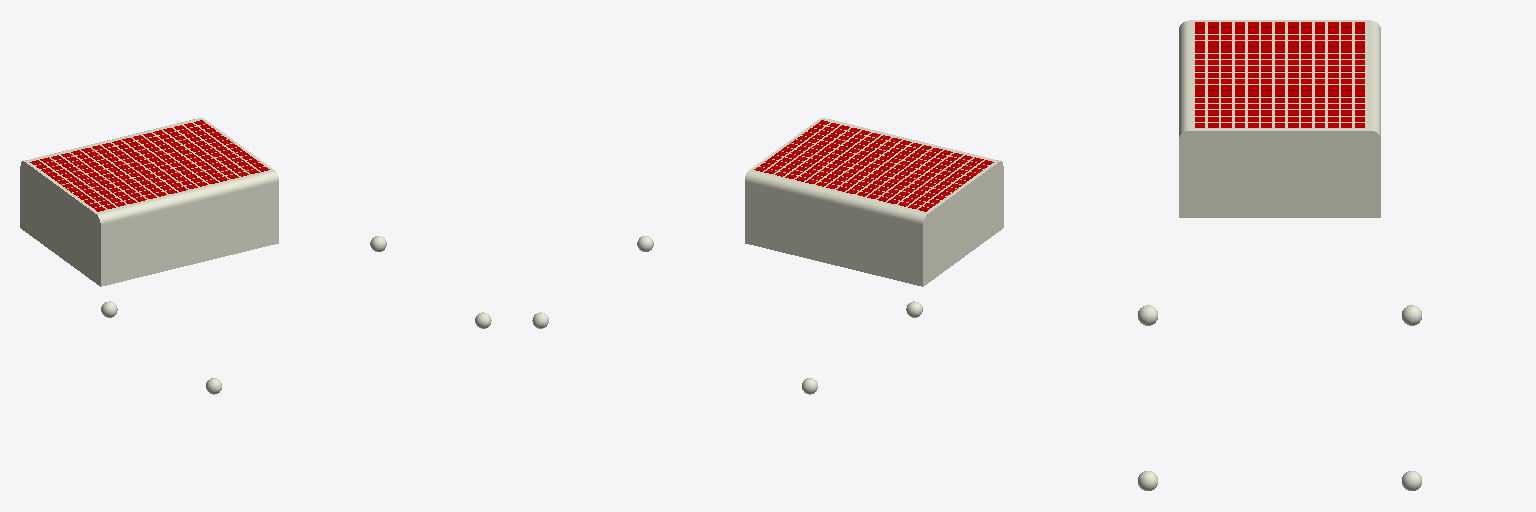
--- Render facts (derived) ---
The picture shows the robot from 3 angles, left to right: view 1: azimuth 30°, elevation 25°; view 2: azimuth 150°, elevation 25°; view 3: azimuth 270°, elevation 25°; orthographic projection.
Model locotouch with 254 links and 253 joints (12 revolute, 241 fixed), rooted at trunk, posed joints at zero except 4 at the middle of their limits (a_FR_calf_joint = -1.85, b_FL_calf_joint = -1.85, c_RR_calf_joint = -1.85, d_RL_calf_joint = -1.85).
Links seen in each view (by area): view 1: back_mid, back, right_cylinder; view 2: back_mid, back, left_cylinder; view 3: back_mid, back, left_cylinder, right_cylinder.
Link boxes in pixels (x1=…): back_mid: x1=20, y1=166, x2=278, y2=286; back: x1=25, y1=118, x2=274, y2=220; right_cylinder: x1=93, y1=171, x2=278, y2=227; back_mid: x1=745, y1=166, x2=1003, y2=286; back: x1=749, y1=118, x2=998, y2=220; left_cylinder: x1=745, y1=171, x2=930, y2=229; back_mid: x1=1179, y1=140, x2=1380, y2=217; back: x1=1189, y1=20, x2=1370, y2=139; left_cylinder: x1=1360, y1=21, x2=1380, y2=148; right_cylinder: x1=1179, y1=21, x2=1199, y2=147.
Bounding box of the posed robot: 0.5276 × 0.2735 × 0.2571 m (x, y, z).
0 mesh visuals loaded from 5 distinct referenced files (none loaded); not drawn: 13 (reference not matched to a file when rendering).

robot.urdf — locotouch:
<?xml version="1.0" ?>
<!-- =================================================================================== -->
<!-- |    This document was autogenerated by xacro from robot.xacro                    | -->
<!-- |    EDITING THIS FILE BY HAND IS NOT RECOMMENDED                                 | -->
<!-- =================================================================================== -->
<robot name="locotouch">
  <material name="black">
    <color rgba="0.0 0.0 0.0 1.0"/>
  </material>
  <material name="blue">
    <color rgba="0.0 0.0 0.8 1.0"/>
  </material>
  <material name="green">
    <color rgba="0.0 0.8 0.0 1.0"/>
  </material>
  <material name="grey">
    <color rgba="0.2 0.2 0.2 1.0"/>
  </material>
  <material name="silver">
    <color rgba="0.9137254901960784 0.9137254901960784 0.8470588235294118 1.0"/>
  </material>
  <material name="orange">
    <color rgba="1.0 0.4235294117647059 0.0392156862745098 1.0"/>
  </material>
  <material name="brown">
    <color rgba="0.8705882352941177 0.8117647058823529 0.7647058823529411 1.0"/>
  </material>
  <material name="red">
    <color rgba="0.8 0.0 0.0 1.0"/>
  </material>
  <material name="white">
    <color rgba="1.0 1.0 1.0 1.0"/>
  </material>

  <link name="trunk">
    <visual>
      <origin rpy="0 0 0" xyz="0 0 0"/>
      <geometry>
        <mesh filename="../meshes/trunk.stl" scale="1 1 1"/>
      </geometry>
      <material name="silver"/>
    </visual>
    <collision>
      <origin rpy="0 0 0" xyz="0 0 0"/>
      <geometry>
        <box size="0.256 0.1 0.114"/>
      </geometry>
    </collision>
    <inertial>
      <origin rpy="0 0 0" xyz="0.0223 0.002 -0.0005"/>
      <mass value="5.204"/>
      <inertia ixx="0.0168128557" ixy="-0.0002296769" ixz="-0.0002945293" iyy="0.063009565" iyz="-4.18731e-05" izz="0.0716547275"/>
    </inertial>
  </link>

  <joint name="a_FR_hip_joint" type="revolute">
    <origin rpy="0 0 0" xyz="0.1881 -0.04675 0"/>
    <parent link="trunk"/>
    <child link="a_FR_hip"/>
    <axis xyz="1 0 0"/>
    <dynamics damping="0.0" friction="0.0"/>
    <limit effort="23.7" lower="-0.863" upper="0.863" velocity="30.1"/>
  </joint>
  <joint name="a_FR_hip_rotor_joint" type="fixed">
    <origin rpy="0 0 0" xyz="0.11215 -0.04675 0"/>
    <parent link="trunk"/>
    <child link="a_FR_hip_rotor"/>
  </joint>
  <link name="a_FR_hip">
    <visual>
      <origin rpy="3.141592653589793 0 0" xyz="0 0 0"/>
      <geometry>
        <mesh filename="../meshes/hip.stl" scale="1 1 1"/>
      </geometry>
      <material name="silver"/>
    </visual>
    <collision>
      <origin rpy="1.5707963267948966 0 0" xyz="0 -0.08 0"/>
      <geometry>
        <cylinder length="0.04" radius="0.046"/>
      </geometry>
    </collision>
    <inertial>
      <origin rpy="0 0 0" xyz="-0.005657 0.008752 -0.000102"/>
      <mass value="0.591"/>
      <inertia ixx="0.000334008405" ixy="1.0826066e-05" ixz="1.290732e-06" iyy="0.000619101213" iyz="-1.643194e-06" izz="0.00040057614"/>
    </inertial>
  </link>
  <link name="a_FR_hip_rotor">
    <collision>
      <origin rpy="0 1.5707963267948966 0" xyz="0 0 0"/>
      <geometry>
        <cylinder length="0.02" radius="0.035"/>
      </geometry>
    </collision>
    <inertial>
      <origin rpy="0 0 0" xyz="0.0 0.0 0.0"/>
      <mass value="0.089"/>
      <inertia ixx="0.000111842" ixy="0.0" ixz="0.0" iyy="5.9647e-05" iyz="0.0" izz="5.9647e-05"/>
    </inertial>
  </link>
  <joint name="a_FR_thigh_joint" type="revolute">
    <origin rpy="0 0 0" xyz="0 -0.08 0"/>
    <parent link="a_FR_hip"/>
    <child link="a_FR_thigh"/>
    <axis xyz="0 1 0"/>
    <dynamics damping="0.0" friction="0.0"/>
    <limit effort="23.7" lower="-0.686" upper="4.501" velocity="30.1"/>
  </joint>
  <joint name="a_FR_thigh_rotor_joint" type="fixed">
    <origin rpy="0 0 0" xyz="0.0 0.00015 0"/>
    <parent link="a_FR_hip"/>
    <child link="a_FR_thigh_rotor"/>
  </joint>
  <link name="a_FR_thigh">
    <visual>
      <origin rpy="0 0 0" xyz="0 0 0"/>
      <geometry>
        <mesh filename="../meshes/thigh_mirror.stl" scale="1 1 1"/>
      </geometry>
      <material name="silver"/>
    </visual>
    <collision>
      <origin rpy="0 1.5707963267948966 0" xyz="0 0 -0.1065"/>
      <geometry>
        <box size="0.213 0.0245 0.034"/>
      </geometry>
    </collision>
    <inertial>
      <origin rpy="0 0 0" xyz="-0.003342 0.018054 -0.033451"/>
      <mass value="0.92"/>
      <inertia ixx="0.004431760472" ixy="-5.7496807e-05" ixz="-0.000218457134" iyy="0.004485671726" iyz="-0.000572001265" izz="0.000740309489"/>
    </inertial>
  </link>
  <link name="a_FR_thigh_rotor">
    <collision>
      <origin rpy="1.5707963267948966 0 0" xyz="0 0 0"/>
      <geometry>
        <cylinder length="0.02" radius="0.035"/>
      </geometry>
    </collision>
    <inertial>
      <origin rpy="0 0 0" xyz="0.0 0.0 0.0"/>
      <mass value="0.089"/>
      <inertia ixx="5.9647e-05" ixy="0.0" ixz="0.0" iyy="0.000111842" iyz="0.0" izz="5.9647e-05"/>
    </inertial>
  </link>
  <joint name="a_FR_calf_joint" type="revolute">
    <origin rpy="0 0 0" xyz="0 0 -0.213"/>
    <parent link="a_FR_thigh"/>
    <child link="a_FR_calf"/>
    <axis xyz="0 1 0"/>
    <dynamics damping="0.0" friction="0.0"/>
    <limit effort="35.55" lower="-2.818" upper="-0.888" velocity="20.06"/>
  </joint>
  <joint name="a_FR_calf_rotor_joint" type="fixed">
    <origin rpy="0 0 0" xyz="0.0 0.03235 0"/>
    <parent link="a_FR_thigh"/>
    <child link="a_FR_calf_rotor"/>
  </joint>
  <link name="a_FR_calf">
    <visual>
      <origin rpy="0 0 0" xyz="0 0 0"/>
      <geometry>
        <mesh filename="../meshes/calf.stl" scale="1 1 1"/>
      </geometry>
      <material name="silver"/>
    </visual>
    <collision>
      <origin rpy="0 1.5707963267948966 0" xyz="0 0 -0.1065"/>
      <geometry>
        <box size="0.213 0.016 0.016"/>
      </geometry>
    </collision>
    <inertial>
      <origin rpy="0 0 0" xyz="0.006197 0.001408 -0.116695"/>
      <mass value="0.135862"/>
      <inertia ixx="0.001088793059" ixy="-2.55679e-07" ixz="7.117814e-06" iyy="0.001100428748" iyz="2.077264e-06" izz="2.4787446e-05"/>
    </inertial>
  </link>
  <link name="a_FR_calf_rotor">
    <collision>
      <origin rpy="1.5707963267948966 0 0" xyz="0 0 0"/>
      <geometry>
        <cylinder length="0.02" radius="0.035"/>
      </geometry>
    </collision>
    <inertial>
      <origin rpy="0 0 0" xyz="0.0 0.0 0.0"/>
      <mass value="0.089"/>
      <inertia ixx="5.9647e-05" ixy="0.0" ixz="0.0" iyy="0.000111842" iyz="0.0" izz="5.9647e-05"/>
    </inertial>
  </link>
  <joint name="a_FR_foot_fixed" type="fixed" dont_collapse="true">
    <origin rpy="0 0 0" xyz="0 0 -0.213"/>
    <parent link="a_FR_calf"/>
    <child link="a_FR_foot"/>
  </joint>
  <link name="a_FR_foot">
    <visual>
      <origin rpy="0 0 0" xyz="0 0 0"/>
      <geometry>
        <sphere radius="0.01"/>
      </geometry>
      <material name="silver"/>
    </visual>
    <collision>
      <origin rpy="0 0 0" xyz="0 0 0"/>
      <geometry>
        <sphere radius="0.02"/>
      </geometry>
    </collision>
    <inertial>
      <mass value="0.06"/>
      <inertia ixx="9.600000000000001e-06" ixy="0.0" ixz="0.0" iyy="9.600000000000001e-06" iyz="0.0" izz="9.600000000000001e-06"/>
    </inertial>
  </link>

  <joint name="b_FL_hip_joint" type="revolute">
    <origin rpy="0 0 0" xyz="0.1881 0.04675 0"/>
    <parent link="trunk"/>
    <child link="b_FL_hip"/>
    <axis xyz="1 0 0"/>
    <dynamics damping="0.0" friction="0.0"/>
    <limit effort="23.7" lower="-0.863" upper="0.863" velocity="30.1"/>
  </joint>
  <joint name="b_FL_hip_rotor_joint" type="fixed">
    <origin rpy="0 0 0" xyz="0.11215 0.04675 0"/>
    <parent link="trunk"/>
    <child link="b_FL_hip_rotor"/>
  </joint>
  <link name="b_FL_hip">
    <visual>
      <origin rpy="0 0 0" xyz="0 0 0"/>
      <geometry>
        <mesh filename="../meshes/hip.stl" scale="1 1 1"/>
      </geometry>
      <material name="silver"/>
    </visual>
    <collision>
      <origin rpy="1.5707963267948966 0 0" xyz="0 0.08 0"/>
      <geometry>
        <cylinder length="0.04" radius="0.046"/>
      </geometry>
    </collision>
    <inertial>
      <origin rpy="0 0 0" xyz="-0.005657 -0.008752 -0.000102"/>
      <mass value="0.591"/>
      <inertia ixx="0.000334008405" ixy="-1.0826066e-05" ixz="1.290732e-06" iyy="0.000619101213" iyz="1.643194e-06" izz="0.00040057614"/>
    </inertial>
  </link>
  <link name="b_FL_hip_rotor">
    <collision>
      <origin rpy="0 1.5707963267948966 0" xyz="0 0 0"/>
      <geometry>
        <cylinder length="0.02" radius="0.035"/>
      </geometry>
    </collision>
    <inertial>
      <origin rpy="0 0 0" xyz="0.0 0.0 0.0"/>
      <mass value="0.089"/>
      <inertia ixx="0.000111842" ixy="0.0" ixz="0.0" iyy="5.9647e-05" iyz="0.0" izz="5.9647e-05"/>
    </inertial>
  </link>
  <joint name="b_FL_thigh_joint" type="revolute">
    <origin rpy="0 0 0" xyz="0 0.08 0"/>
    <parent link="b_FL_hip"/>
    <child link="b_FL_thigh"/>
    <axis xyz="0 1 0"/>
    <dynamics damping="0.0" friction="0.0"/>
    <limit effort="23.7" lower="-0.686" upper="4.501" velocity="30.1"/>
  </joint>
  <joint name="b_FL_thigh_rotor_joint" type="fixed">
    <origin rpy="0 0 0" xyz="0.0 -0.00015 0"/>
    <parent link="b_FL_hip"/>
    <child link="b_FL_thigh_rotor"/>
  </joint>
  <link name="b_FL_thigh">
    <visual>
      <origin rpy="0 0 0" xyz="0 0 0"/>
      <geometry>
        <mesh filename="../meshes/thigh.stl" scale="1 1 1"/>
      </geometry>
      <material name="silver"/>
    </visual>
    <collision>
      <origin rpy="0 1.5707963267948966 0" xyz="0 0 -0.1065"/>
      <geometry>
        <box size="0.213 0.0245 0.034"/>
      </geometry>
    </collision>
    <inertial>
      <origin rpy="0 0 0" xyz="-0.003342 -0.018054 -0.033451"/>
      <mass value="0.92"/>
      <inertia ixx="0.004431760472" ixy="5.7496807e-05" ixz="-0.000218457134" iyy="0.004485671726" iyz="0.000572001265" izz="0.000740309489"/>
    </inertial>
  </link>
  <link name="b_FL_thigh_rotor">
    <collision>
      <origin rpy="1.5707963267948966 0 0" xyz="0 0 0"/>
      <geometry>
        <cylinder length="0.02" radius="0.035"/>
      </geometry>
    </collision>
    <inertial>
      <origin rpy="0 0 0" xyz="0.0 0.0 0.0"/>
      <mass value="0.089"/>
      <inertia ixx="5.9647e-05" ixy="0.0" ixz="0.0" iyy="0.000111842" iyz="0.0" izz="5.9647e-05"/>
    </inertial>
  </link>
  <joint name="b_FL_calf_joint" type="revolute">
    <origin rpy="0 0 0" xyz="0 0 -0.213"/>
    <parent link="b_FL_thigh"/>
    <child link="b_FL_calf"/>
    <axis xyz="0 1 0"/>
    <dynamics damping="0.0" friction="0.0"/>
    <limit effort="35.55" lower="-2.818" upper="-0.888" velocity="20.06"/>
  </joint>
  <joint name="b_FL_calf_rotor_joint" type="fixed">
    <origin rpy="0 0 0" xyz="0.0 -0.03235 0"/>
    <parent link="b_FL_thigh"/>
    <child link="b_FL_calf_rotor"/>
  </joint>
  <link name="b_FL_calf">
    <visual>
      <origin rpy="0 0 0" xyz="0 0 0"/>
      <geometry>
        <mesh filename="../meshes/calf.stl" scale="1 1 1"/>
      </geometry>
      <material name="silver"/>
    </visual>
    <collision>
      <origin rpy="0 1.5707963267948966 0" xyz="0 0 -0.1065"/>
      <geometry>
        <box size="0.213 0.016 0.016"/>
      </geometry>
    </collision>
    <inertial>
      <origin rpy="0 0 0" xyz="0.006197 0.001408 -0.116695"/>
      <mass value="0.135862"/>
      <inertia ixx="0.001088793059" ixy="-2.55679e-07" ixz="7.117814e-06" iyy="0.001100428748" iyz="2.077264e-06" izz="2.4787446e-05"/>
    </inertial>
  </link>
  <link name="b_FL_calf_rotor">
    <collision>
      <origin rpy="1.5707963267948966 0 0" xyz="0 0 0"/>
      <geometry>
        <cylinder length="0.02" radius="0.035"/>
      </geometry>
    </collision>
    <inertial>
      <origin rpy="0 0 0" xyz="0.0 0.0 0.0"/>
      <mass value="0.089"/>
      <inertia ixx="5.9647e-05" ixy="0.0" ixz="0.0" iyy="0.000111842" iyz="0.0" izz="5.9647e-05"/>
    </inertial>
  </link>
  <joint name="b_FL_foot_fixed" type="fixed" dont_collapse="true">
    <origin rpy="0 0 0" xyz="0 0 -0.213"/>
    <parent link="b_FL_calf"/>
    <child link="b_FL_foot"/>
  </joint>
  <link name="b_FL_foot">
    <visual>
      <origin rpy="0 0 0" xyz="0 0 0"/>
      <geometry>
        <sphere radius="0.01"/>
      </geometry>
      <material name="silver"/>
    </visual>
    <collision>
      <origin rpy="0 0 0" xyz="0 0 0"/>
      <geometry>
        <sphere radius="0.02"/>
      </geometry>
    </collision>
    <inertial>
      <mass value="0.06"/>
      <inertia ixx="9.600000000000001e-06" ixy="0.0" ixz="0.0" iyy="9.600000000000001e-06" iyz="0.0" izz="9.600000000000001e-06"/>
    </inertial>
  </link>

  <joint name="c_RR_hip_joint" type="revolute">
    <origin rpy="0 0 0" xyz="-0.1881 -0.04675 0"/>
    <parent link="trunk"/>
    <child link="c_RR_hip"/>
    <axis xyz="1 0 0"/>
    <dynamics damping="0.0" friction="0.0"/>
    <limit effort="23.7" lower="-0.863" upper="0.863" velocity="30.1"/>
  </joint>
  <joint name="c_RR_hip_rotor_joint" type="fixed">
    <origin rpy="0 0 0" xyz="-0.11215 -0.04675 0"/>
    <parent link="trunk"/>
    <child link="c_RR_hip_rotor"/>
  </joint>
  <link name="c_RR_hip">
    <visual>
      <origin rpy="3.141592653589793 3.141592653589793 0" xyz="0 0 0"/>
      <geometry>
        <mesh filename="../meshes/hip.stl" scale="1 1 1"/>
      </geometry>
      <material name="silver"/>
    </visual>
    <collision>
      <origin rpy="1.5707963267948966 0 0" xyz="0 -0.08 0"/>
      <geometry>
        <cylinder length="0.04" radius="0.046"/>
      </geometry>
    </collision>
    <inertial>
      <origin rpy="0 0 0" xyz="0.005657 0.008752 -0.000102"/>
      <mass value="0.591"/>
      <inertia ixx="0.000334008405" ixy="-1.0826066e-05" ixz="-1.290732e-06" iyy="0.000619101213" iyz="-1.643194e-06" izz="0.00040057614"/>
    </inertial>
  </link>
  <link name="c_RR_hip_rotor">
    <collision>
      <origin rpy="0 1.5707963267948966 0" xyz="0 0 0"/>
      <geometry>
        <cylinder length="0.02" radius="0.035"/>
      </geometry>
    </collision>
    <inertial>
      <origin rpy="0 0 0" xyz="0.0 0.0 0.0"/>
      <mass value="0.089"/>
      <inertia ixx="0.000111842" ixy="0.0" ixz="0.0" iyy="5.9647e-05" iyz="0.0" izz="5.9647e-05"/>
    </inertial>
  </link>
  <joint name="c_RR_thigh_joint" type="revolute">
    <origin rpy="0 0 0" xyz="0 -0.08 0"/>
    <parent link="c_RR_hip"/>
    <child link="c_RR_thigh"/>
    <axis xyz="0 1 0"/>
    <dynamics damping="0.0" friction="0.0"/>
    <limit effort="23.7" lower="-0.686" upper="4.501" velocity="30.1"/>
  </joint>
  <joint name="c_RR_thigh_rotor_joint" type="fixed">
    <origin rpy="0 0 0" xyz="0.0 0.00015 0"/>
    <parent link="c_RR_hip"/>
    <child link="c_RR_thigh_rotor"/>
  </joint>
  <link name="c_RR_thigh">
    <visual>
      <origin rpy="0 0 0" xyz="0 0 0"/>
      <geometry>
        <mesh filename="../meshes/thigh_mirror.stl" scale="1 1 1"/>
      </geometry>
      <material name="silver"/>
    </visual>
    <collision>
      <origin rpy="0 1.5707963267948966 0" xyz="0 0 -0.1065"/>
      <geometry>
        <box size="0.213 0.0245 0.034"/>
      </geometry>
    </collision>
    <inertial>
      <origin rpy="0 0 0" xyz="-0.003342 0.018054 -0.033451"/>
      <mass value="0.92"/>
      <inertia ixx="0.004431760472" ixy="-5.7496807e-05" ixz="-0.000218457134" iyy="0.004485671726" iyz="-0.000572001265" izz="0.000740309489"/>
    </inertial>
  </link>
  <link name="c_RR_thigh_rotor">
    <collision>
      <origin rpy="1.5707963267948966 0 0" xyz="0 0 0"/>
      <geometry>
        <cylinder length="0.02" radius="0.035"/>
      </geometry>
    </collision>
    <inertial>
      <origin rpy="0 0 0" xyz="0.0 0.0 0.0"/>
      <mass value="0.089"/>
      <inertia ixx="5.9647e-05" ixy="0.0" ixz="0.0" iyy="0.000111842" iyz="0.0" izz="5.9647e-05"/>
    </inertial>
  </link>
  <joint name="c_RR_calf_joint" type="revolute">
    <origin rpy="0 0 0" xyz="0 0 -0.213"/>
    <parent link="c_RR_thigh"/>
    <child link="c_RR_calf"/>
    <axis xyz="0 1 0"/>
    <dynamics damping="0.0" friction="0.0"/>
    <limit effort="35.55" lower="-2.818" upper="-0.888" velocity="20.06"/>
  </joint>
  <joint name="c_RR_calf_rotor_joint" type="fixed">
    <origin rpy="0 0 0" xyz="0.0 0.03235 0"/>
    <parent link="c_RR_thigh"/>
    <child link="c_RR_calf_rotor"/>
  </joint>
  <link name="c_RR_calf">
    <visual>
      <origin rpy="0 0 0" xyz="0 0 0"/>
      <geometry>
        <mesh filename="../meshes/calf.stl" scale="1 1 1"/>
      </geometry>
      <material name="silver"/>
    </visual>
    <collision>
      <origin rpy="0 1.5707963267948966 0" xyz="0 0 -0.1065"/>
      <geometry>
        <box size="0.213 0.016 0.016"/>
      </geometry>
    </collision>
    <inertial>
      <origin rpy="0 0 0" xyz="0.006197 0.001408 -0.116695"/>
      <mass value="0.135862"/>
      <inertia ixx="0.001088793059" ixy="-2.55679e-07" ixz="7.117814e-06" iyy="0.001100428748" iyz="2.077264e-06" izz="2.4787446e-05"/>
    </inertial>
  </link>
  <link name="c_RR_calf_rotor">
    <collision>
      <origin rpy="1.5707963267948966 0 0" xyz="0 0 0"/>
      <geometry>
        <cylinder length="0.02" radius="0.035"/>
      </geometry>
    </collision>
    <inertial>
      <origin rpy="0 0 0" xyz="0.0 0.0 0.0"/>
      <mass value="0.089"/>
      <inertia ixx="5.9647e-05" ixy="0.0" ixz="0.0" iyy="0.000111842" iyz="0.0" izz="5.9647e-05"/>
    </inertial>
  </link>
  <joint name="c_RR_foot_fixed" type="fixed" dont_collapse="true">
    <origin rpy="0 0 0" xyz="0 0 -0.213"/>
    <parent link="c_RR_calf"/>
    <child link="c_RR_foot"/>
  </joint>
  <link name="c_RR_foot">
    <visual>
      <origin rpy="0 0 0" xyz="0 0 0"/>
      <geometry>
        <sphere radius="0.01"/>
      </geometry>
      <material name="silver"/>
    </visual>
    <collision>
      <origin rpy="0 0 0" xyz="0 0 0"/>
      <geometry>
        <sphere radius="0.02"/>
      </geometry>
    </collision>
    <inertial>
      <mass value="0.06"/>
      <inertia ixx="9.600000000000001e-06" ixy="0.0" ixz="0.0" iyy="9.600000000000001e-06" iyz="0.0" izz="9.600000000000001e-06"/>
    </inertial>
  </link>

  <joint name="d_RL_hip_joint" type="revolute">
    <origin rpy="0 0 0" xyz="-0.1881 0.04675 0"/>
    <parent link="trunk"/>
    <child link="d_RL_hip"/>
    <axis xyz="1 0 0"/>
    <dynamics damping="0.0" friction="0.0"/>
    <limit effort="23.7" lower="-0.863" upper="0.863" velocity="30.1"/>
  </joint>
  <joint name="d_RL_hip_rotor_joint" type="fixed">
    <origin rpy="0 0 0" xyz="-0.11215 0.04675 0"/>
    <parent link="trunk"/>
    <child link="d_RL_hip_rotor"/>
  </joint>
  <link name="d_RL_hip">
    <visual>
      <origin rpy="0 3.141592653589793 0" xyz="0 0 0"/>
      <geometry>
        <mesh filename="../meshes/hip.stl" scale="1 1 1"/>
      </geometry>
      <material name="silver"/>
    </visual>
    <collision>
      <origin rpy="1.5707963267948966 0 0" xyz="0 0.08 0"/>
      <geometry>
        <cylinder length="0.04" radius="0.046"/>
      </geometry>
    </collision>
    <inertial>
      <origin rpy="0 0 0" xyz="0.005657 -0.008752 -0.000102"/>
      <mass value="0.591"/>
      <inertia ixx="0.000334008405" ixy="1.0826066e-05" ixz="-1.290732e-06" iyy="0.000619101213" iyz="1.643194e-06" izz="0.00040057614"/>
    </inertial>
  </link>
  <link name="d_RL_hip_rotor">
    <collision>
      <origin rpy="0 1.5707963267948966 0" xyz="0 0 0"/>
      <geometry>
        <cylinder length="0.02" radius="0.035"/>
      </geometry>
    </collision>
    <inertial>
      <origin rpy="0 0 0" xyz="0.0 0.0 0.0"/>
      <mass value="0.089"/>
      <inertia ixx="0.000111842" ixy="0.0" ixz="0.0" iyy="5.9647e-05" iyz="0.0" izz="5.9647e-05"/>
    </inertial>
  </link>
  <joint name="d_RL_thigh_joint" type="revolute">
    <origin rpy="0 0 0" xyz="0 0.08 0"/>
    <parent link="d_RL_hip"/>
    <child link="d_RL_thigh"/>
    <axis xyz="0 1 0"/>
    <dynamics damping="0.0" friction="0.0"/>
    <limit effort="23.7" lower="-0.686" upper="4.501" velocity="30.1"/>
  </joint>
  <joint name="d_RL_thigh_rotor_joint" type="fixed">
    <origin rpy="0 0 0" xyz="0.0 -0.00015 0"/>
    <parent link="d_RL_hip"/>
    <child link="d_RL_thigh_rotor"/>
  </joint>
  <link name="d_RL_thigh">
    <visual>
      <origin rpy="0 0 0" xyz="0 0 0"/>
      <geometry>
        <mesh filename="../meshes/thigh.stl" scale="1 1 1"/>
      </geometry>
      <material name="silver"/>
    </visual>
    <collision>
      <origin rpy="0 1.5707963267948966 0" xyz="0 0 -0.1065"/>
      <geometry>
        <box size="0.213 0.0245 0.034"/>
      </geometry>
    </collision>
    <inertial>
      <origin rpy="0 0 0" xyz="-0.003342 -0.018054 -0.033451"/>
      <mass value="0.92"/>
      <inertia ixx="0.004431760472" ixy="5.7496807e-05" ixz="-0.000218457134" iyy="0.004485671726" iyz="0.000572001265" izz="0.000740309489"/>
    </inertial>
  </link>
  <link name="d_RL_thigh_rotor">
    <collision>
      <origin rpy="1.5707963267948966 0 0" xyz="0 0 0"/>
      <geometry>
        <cylinder length="0.02" radius="0.035"/>
      </geometry>
    </collision>
    <inertial>
      <origin rpy="0 0 0" xyz="0.0 0.0 0.0"/>
      <mass value="0.089"/>
      <inertia ixx="5.9647e-05" ixy="0.0" ixz="0.0" iyy="0.000111842" iyz="0.0" izz="5.9647e-05"/>
    </inertial>
  </link>
  <joint name="d_RL_calf_joint" type="revolute">
    <origin rpy="0 0 0" xyz="0 0 -0.213"/>
    <parent link="d_RL_thigh"/>
    <child link="d_RL_calf"/>
    <axis xyz="0 1 0"/>
    <dynamics damping="0.0" friction="0.0"/>
    <limit effort="35.55" lower="-2.818" upper="-0.888" velocity="20.06"/>
  </joint>
  <joint name="d_RL_calf_rotor_joint" type="fixed">
    <origin rpy="0 0 0" xyz="0.0 -0.03235 0"/>
    <parent link="d_RL_thigh"/>
    <child link="d_RL_calf_rotor"/>
  </joint>
  <link name="d_RL_calf">
    <visual>
      <origin rpy="0 0 0" xyz="0 0 0"/>
      <geometry>
        <mesh filename="../meshes/calf.stl" scale="1 1 1"/>
      </geometry>
      <material name="silver"/>
    </visual>
    <collision>
      <origin rpy="0 1.5707963267948966 0" xyz="0 0 -0.1065"/>
      <geometry>
        <box size="0.213 0.016 0.016"/>
      </geometry>
    </collision>
    <inertial>
      <origin rpy="0 0 0" xyz="0.006197 0.001408 -0.116695"/>
      <mass value="0.135862"/>
      <inertia ixx="0.001088793059" ixy="-2.55679e-07" ixz="7.117814e-06" iyy="0.001100428748" iyz="2.077264e-06" izz="2.4787446e-05"/>
    </inertial>
  </link>
  <link name="d_RL_calf_rotor">
    <collision>
      <origin rpy="1.5707963267948966 0 0" xyz="0 0 0"/>
      <geometry>
        <cylinder length="0.02" radius="0.035"/>
      </geometry>
    </collision>
    <inertial>
      <origin rpy="0 0 0" xyz="0.0 0.0 0.0"/>
      <mass value="0.089"/>
      <inertia ixx="5.9647e-05" ixy="0.0" ixz="0.0" iyy="0.000111842" iyz="0.0" izz="5.9647e-05"/>
    </inertial>
  </link>
  <joint name="d_RL_foot_fixed" type="fixed" dont_collapse="true">
    <origin rpy="0 0 0" xyz="0 0 -0.213"/>
    <parent link="d_RL_calf"/>
    <child link="d_RL_foot"/>
  </joint>
  <link name="d_RL_foot">
    <visual>
      <origin rpy="0 0 0" xyz="0 0 0"/>
      <geometry>
        <sphere radius="0.01"/>
      </geometry>
      <material name="silver"/>
    </visual>
    <collision>
      <origin rpy="0 0 0" xyz="0 0 0"/>
      <geometry>
        <sphere radius="0.02"/>
      </geometry>
    </collision>
    <inertial>
      <mass value="0.06"/>
      <inertia ixx="9.600000000000001e-06" ixy="0.0" ixz="0.0" iyy="9.600000000000001e-06" iyz="0.0" izz="9.600000000000001e-06"/>
    </inertial>
  </link>


  <link name="back">
    <visual>
      <origin rpy="0 0 0" xyz="0 0 0"/>
      <geometry>
        <box size="0.25 0.174 0.01"/>
      </geometry>
      <material name="silver"/>
    </visual>
    <collision>
      <origin rpy="0 0 0" xyz="0 0 0"/>
      <geometry>
        <box size="0.25 0.174 0.01"/>
      </geometry>
    </collision>
    <inertial>
      <origin rpy="0 0 0" xyz="0.0 0.0 0.0"/>
      <mass value="0.4"/>
      <inertia ixx="0.0001" ixy="0.0001" ixz="0.0001" iyy="0.0e-05" iyz="0.0e-05" izz="0.0e-05"/>
    </inertial>
  </link>
  <joint name="back_joint" type="fixed">
    <origin rpy="0 0 0" xyz="0 0 0.088"/>
    <parent link="trunk"/>
    <child link="back"/>
  </joint>

  <link name="back_mid">
    <visual>
      <origin rpy="0 0 0" xyz="0 0 0"/>
      <geometry>
        <box size="0.25 0.194 0.083"/>
      </geometry>
      <material name="silver"/>
    </visual>
    <collision>
      <origin rpy="0 0 0" xyz="0 0 0"/>
      <geometry>
        <box size="0.25 0.194 0.083"/>
      </geometry>
    </collision>
    <inertial>
      <origin rpy="0 0 0" xyz="0.0 0.0 0.01"/>
      <mass value="0.1"/>
      <inertia ixx="0.0001" ixy="0.0001" ixz="0.0001" iyy="0.0e-05" iyz="0.0e-05" izz="0.0e-05"/>
    </inertial>
  </link>
  <joint name="back_mid_joint" type="fixed">
    <origin rpy="0 0 0" xyz="0 0 0.0415"/>
    <parent link="trunk"/>
    <child link="back_mid"/>
  </joint>

  <link name="left_cylinder">
    <visual>
      <origin rpy="0 0 0" xyz="0 0 0"/>
      <geometry>
        <cylinder length="0.25" radius="0.01"/>
      </geometry>
      <material name="silver"/>
    </visual>
    <collision>
      <origin rpy="0 0 0" xyz="0 0 0"/>
      <geometry>
        <cylinder length="0.25" radius="0.01"/>
      </geometry>
    </collision>
  </link>
  <joint name="left_cylinder_joint" type="fixed">
    <origin rpy="0 1.5707963267948966 0" xyz="0 0.087 0.083"/>
    <parent link="trunk"/>
    <child link="left_cylinder"/>
  </joint>

  <link name="right_cylinder">
    <visual>
      <origin rpy="0 0 0" xyz="0 0 0"/>
      <geometry>
        <cylinder length="0.25" radius="0.01"/>
      </geometry>
      <material name="silver"/>
    </visual>
    <collision>
      <origin rpy="0 0 0" xyz="0 0 0"/>
      <geometry>
        <cylinder length="0.25" radius="0.01"/>
      </geometry>
    </collision>
  </link>
  <joint name="right_cylinder_joint" type="fixed">
    <origin rpy="0 1.5707963267948966 0" xyz="0 -0.087 0.083"/>
    <parent link="trunk"/>
    <child link="right_cylinder"/>
  </joint>

  <link name="sensor_01_01">
    <inertial>
      <origin xyz="0 -1.6653E-16 -5E-05" rpy="0 0 0" />
      <mass value="9.18E-07" />
      <inertia ixx="6.8927E-13" ixy="5.5033E-28" ixz="2.4805E-28" iyy="6.8927E-13" iyz="-3.5387E-24" izz="1.377E-12" />
    </inertial>
    <visual>
      <origin rpy="0 0 0" xyz="0 0 0"/>
      <geometry>
        <box size="0.0113 0.0105 0.001"/>
      </geometry>
      <material name="red"/>
    </visual>
    <collision>
      <origin rpy="0 0 0" xyz="0 0 0"/>
      <geometry>
        <box size="0.0183 0.0175 0.001"/>
      </geometry>
    </collision>
  </link>
  
<joint name="sensor_01_01_fixed" type="fixed" dont_collapse="true">
    <origin xyz="0.1144 0.0768 0.093" rpy="0 0 0" />
    <parent link="trunk" />
    <child link="sensor_01_01" />
    <axis xyz="0 0 0" />
  </joint>


<link name="sensor_01_02">
    <inertial>
      <origin xyz="0 -1.6653E-16 -5E-05" rpy="0 0 0" />
      <mass value="9.18E-07" />
      <inertia ixx="6.8927E-13" ixy="5.5033E-28" ixz="2.4805E-28" iyy="6.8927E-13" iyz="-3.5387E-24" izz="1.377E-12" />
    </inertial>
    <visual>
      <origin rpy="0 0 0" xyz="0 0 0"/>
      <geometry>
        <box size="0.0113 0.0105 0.001"/>
      </geometry>
      <material name="red"/>
    </visual>
    <collision>
      <origin rpy="0 0 0" xyz="0 0 0"/>
      <geometry>
        <box size="0.0183 0.0175 0.001"/>
      </geometry>
    </collision>
  </link>
  
<joint name="sensor_01_02_fixed" type="fixed" dont_collapse="true">
    <origin xyz="0.1144 0.064 0.093" rpy="0 0 0" />
    <parent link="trunk" />
    <child link="sensor_01_02" />
    <axis xyz="0 0 0" />
  </joint>


<link name="sensor_01_03">
    <inertial>
      <origin xyz="0 -1.6653E-16 -5E-05" rpy="0 0 0" />
      <mass value="9.18E-07" />
      <inertia ixx="6.8927E-13" ixy="5.5033E-28" ixz="2.4805E-28" iyy="6.8927E-13" iyz="-3.5387E-24" izz="1.377E-12" />
    </inertial>
    <visual>
      <origin rpy="0 0 0" xyz="0 0 0"/>
      <geometry>
        <box size="0.0113 0.0105 0.001"/>
      </geometry>
      <material name="red"/>
    </visual>
    <collision>
      <origin rpy="0 0 0" xyz="0 0 0"/>
      <geometry>
        <box size="0.0183 0.0175 0.001"/>
      </geometry>
    </collision>
  </link>
  
<joint name="sensor_01_03_fixed" type="fixed" dont_collapse="true">
    <origin xyz="0.1144 0.0512 0.093" rpy="0 0 0" />
    <parent link="trunk" />
    <child link="sensor_01_03" />
    <axis xyz="0 0 0" />
  </joint>


<link name="sensor_01_04">
    <inertial>
      <origin xyz="0 -1.6653E-16 -5E-05" rpy="0 0 0" />
      <mass value="9.18E-07" />
      <inertia ixx="6.8927E-13" ixy="5.5033E-28" ixz="2.4805E-28" iyy="6.8927E-13" iyz="-3.5387E-24" izz="1.377E-12" />
    </inertial>
    <visual>
      <origin rpy="0 0 0" xyz="0 0 0"/>
      <geometry>
        <box size="0.0113 0.0105 0.001"/>
      </geometry>
      <material name="red"/>
    </visual>
    <collision>
      <origin rpy="0 0 0" xyz="0 0 0"/>
      <geometry>
        <box size="0.0183 0.0175 0.001"/>
      </geometry>
    </collision>
  </link>
  
<joint name="sensor_01_04_fixed" type="fixed" dont_collapse="true">
    <origin xyz="0.1144 0.0384 0.093" rpy="0 0 0" />
    <parent link="trunk" />
    <child link="sensor_01_04" />
    <axis xyz="0 0 0" />
  </joint>


<link name="sensor_01_05">
    <inertial>
      <origin xyz="0 -1.6653E-16 -5E-05" rpy="0 0 0" />
      <mass value="9.18E-07" />
      <inertia ixx="6.8927E-13" ixy="5.5033E-28" ixz="2.4805E-28" iyy="6.8927E-13" iyz="-3.5387E-24" izz="1.377E-12" />
    </inertial>
    <visual>
      <origin rpy="0 0 0" xyz="0 0 0"/>
      <geometry>
        <box size="0.0113 0.0105 0.001"/>
      </geometry>
      <material name="red"/>
    </visual>
    <collision>
      <origin rpy="0 0 0" xyz="0 0 0"/>
      <geometry>
        <box size="0.0183 0.0175 0.001"/>
      </geometry>
    </collision>
  </link>
  
<joint name="sensor_01_05_fixed" type="fixed" dont_collapse="true">
    <origin xyz="0.1144 0.0256 0.093" rpy="0 0 0" />
    <parent link="trunk" />
    <child link="sensor_01_05" />
    <axis xyz="0 0 0" />
  </joint>


<link name="sensor_01_06">
    <inertial>
      <origin xyz="0 -1.6653E-16 -5E-05" rpy="0 0 0" />
      <mass value="9.18E-07" />
      <inertia ixx="6.8927E-13" ixy="5.5033E-28" ixz="2.4805E-28" iyy="6.8927E-13" iyz="-3.5387E-24" izz="1.377E-12" />
    </inertial>
    <visual>
      <origin rpy="0 0 0" xyz="0 0 0"/>
      <geometry>
        <box size="0.0113 0.0105 0.001"/>
      </geometry>
      <material name="red"/>
    </visual>
    <collision>
      <origin rpy="0 0 0" xyz="0 0 0"/>
      <geometry>
        <box size="0.0183 0.0175 0.001"/>
      </geometry>
    </collision>
  </link>
  
<joint name="sensor_01_06_fixed" type="fixed" dont_collapse="true">
    <origin xyz="0.1144 0.0128 0.093" rpy="0 0 0" />
    <parent link="trunk" />
    <child link="sensor_01_06" />
    <axis xyz="0 0 0" />
  </joint>


<link name="sensor_01_07">
    <inertial>
      <origin xyz="0 -1.6653E-16 -5E-05" rpy="0 0 0" />
      <mass value="9.18E-07" />
      <inertia ixx="6.8927E-13" ixy="5.5033E-28" ixz="2.4805E-28" iyy="6.8927E-13" iyz="-3.5387E-24" izz="1.377E-12" />
    </inertial>
    <visual>
      <origin rpy="0 0 0" xyz="0 0 0"/>
      <geometry>
        <box size="0.0113 0.0105 0.001"/>
      </geometry>
      <material name="red"/>
    </visual>
    <collision>
      <origin rpy="0 0 0" xyz="0 0 0"/>
      <geometry>
        <box size="0.0183 0.0175 0.001"/>
      </geometry>
    </collision>
  </link>
  
<joint name="sensor_01_07_fixed" type="fixed" dont_collapse="true">
    <origin xyz="0.1144 -0.0 0.093" rpy="0 0 0" />
    <parent link="trunk" />
    <child link="sensor_01_07" />
    <axis xyz="0 0 0" />
  </joint>


<link name="sensor_01_08">
    <inertial>
      <origin xyz="0 -1.6653E-16 -5E-05" rpy="0 0 0" />
      <mass value="9.18E-07" />
      <inertia ixx="6.8927E-13" ixy="5.5033E-28" ixz="2.4805E-28" iyy="6.8927E-13" iyz="-3.5387E-24" izz="1.377E-12" />
    </inertial>
    <visual>
      <origin rpy="0 0 0" xyz="0 0 0"/>
      <geometry>
        <box size="0.0113 0.0105 0.001"/>
      </geometry>
      <material name="red"/>
    </visual>
    <collision>
      <origin rpy="0 0 0" xyz="0 0 0"/>
      <geometry>
        <box size="0.0183 0.0175 0.001"/>
      </geometry>
    </collision>
  </link>
  
<joint name="sensor_01_08_fixed" type="fixed" dont_collapse="true">
    <origin xyz="0.1144 -0.0128 0.093" rpy="0 0 0" />
    <parent link="trunk" />
    <child link="sensor_01_08" />
    <axis xyz="0 0 0" />
  </joint>


<link name="sensor_01_09">
    <inertial>
      <origin xyz="0 -1.6653E-16 -5E-05" rpy="0 0 0" />
      <mass value="9.18E-07" />
      <inertia ixx="6.8927E-13" ixy="5.5033E-28" ixz="2.4805E-28" iyy="6.8927E-13" iyz="-3.5387E-24" izz="1.377E-12" />
    </inertial>
    <visual>
      <origin rpy="0 0 0" xyz="0 0 0"/>
      <geometry>
        <box size="0.0113 0.0105 0.001"/>
      </geometry>
      <material name="red"/>
    </visual>
    <collision>
      <origin rpy="0 0 0" xyz="0 0 0"/>
      <geometry>
        <box size="0.0183 0.0175 0.001"/>
      </geometry>
    </collision>
  </link>
  
<joint name="sensor_01_09_fixed" type="fixed" dont_collapse="true">
    <origin xyz="0.1144 -0.0256 0.093" rpy="0 0 0" />
    <parent link="trunk" />
    <child link="sensor_01_09" />
    <axis xyz="0 0 0" />
  </joint>


<link name="sensor_01_10">
    <inertial>
      <origin xyz="0 -1.6653E-16 -5E-05" rpy="0 0 0" />
      <mass value="9.18E-07" />
      <inertia ixx="6.8927E-13" ixy="5.5033E-28" ixz="2.4805E-28" iyy="6.8927E-13" iyz="-3.5387E-24" izz="1.377E-12" />
    </inertial>
    <visual>
      <origin rpy="0 0 0" xyz="0 0 0"/>
      <geometry>
        <box size="0.0113 0.0105 0.001"/>
      </geometry>
      <material name="red"/>
    </visual>
    <collision>
      <origin rpy="0 0 0" xyz="0 0 0"/>
      <geometry>
        <box size="0.0183 0.0175 0.001"/>
      </geometry>
    </collision>
  </link>
  
<joint name="sensor_01_10_fixed" type="fixed" dont_collapse="true">
    <origin xyz="0.1144 -0.0384 0.093" rpy="0 0 0" />
    <parent link="trunk" />
    <child link="sensor_01_10" />
    <axis xyz="0 0 0" />
  </joint>


<link name="sensor_01_11">
    <inertial>
      <origin xyz="0 -1.6653E-16 -5E-05" rpy="0 0 0" />
      <mass value="9.18E-07" />
      <inertia ixx="6.8927E-13" ixy="5.5033E-28" ixz="2.4805E-28" iyy="6.8927E-13" iyz="-3.5387E-24" izz="1.377E-12" />
    </inertial>
    <visual>
      <origin rpy="0 0 0" xyz="0 0 0"/>
      <geometry>
        <box size="0.0113 0.0105 0.001"/>
      </geometry>
      <material name="red"/>
    </visual>
    <collision>
      <origin rpy="0 0 0" xyz="0 0 0"/>
      <geometry>
        <box size="0.0183 0.0175 0.001"/>
      </geometry>
    </collision>
  </link>
  
<joint name="sensor_01_11_fixed" type="fixed" dont_collapse="true">
    <origin xyz="0.1144 -0.0512 0.093" rpy="0 0 0" />
    <parent link="trunk" />
    <child link="sensor_01_11" />
    <axis xyz="0 0 0" />
  </joint>


<link name="sensor_01_12">
    <inertial>
      <origin xyz="0 -1.6653E-16 -5E-05" rpy="0 0 0" />
      <mass value="9.18E-07" />
      <inertia ixx="6.8927E-13" ixy="5.5033E-28" ixz="2.4805E-28" iyy="6.8927E-13" iyz="-3.5387E-24" izz="1.377E-12" />
    </inertial>
    <visual>
      <origin rpy="0 0 0" xyz="0 0 0"/>
      <geometry>
        <box size="0.0113 0.0105 0.001"/>
      </geometry>
      <material name="red"/>
    </visual>
    <collision>
      <origin rpy="0 0 0" xyz="0 0 0"/>
      <geometry>
        <box size="0.0183 0.0175 0.001"/>
      </geometry>
    </collision>
  </link>
  
<joint name="sensor_01_12_fixed" type="fixed" dont_collapse="true">
    <origin xyz="0.1144 -0.064 0.093" rpy="0 0 0" />
    <parent link="trunk" />
    <child link="sensor_01_12" />
    <axis xyz="0 0 0" />
  </joint>


<link name="sensor_01_13">
    <inertial>
      <origin xyz="0 -1.6653E-16 -5E-05" rpy="0 0 0" />
      <mass value="9.18E-07" />
      <inertia ixx="6.8927E-13" ixy="5.5033E-28" ixz="2.4805E-28" iyy="6.8927E-13" iyz="-3.5387E-24" izz="1.377E-12" />
    </inertial>
    <visual>
      <origin rpy="0 0 0" xyz="0 0 0"/>
      <geometry>
        <box size="0.0113 0.0105 0.001"/>
      </geometry>
      <material name="red"/>
    </visual>
    <collision>
      <origin rpy="0 0 0" xyz="0 0 0"/>
      <geometry>
        <box size="0.0183 0.0175 0.001"/>
      </geometry>
    </collision>
  </link>
  
<joint name="sensor_01_13_fixed" type="fixed" dont_collapse="true">
    <origin xyz="0.1144 -0.0768 0.093" rpy="0 0 0" />
    <parent link="trunk" />
    <child link="sensor_01_13" />
    <axis xyz="0 0 0" />
  </joint>


<link name="sensor_02_01">
    <inertial>
      <origin xyz="0 -1.6653E-16 -5E-05" rpy="0 0 0" />
      <mass value="9.18E-07" />
      <inertia ixx="6.8927E-13" ixy="5.5033E-28" ixz="2.4805E-28" iyy="6.8927E-13" iyz="-3.5387E-24" izz="1.377E-12" />
    </inertial>
    <visual>
      <origin rpy="0 0 0" xyz="0 0 0"/>
      <geometry>
        <box size="0.0113 0.0105 0.001"/>
      </geometry>
      <material name="red"/>
    </visual>
    <collision>
      <origin rpy="0 0 0" xyz="0 0 0"/>
      <geometry>
        <box size="0.0183 0.0175 0.001"/>
      </geometry>
    </collision>
  </link>
  
<joint name="sensor_02_01_fixed" type="fixed" dont_collapse="true">
    <origin xyz="0.1001 0.0768 0.093" rpy="0 0 0" />
    <parent link="trunk" />
    <child link="sensor_02_01" />
    <axis xyz="0 0 0" />
  </joint>


<link name="sensor_02_02">
    <inertial>
      <origin xyz="0 -1.6653E-16 -5E-05" rpy="0 0 0" />
      <mass value="9.18E-07" />
      <inertia ixx="6.8927E-13" ixy="5.5033E-28" ixz="2.4805E-28" iyy="6.8927E-13" iyz="-3.5387E-24" izz="1.377E-12" />
    </inertial>
    <visual>
      <origin rpy="0 0 0" xyz="0 0 0"/>
      <geometry>
        <box size="0.0113 0.0105 0.001"/>
      </geometry>
      <material name="red"/>
    </visual>
    <collision>
      <origin rpy="0 0 0" xyz="0 0 0"/>
      <geometry>
        <box size="0.0183 0.0175 0.001"/>
      </geometry>
    </collision>
  </link>
  
<joint name="sensor_02_02_fixed" type="fixed" dont_collapse="true">
    <origin xyz="0.1001 0.064 0.093" rpy="0 0 0" />
    <parent link="trunk" />
    <child link="sensor_02_02" />
    <axis xyz="0 0 0" />
  </joint>


<link name="sensor_02_03">
    <inertial>
      <origin xyz="0 -1.6653E-16 -5E-05" rpy="0 0 0" />
      <mass value="9.18E-07" />
      <inertia ixx="6.8927E-13" ixy="5.5033E-28" ixz="2.4805E-28" iyy="6.8927E-13" iyz="-3.5387E-24" izz="1.377E-12" />
    </inertial>
    <visual>
      <origin rpy="0 0 0" xyz="0 0 0"/>
      <geometry>
        <box size="0.0113 0.0105 0.001"/>
      </geometry>
      <material name="red"/>
    </visual>
    <collision>
      <origin rpy="0 0 0" xyz="0 0 0"/>
      <geometry>
        <box size="0.0183 0.0175 0.001"/>
      </geometry>
    </collision>
  </link>
  
<joint name="sensor_02_03_fixed" type="fixed" dont_collapse="true">
    <origin xyz="0.1001 0.0512 0.093" rpy="0 0 0" />
    <parent link="trunk" />
    <child link="sensor_02_03" />
    <axis xyz="0 0 0" />
  </joint>


<link name="sensor_02_04">
    <inertial>
      <origin xyz="0 -1.6653E-16 -5E-05" rpy="0 0 0" />
      <mass value="9.18E-07" />
      <inertia ixx="6.8927E-13" ixy="5.5033E-28" ixz="2.4805E-28" iyy="6.8927E-13" iyz="-3.5387E-24" izz="1.377E-12" />
    </inertial>
    <visual>
      <origin rpy="0 0 0" xyz="0 0 0"/>
      <geometry>
        <box size="0.0113 0.0105 0.001"/>
      </geometry>
      <material name="red"/>
    </visual>
    <collision>
      <origin rpy="0 0 0" xyz="0 0 0"/>
      <geometry>
        <box size="0.0183 0.0175 0.001"/>
      </geometry>
    </collision>
  </link>
  
<joint name="sensor_02_04_fixed" type="fixed" dont_collapse="true">
    <origin xyz="0.1001 0.0384 0.093" rpy="0 0 0" />
    <parent link="trunk" />
    <child link="sensor_02_04" />
    <axis xyz="0 0 0" />
  </joint>


<link name="sensor_02_05">
    <inertial>
      <origin xyz="0 -1.6653E-16 -5E-05" rpy="0 0 0" />
      <mass value="9.18E-07" />
      <inertia ixx="6.8927E-13" ixy="5.5033E-28" ixz="2.4805E-28" iyy="6.8927E-13" iyz="-3.5387E-24" izz="1.377E-12" />
    </inertial>
    <visual>
      <origin rpy="0 0 0" xyz="0 0 0"/>
      <geometry>
        <box size="0.0113 0.0105 0.001"/>
      </geometry>
      <material name="red"/>
    </visual>
    <collision>
      <origin rpy="0 0 0" xyz="0 0 0"/>
      <geometry>
        <box size="0.0183 0.0175 0.001"/>
      </geometry>
    </collision>
  </link>
  
<joint name="sensor_02_05_fixed" type="fixed" dont_collapse="true">
    <origin xyz="0.1001 0.0256 0.093" rpy="0 0 0" />
    <parent link="trunk" />
    <child link="sensor_02_05" />
    <axis xyz="0 0 0" />
  </joint>


<link name="sensor_02_06">
    <inertial>
      <origin xyz="0 -1.6653E-16 -5E-05" rpy="0 0 0" />
      <mass value="9.18E-07" />
      <inertia ixx="6.8927E-13" ixy="5.5033E-28" ixz="2.4805E-28" iyy="6.8927E-13" iyz="-3.5387E-24" izz="1.377E-12" />
    </inertial>
    <visual>
      <origin rpy="0 0 0" xyz="0 0 0"/>
      <geometry>
        <box size="0.0113 0.0105 0.001"/>
      </geometry>
      <material name="red"/>
    </visual>
    <collision>
      <origin rpy="0 0 0" xyz="0 0 0"/>
      <geometry>
        <box size="0.0183 0.0175 0.001"/>
      </geometry>
    </collision>
  </link>
  
<joint name="sensor_02_06_fixed" type="fixed" dont_collapse="true">
    <origin xyz="0.1001 0.0128 0.093" rpy="0 0 0" />
    <parent link="trunk" />
    <child link="sensor_02_06" />
    <axis xyz="0 0 0" />
  </joint>


<link name="sensor_02_07">
    <inertial>
      <origin xyz="0 -1.6653E-16 -5E-05" rpy="0 0 0" />
      <mass value="9.18E-07" />
      <inertia ixx="6.8927E-13" ixy="5.5033E-28" ixz="2.4805E-28" iyy="6.8927E-13" iyz="-3.5387E-24" izz="1.377E-12" />
    </inertial>
    <visual>
      <origin rpy="0 0 0" xyz="0 0 0"/>
      <geometry>
        <box size="0.0113 0.0105 0.001"/>
      </geometry>
      <material name="red"/>
    </visual>
    <collision>
      <origin rpy="0 0 0" xyz="0 0 0"/>
      <geometry>
        <box size="0.0183 0.0175 0.001"/>
      </geometry>
    </collision>
  </link>
  
<joint name="sensor_02_07_fixed" type="fixed" dont_collapse="true">
    <origin xyz="0.1001 -0.0 0.093" rpy="0 0 0" />
    <parent link="trunk" />
    <child link="sensor_02_07" />
    <axis xyz="0 0 0" />
  </joint>


<link name="sensor_02_08">
    <inertial>
      <origin xyz="0 -1.6653E-16 -5E-05" rpy="0 0 0" />
      <mass value="9.18E-07" />
      <inertia ixx="6.8927E-13" ixy="5.5033E-28" ixz="2.4805E-28" iyy="6.8927E-13" iyz="-3.5387E-24" izz="1.377E-12" />
    </inertial>
    <visual>
      <origin rpy="0 0 0" xyz="0 0 0"/>
      <geometry>
        <box size="0.0113 0.0105 0.001"/>
      </geometry>
      <material name="red"/>
    </visual>
    <collision>
      <origin rpy="0 0 0" xyz="0 0 0"/>
      <geometry>
        <box size="0.0183 0.0175 0.001"/>
      </geometry>
    </collision>
  </link>
  
<joint name="sensor_02_08_fixed" type="fixed" dont_collapse="true">
    <origin xyz="0.1001 -0.0128 0.093" rpy="0 0 0" />
    <parent link="trunk" />
    <child link="sensor_02_08" />
    <axis xyz="0 0 0" />
  </joint>


<link name="sensor_02_09">
    <inertial>
      <origin xyz="0 -1.6653E-16 -5E-05" rpy="0 0 0" />
      <mass value="9.18E-07" />
      <inertia ixx="6.8927E-13" ixy="5.5033E-28" ixz="2.4805E-28" iyy="6.8927E-13" iyz="-3.5387E-24" izz="1.377E-12" />
    </inertial>
    <visual>
      <origin rpy="0 0 0" xyz="0 0 0"/>
      <geometry>
        <box size="0.0113 0.0105 0.001"/>
      </geometry>
      <material name="red"/>
    </visual>
    <collision>
      <origin rpy="0 0 0" xyz="0 0 0"/>
      <geometry>
        <box size="0.0183 0.0175 0.001"/>
      </geometry>
    </collision>
  </link>
  
<joint name="sensor_02_09_fixed" type="fixed" dont_collapse="true">
    <origin xyz="0.1001 -0.0256 0.093" rpy="0 0 0" />
    <parent link="trunk" />
    <child link="sensor_02_09" />
    <axis xyz="0 0 0" />
  </joint>


<link name="sensor_02_10">
    <inertial>
      <origin xyz="0 -1.6653E-16 -5E-05" rpy="0 0 0" />
      <mass value="9.18E-07" />
      <inertia ixx="6.8927E-13" ixy="5.5033E-28" ixz="2.4805E-28" iyy="6.8927E-13" iyz="-3.5387E-24" izz="1.377E-12" />
    </inertial>
    <visual>
      <origin rpy="0 0 0" xyz="0 0 0"/>
      <geometry>
        <box size="0.0113 0.0105 0.001"/>
      </geometry>
      <material name="red"/>
    </visual>
    <collision>
      <origin rpy="0 0 0" xyz="0 0 0"/>
      <geometry>
        <box size="0.0183 0.0175 0.001"/>
      </geometry>
    </collision>
  </link>
  
<joint name="sensor_02_10_fixed" type="fixed" dont_collapse="true">
    <origin xyz="0.1001 -0.0384 0.093" rpy="0 0 0" />
    <parent link="trunk" />
    <child link="sensor_02_10" />
    <axis xyz="0 0 0" />
  </joint>


<link name="sensor_02_11">
    <inertial>
      <origin xyz="0 -1.6653E-16 -5E-05" rpy="0 0 0" />
      <mass value="9.18E-07" />
      <inertia ixx="6.8927E-13" ixy="5.5033E-28" ixz="2.4805E-28" iyy="6.8927E-13" iyz="-3.5387E-24" izz="1.377E-12" />
    </inertial>
    <visual>
      <origin rpy="0 0 0" xyz="0 0 0"/>
      <geometry>
        <box size="0.0113 0.0105 0.001"/>
      </geometry>
      <material name="red"/>
    </visual>
    <collision>
      <origin rpy="0 0 0" xyz="0 0 0"/>
      <geometry>
        <box size="0.0183 0.0175 0.001"/>
      </geometry>
    </collision>
  </link>
  
<joint name="sensor_02_11_fixed" type="fixed" dont_collapse="true">
    <origin xyz="0.1001 -0.0512 0.093" rpy="0 0 0" />
    <parent link="trunk" />
    <child link="sensor_02_11" />
    <axis xyz="0 0 0" />
  </joint>


<link name="sensor_02_12">
    <inertial>
      <origin xyz="0 -1.6653E-16 -5E-05" rpy="0 0 0" />
      <mass value="9.18E-07" />
      <inertia ixx="6.8927E-13" ixy="5.5033E-28" ixz="2.4805E-28" iyy="6.8927E-13" iyz="-3.5387E-24" izz="1.377E-12" />
    </inertial>
    <visual>
      <origin rpy="0 0 0" xyz="0 0 0"/>
      <geometry>
        <box size="0.0113 0.0105 0.001"/>
      </geometry>
      <material name="red"/>
    </visual>
    <collision>
      <origin rpy="0 0 0" xyz="0 0 0"/>
      <geometry>
        <box size="0.0183 0.0175 0.001"/>
      </geometry>
    </collision>
  </link>
  
<joint name="sensor_02_12_fixed" type="fixed" dont_collapse="true">
    <origin xyz="0.1001 -0.064 0.093" rpy="0 0 0" />
    <parent link="trunk" />
    <child link="sensor_02_12" />
    <axis xyz="0 0 0" />
  </joint>


<link name="sensor_02_13">
    <inertial>
      <origin xyz="0 -1.6653E-16 -5E-05" rpy="0 0 0" />
      <mass value="9.18E-07" />
      <inertia ixx="6.8927E-13" ixy="5.5033E-28" ixz="2.4805E-28" iyy="6.8927E-13" iyz="-3.5387E-24" izz="1.377E-12" />
    </inertial>
    <visual>
      <origin rpy="0 0 0" xyz="0 0 0"/>
      <geometry>
        <box size="0.0113 0.0105 0.001"/>
      </geometry>
      <material name="red"/>
    </visual>
    <collision>
      <origin rpy="0 0 0" xyz="0 0 0"/>
      <geometry>
        <box size="0.0183 0.0175 0.001"/>
      </geometry>
    </collision>
  </link>
  
<joint name="sensor_02_13_fixed" type="fixed" dont_collapse="true">
    <origin xyz="0.1001 -0.0768 0.093" rpy="0 0 0" />
    <parent link="trunk" />
    <child link="sensor_02_13" />
    <axis xyz="0 0 0" />
  </joint>


<link name="sensor_03_01">
    <inertial>
      <origin xyz="0 -1.6653E-16 -5E-05" rpy="0 0 0" />
      <mass value="9.18E-07" />
      <inertia ixx="6.8927E-13" ixy="5.5033E-28" ixz="2.4805E-28" iyy="6.8927E-13" iyz="-3.5387E-24" izz="1.377E-12" />
    </inertial>
    <visual>
      <origin rpy="0 0 0" xyz="0 0 0"/>
      <geometry>
        <box size="0.0113 0.0105 0.001"/>
      </geometry>
      <material name="red"/>
    </visual>
    <collision>
      <origin rpy="0 0 0" xyz="0 0 0"/>
      <geometry>
        <box size="0.0183 0.0175 0.001"/>
      </geometry>
    </collision>
  </link>
  
<joint name="sensor_03_01_fixed" type="fixed" dont_collapse="true">
    <origin xyz="0.0858 0.0768 0.093" rpy="0 0 0" />
    <parent link="trunk" />
    <child link="sensor_03_01" />
    <axis xyz="0 0 0" />
  </joint>


<link name="sensor_03_02">
    <inertial>
      <origin xyz="0 -1.6653E-16 -5E-05" rpy="0 0 0" />
      <mass value="9.18E-07" />
      <inertia ixx="6.8927E-13" ixy="5.5033E-28" ixz="2.4805E-28" iyy="6.8927E-13" iyz="-3.5387E-24" izz="1.377E-12" />
    </inertial>
    <visual>
      <origin rpy="0 0 0" xyz="0 0 0"/>
      <geometry>
        <box size="0.0113 0.0105 0.001"/>
      </geometry>
      <material name="red"/>
    </visual>
    <collision>
      <origin rpy="0 0 0" xyz="0 0 0"/>
      <geometry>
        <box size="0.0183 0.0175 0.001"/>
      </geometry>
    </collision>
  </link>
  
<joint name="sensor_03_02_fixed" type="fixed" dont_collapse="true">
    <origin xyz="0.0858 0.064 0.093" rpy="0 0 0" />
    <parent link="trunk" />
    <child link="sensor_03_02" />
    <axis xyz="0 0 0" />
  </joint>


<link name="sensor_03_03">
    <inertial>
      <origin xyz="0 -1.6653E-16 -5E-05" rpy="0 0 0" />
      <mass value="9.18E-07" />
      <inertia ixx="6.8927E-13" ixy="5.5033E-28" ixz="2.4805E-28" iyy="6.8927E-13" iyz="-3.5387E-24" izz="1.377E-12" />
    </inertial>
    <visual>
      <origin rpy="0 0 0" xyz="0 0 0"/>
      <geometry>
        <box size="0.0113 0.0105 0.001"/>
      </geometry>
      <material name="red"/>
    </visual>
    <collision>
      <origin rpy="0 0 0" xyz="0 0 0"/>
      <geometry>
        <box size="0.0183 0.0175 0.001"/>
      </geometry>
    </collision>
  </link>
  
<joint name="sensor_03_03_fixed" type="fixed" dont_collapse="true">
    <origin xyz="0.0858 0.0512 0.093" rpy="0 0 0" />
    <parent link="trunk" />
    <child link="sensor_03_03" />
    <axis xyz="0 0 0" />
  </joint>


<link name="sensor_03_04">
    <inertial>
      <origin xyz="0 -1.6653E-16 -5E-05" rpy="0 0 0" />
      <mass value="9.18E-07" />
      <inertia ixx="6.8927E-13" ixy="5.5033E-28" ixz="2.4805E-28" iyy="6.8927E-13" iyz="-3.5387E-24" izz="1.377E-12" />
    </inertial>
    <visual>
      <origin rpy="0 0 0" xyz="0 0 0"/>
      <geometry>
        <box size="0.0113 0.0105 0.001"/>
      </geometry>
      <material name="red"/>
    </visual>
    <collision>
      <origin rpy="0 0 0" xyz="0 0 0"/>
      <geometry>
        <box size="0.0183 0.0175 0.001"/>
      </geometry>
    </collision>
  </link>
  
<joint name="sensor_03_04_fixed" type="fixed" dont_collapse="true">
    <origin xyz="0.0858 0.0384 0.093" rpy="0 0 0" />
    <parent link="trunk" />
    <child link="sensor_03_04" />
    <axis xyz="0 0 0" />
  </joint>


<link name="sensor_03_05">
    <inertial>
      <origin xyz="0 -1.6653E-16 -5E-05" rpy="0 0 0" />
      <mass value="9.18E-07" />
      <inertia ixx="6.8927E-13" ixy="5.5033E-28" ixz="2.4805E-28" iyy="6.8927E-13" iyz="-3.5387E-24" izz="1.377E-12" />
    </inertial>
    <visual>
      <origin rpy="0 0 0" xyz="0 0 0"/>
      <geometry>
        <box size="0.0113 0.0105 0.001"/>
      </geometry>
      <material name="red"/>
    </visual>
    <collision>
      <origin rpy="0 0 0" xyz="0 0 0"/>
      <geometry>
        <box size="0.0183 0.0175 0.001"/>
      </geometry>
    </collision>
  </link>
  
<joint name="sensor_03_05_fixed" type="fixed" dont_collapse="true">
    <origin xyz="0.0858 0.0256 0.093" rpy="0 0 0" />
    <parent link="trunk" />
    <child link="sensor_03_05" />
    <axis xyz="0 0 0" />
  </joint>


<link name="sensor_03_06">
    <inertial>
      <origin xyz="0 -1.6653E-16 -5E-05" rpy="0 0 0" />
      <mass value="9.18E-07" />
      <inertia ixx="6.8927E-13" ixy="5.5033E-28" ixz="2.4805E-28" iyy="6.8927E-13" iyz="-3.5387E-24" izz="1.377E-12" />
    </inertial>
    <visual>
      <origin rpy="0 0 0" xyz="0 0 0"/>
      <geometry>
        <box size="0.0113 0.0105 0.001"/>
      </geometry>
      <material name="red"/>
    </visual>
    <collision>
      <origin rpy="0 0 0" xyz="0 0 0"/>
      <geometry>
        <box size="0.0183 0.0175 0.001"/>
      </geometry>
    </collision>
  </link>
  
<joint name="sensor_03_06_fixed" type="fixed" dont_collapse="true">
    <origin xyz="0.0858 0.0128 0.093" rpy="0 0 0" />
    <parent link="trunk" />
    <child link="sensor_03_06" />
    <axis xyz="0 0 0" />
  </joint>


<link name="sensor_03_07">
    <inertial>
      <origin xyz="0 -1.6653E-16 -5E-05" rpy="0 0 0" />
      <mass value="9.18E-07" />
      <inertia ixx="6.8927E-13" ixy="5.5033E-28" ixz="2.4805E-28" iyy="6.8927E-13" iyz="-3.5387E-24" izz="1.377E-12" />
    </inertial>
    <visual>
      <origin rpy="0 0 0" xyz="0 0 0"/>
      <geometry>
        <box size="0.0113 0.0105 0.001"/>
      </geometry>
      <material name="red"/>
    </visual>
    <collision>
      <origin rpy="0 0 0" xyz="0 0 0"/>
      <geometry>
        <box size="0.0183 0.0175 0.001"/>
      </geometry>
    </collision>
  </link>
  
<joint name="sensor_03_07_fixed" type="fixed" dont_collapse="true">
    <origin xyz="0.0858 -0.0 0.093" rpy="0 0 0" />
    <parent link="trunk" />
    <child link="sensor_03_07" />
    <axis xyz="0 0 0" />
  </joint>


<link name="sensor_03_08">
    <inertial>
      <origin xyz="0 -1.6653E-16 -5E-05" rpy="0 0 0" />
      <mass value="9.18E-07" />
      <inertia ixx="6.8927E-13" ixy="5.5033E-28" ixz="2.4805E-28" iyy="6.8927E-13" iyz="-3.5387E-24" izz="1.377E-12" />
    </inertial>
    <visual>
      <origin rpy="0 0 0" xyz="0 0 0"/>
      <geometry>
        <box size="0.0113 0.0105 0.001"/>
      </geometry>
      <material name="red"/>
    </visual>
    <collision>
      <origin rpy="0 0 0" xyz="0 0 0"/>
      <geometry>
        <box size="0.0183 0.0175 0.001"/>
      </geometry>
    </collision>
  </link>
  
<joint name="sensor_03_08_fixed" type="fixed" dont_collapse="true">
    <origin xyz="0.0858 -0.0128 0.093" rpy="0 0 0" />
    <parent link="trunk" />
    <child link="sensor_03_08" />
    <axis xyz="0 0 0" />
  </joint>


<link name="sensor_03_09">
    <inertial>
      <origin xyz="0 -1.6653E-16 -5E-05" rpy="0 0 0" />
      <mass value="9.18E-07" />
      <inertia ixx="6.8927E-13" ixy="5.5033E-28" ixz="2.4805E-28" iyy="6.8927E-13" iyz="-3.5387E-24" izz="1.377E-12" />
    </inertial>
    <visual>
      <origin rpy="0 0 0" xyz="0 0 0"/>
      <geometry>
        <box size="0.0113 0.0105 0.001"/>
      </geometry>
      <material name="red"/>
    </visual>
    <collision>
      <origin rpy="0 0 0" xyz="0 0 0"/>
      <geometry>
        <box size="0.0183 0.0175 0.001"/>
      </geometry>
    </collision>
  </link>
  
<joint name="sensor_03_09_fixed" type="fixed" dont_collapse="true">
    <origin xyz="0.0858 -0.0256 0.093" rpy="0 0 0" />
    <parent link="trunk" />
    <child link="sensor_03_09" />
    <axis xyz="0 0 0" />
  </joint>


<link name="sensor_03_10">
    <inertial>
      <origin xyz="0 -1.6653E-16 -5E-05" rpy="0 0 0" />
      <mass value="9.18E-07" />
      <inertia ixx="6.8927E-13" ixy="5.5033E-28" ixz="2.4805E-28" iyy="6.8927E-13" iyz="-3.5387E-24" izz="1.377E-12" />
    </inertial>
    <visual>
      <origin rpy="0 0 0" xyz="0 0 0"/>
      <geometry>
        <box size="0.0113 0.0105 0.001"/>
      </geometry>
      <material name="red"/>
    </visual>
    <collision>
      <origin rpy="0 0 0" xyz="0 0 0"/>
      <geometry>
        <box size="0.0183 0.0175 0.001"/>
      </geometry>
    </collision>
  </link>
  
<joint name="sensor_03_10_fixed" type="fixed" dont_collapse="true">
    <origin xyz="0.0858 -0.0384 0.093" rpy="0 0 0" />
    <parent link="trunk" />
    <child link="sensor_03_10" />
    <axis xyz="0 0 0" />
  </joint>


<link name="sensor_03_11">
    <inertial>
      <origin xyz="0 -1.6653E-16 -5E-05" rpy="0 0 0" />
      <mass value="9.18E-07" />
      <inertia ixx="6.8927E-13" ixy="5.5033E-28" ixz="2.4805E-28" iyy="6.8927E-13" iyz="-3.5387E-24" izz="1.377E-12" />
    </inertial>
    <visual>
      <origin rpy="0 0 0" xyz="0 0 0"/>
      <geometry>
        <box size="0.0113 0.0105 0.001"/>
      </geometry>
      <material name="red"/>
    </visual>
    <collision>
      <origin rpy="0 0 0" xyz="0 0 0"/>
      <geometry>
        <box size="0.0183 0.0175 0.001"/>
      </geometry>
    </collision>
  </link>
  
<joint name="sensor_03_11_fixed" type="fixed" dont_collapse="true">
    <origin xyz="0.0858 -0.0512 0.093" rpy="0 0 0" />
    <parent link="trunk" />
    <child link="sensor_03_11" />
    <axis xyz="0 0 0" />
  </joint>


<link name="sensor_03_12">
    <inertial>
      <origin xyz="0 -1.6653E-16 -5E-05" rpy="0 0 0" />
      <mass value="9.18E-07" />
      <inertia ixx="6.8927E-13" ixy="5.5033E-28" ixz="2.4805E-28" iyy="6.8927E-13" iyz="-3.5387E-24" izz="1.377E-12" />
    </inertial>
    <visual>
      <origin rpy="0 0 0" xyz="0 0 0"/>
      <geometry>
        <box size="0.0113 0.0105 0.001"/>
      </geometry>
      <material name="red"/>
    </visual>
    <collision>
      <origin rpy="0 0 0" xyz="0 0 0"/>
      <geometry>
        <box size="0.0183 0.0175 0.001"/>
      </geometry>
    </collision>
  </link>
  
<joint name="sensor_03_12_fixed" type="fixed" dont_collapse="true">
    <origin xyz="0.0858 -0.064 0.093" rpy="0 0 0" />
    <parent link="trunk" />
    <child link="sensor_03_12" />
    <axis xyz="0 0 0" />
  </joint>


<link name="sensor_03_13">
    <inertial>
      <origin xyz="0 -1.6653E-16 -5E-05" rpy="0 0 0" />
      <mass value="9.18E-07" />
      <inertia ixx="6.8927E-13" ixy="5.5033E-28" ixz="2.4805E-28" iyy="6.8927E-13" iyz="-3.5387E-24" izz="1.377E-12" />
    </inertial>
    <visual>
      <origin rpy="0 0 0" xyz="0 0 0"/>
      <geometry>
        <box size="0.0113 0.0105 0.001"/>
      </geometry>
      <material name="red"/>
    </visual>
    <collision>
      <origin rpy="0 0 0" xyz="0 0 0"/>
      <geometry>
        <box size="0.0183 0.0175 0.001"/>
      </geometry>
    </collision>
  </link>
  
<joint name="sensor_03_13_fixed" type="fixed" dont_collapse="true">
    <origin xyz="0.0858 -0.0768 0.093" rpy="0 0 0" />
    <parent link="trunk" />
    <child link="sensor_03_13" />
    <axis xyz="0 0 0" />
  </joint>


<link name="sensor_04_01">
    <inertial>
      <origin xyz="0 -1.6653E-16 -5E-05" rpy="0 0 0" />
      <mass value="9.18E-07" />
      <inertia ixx="6.8927E-13" ixy="5.5033E-28" ixz="2.4805E-28" iyy="6.8927E-13" iyz="-3.5387E-24" izz="1.377E-12" />
    </inertial>
    <visual>
      <origin rpy="0 0 0" xyz="0 0 0"/>
      <geometry>
        <box size="0.0113 0.0105 0.001"/>
      </geometry>
      <material name="red"/>
    </visual>
    <collision>
      <origin rpy="0 0 0" xyz="0 0 0"/>
      <geometry>
        <box size="0.0183 0.0175 0.001"/>
      </geometry>
    </collision>
  </link>
  
<joint name="sensor_04_01_fixed" type="fixed" dont_collapse="true">
    <origin xyz="0.0715 0.0768 0.093" rpy="0 0 0" />
    <parent link="trunk" />
    <child link="sensor_04_01" />
    <axis xyz="0 0 0" />
  </joint>


<link name="sensor_04_02">
    <inertial>
      <origin xyz="0 -1.6653E-16 -5E-05" rpy="0 0 0" />
      <mass value="9.18E-07" />
      <inertia ixx="6.8927E-13" ixy="5.5033E-28" ixz="2.4805E-28" iyy="6.8927E-13" iyz="-3.5387E-24" izz="1.377E-12" />
    </inertial>
    <visual>
      <origin rpy="0 0 0" xyz="0 0 0"/>
      <geometry>
        <box size="0.0113 0.0105 0.001"/>
      </geometry>
      <material name="red"/>
    </visual>
    <collision>
      <origin rpy="0 0 0" xyz="0 0 0"/>
      <geometry>
        <box size="0.0183 0.0175 0.001"/>
      </geometry>
    </collision>
  </link>
  
<joint name="sensor_04_02_fixed" type="fixed" dont_collapse="true">
    <origin xyz="0.0715 0.064 0.093" rpy="0 0 0" />
    <parent link="trunk" />
    <child link="sensor_04_02" />
    <axis xyz="0 0 0" />
  </joint>


<link name="sensor_04_03">
    <inertial>
      <origin xyz="0 -1.6653E-16 -5E-05" rpy="0 0 0" />
      <mass value="9.18E-07" />
      <inertia ixx="6.8927E-13" ixy="5.5033E-28" ixz="2.4805E-28" iyy="6.8927E-13" iyz="-3.5387E-24" izz="1.377E-12" />
    </inertial>
    <visual>
      <origin rpy="0 0 0" xyz="0 0 0"/>
      <geometry>
        <box size="0.0113 0.0105 0.001"/>
      </geometry>
      <material name="red"/>
    </visual>
    <collision>
      <origin rpy="0 0 0" xyz="0 0 0"/>
      <geometry>
        <box size="0.0183 0.0175 0.001"/>
      </geometry>
    </collision>
  </link>
  
<joint name="sensor_04_03_fixed" type="fixed" dont_collapse="true">
    <origin xyz="0.0715 0.0512 0.093" rpy="0 0 0" />
    <parent link="trunk" />
    <child link="sensor_04_03" />
    <axis xyz="0 0 0" />
  </joint>


<link name="sensor_04_04">
    <inertial>
      <origin xyz="0 -1.6653E-16 -5E-05" rpy="0 0 0" />
      <mass value="9.18E-07" />
      <inertia ixx="6.8927E-13" ixy="5.5033E-28" ixz="2.4805E-28" iyy="6.8927E-13" iyz="-3.5387E-24" izz="1.377E-12" />
    </inertial>
    <visual>
      <origin rpy="0 0 0" xyz="0 0 0"/>
      <geometry>
        <box size="0.0113 0.0105 0.001"/>
      </geometry>
      <material name="red"/>
    </visual>
    <collision>
      <origin rpy="0 0 0" xyz="0 0 0"/>
      <geometry>
        <box size="0.0183 0.0175 0.001"/>
      </geometry>
    </collision>
  </link>
  
<joint name="sensor_04_04_fixed" type="fixed" dont_collapse="true">
    <origin xyz="0.0715 0.0384 0.093" rpy="0 0 0" />
    <parent link="trunk" />
    <child link="sensor_04_04" />
    <axis xyz="0 0 0" />
  </joint>


<link name="sensor_04_05">
    <inertial>
      <origin xyz="0 -1.6653E-16 -5E-05" rpy="0 0 0" />
      <mass value="9.18E-07" />
      <inertia ixx="6.8927E-13" ixy="5.5033E-28" ixz="2.4805E-28" iyy="6.8927E-13" iyz="-3.5387E-24" izz="1.377E-12" />
    </inertial>
    <visual>
      <origin rpy="0 0 0" xyz="0 0 0"/>
      <geometry>
        <box size="0.0113 0.0105 0.001"/>
      </geometry>
      <material name="red"/>
    </visual>
    <collision>
      <origin rpy="0 0 0" xyz="0 0 0"/>
      <geometry>
        <box size="0.0183 0.0175 0.001"/>
      </geometry>
    </collision>
  </link>
  
<joint name="sensor_04_05_fixed" type="fixed" dont_collapse="true">
    <origin xyz="0.0715 0.0256 0.093" rpy="0 0 0" />
    <parent link="trunk" />
    <child link="sensor_04_05" />
    <axis xyz="0 0 0" />
  </joint>


<link name="sensor_04_06">
    <inertial>
      <origin xyz="0 -1.6653E-16 -5E-05" rpy="0 0 0" />
      <mass value="9.18E-07" />
      <inertia ixx="6.8927E-13" ixy="5.5033E-28" ixz="2.4805E-28" iyy="6.8927E-13" iyz="-3.5387E-24" izz="1.377E-12" />
    </inertial>
    <visual>
      <origin rpy="0 0 0" xyz="0 0 0"/>
      <geometry>
        <box size="0.0113 0.0105 0.001"/>
      </geometry>
      <material name="red"/>
    </visual>
    <collision>
      <origin rpy="0 0 0" xyz="0 0 0"/>
      <geometry>
        <box size="0.0183 0.0175 0.001"/>
      </geometry>
    </collision>
  </link>
  
<joint name="sensor_04_06_fixed" type="fixed" dont_collapse="true">
    <origin xyz="0.0715 0.0128 0.093" rpy="0 0 0" />
    <parent link="trunk" />
    <child link="sensor_04_06" />
    <axis xyz="0 0 0" />
  </joint>


<link name="sensor_04_07">
    <inertial>
      <origin xyz="0 -1.6653E-16 -5E-05" rpy="0 0 0" />
      <mass value="9.18E-07" />
      <inertia ixx="6.8927E-13" ixy="5.5033E-28" ixz="2.4805E-28" iyy="6.8927E-13" iyz="-3.5387E-24" izz="1.377E-12" />
    </inertial>
    <visual>
      <origin rpy="0 0 0" xyz="0 0 0"/>
      <geometry>
        <box size="0.0113 0.0105 0.001"/>
      </geometry>
      <material name="red"/>
    </visual>
    <collision>
      <origin rpy="0 0 0" xyz="0 0 0"/>
      <geometry>
        <box size="0.0183 0.0175 0.001"/>
      </geometry>
    </collision>
  </link>
  
<joint name="sensor_04_07_fixed" type="fixed" dont_collapse="true">
    <origin xyz="0.0715 -0.0 0.093" rpy="0 0 0" />
    <parent link="trunk" />
    <child link="sensor_04_07" />
    <axis xyz="0 0 0" />
  </joint>


<link name="sensor_04_08">
    <inertial>
      <origin xyz="0 -1.6653E-16 -5E-05" rpy="0 0 0" />
      <mass value="9.18E-07" />
      <inertia ixx="6.8927E-13" ixy="5.5033E-28" ixz="2.4805E-28" iyy="6.8927E-13" iyz="-3.5387E-24" izz="1.377E-12" />
    </inertial>
    <visual>
      <origin rpy="0 0 0" xyz="0 0 0"/>
      <geometry>
        <box size="0.0113 0.0105 0.001"/>
      </geometry>
      <material name="red"/>
    </visual>
    <collision>
      <origin rpy="0 0 0" xyz="0 0 0"/>
      <geometry>
        <box size="0.0183 0.0175 0.001"/>
      </geometry>
    </collision>
  </link>
  
<joint name="sensor_04_08_fixed" type="fixed" dont_collapse="true">
    <origin xyz="0.0715 -0.0128 0.093" rpy="0 0 0" />
    <parent link="trunk" />
    <child link="sensor_04_08" />
    <axis xyz="0 0 0" />
  </joint>


<link name="sensor_04_09">
    <inertial>
      <origin xyz="0 -1.6653E-16 -5E-05" rpy="0 0 0" />
      <mass value="9.18E-07" />
      <inertia ixx="6.8927E-13" ixy="5.5033E-28" ixz="2.4805E-28" iyy="6.8927E-13" iyz="-3.5387E-24" izz="1.377E-12" />
    </inertial>
    <visual>
      <origin rpy="0 0 0" xyz="0 0 0"/>
      <geometry>
        <box size="0.0113 0.0105 0.001"/>
      </geometry>
      <material name="red"/>
    </visual>
    <collision>
      <origin rpy="0 0 0" xyz="0 0 0"/>
      <geometry>
        <box size="0.0183 0.0175 0.001"/>
      </geometry>
    </collision>
  </link>
  
<joint name="sensor_04_09_fixed" type="fixed" dont_collapse="true">
    <origin xyz="0.0715 -0.0256 0.093" rpy="0 0 0" />
    <parent link="trunk" />
    <child link="sensor_04_09" />
    <axis xyz="0 0 0" />
  </joint>


<link name="sensor_04_10">
    <inertial>
      <origin xyz="0 -1.6653E-16 -5E-05" rpy="0 0 0" />
      <mass value="9.18E-07" />
      <inertia ixx="6.8927E-13" ixy="5.5033E-28" ixz="2.4805E-28" iyy="6.8927E-13" iyz="-3.5387E-24" izz="1.377E-12" />
    </inertial>
    <visual>
      <origin rpy="0 0 0" xyz="0 0 0"/>
      <geometry>
        <box size="0.0113 0.0105 0.001"/>
      </geometry>
      <material name="red"/>
    </visual>
    <collision>
      <origin rpy="0 0 0" xyz="0 0 0"/>
      <geometry>
        <box size="0.0183 0.0175 0.001"/>
      </geometry>
    </collision>
  </link>
  
<joint name="sensor_04_10_fixed" type="fixed" dont_collapse="true">
    <origin xyz="0.0715 -0.0384 0.093" rpy="0 0 0" />
    <parent link="trunk" />
    <child link="sensor_04_10" />
    <axis xyz="0 0 0" />
  </joint>


<link name="sensor_04_11">
    <inertial>
      <origin xyz="0 -1.6653E-16 -5E-05" rpy="0 0 0" />
      <mass value="9.18E-07" />
      <inertia ixx="6.8927E-13" ixy="5.5033E-28" ixz="2.4805E-28" iyy="6.8927E-13" iyz="-3.5387E-24" izz="1.377E-12" />
    </inertial>
    <visual>
      <origin rpy="0 0 0" xyz="0 0 0"/>
      <geometry>
        <box size="0.0113 0.0105 0.001"/>
      </geometry>
      <material name="red"/>
    </visual>
    <collision>
      <origin rpy="0 0 0" xyz="0 0 0"/>
      <geometry>
        <box size="0.0183 0.0175 0.001"/>
      </geometry>
    </collision>
  </link>
  
<joint name="sensor_04_11_fixed" type="fixed" dont_collapse="true">
    <origin xyz="0.0715 -0.0512 0.093" rpy="0 0 0" />
    <parent link="trunk" />
    <child link="sensor_04_11" />
    <axis xyz="0 0 0" />
  </joint>


<link name="sensor_04_12">
    <inertial>
      <origin xyz="0 -1.6653E-16 -5E-05" rpy="0 0 0" />
      <mass value="9.18E-07" />
      <inertia ixx="6.8927E-13" ixy="5.5033E-28" ixz="2.4805E-28" iyy="6.8927E-13" iyz="-3.5387E-24" izz="1.377E-12" />
    </inertial>
    <visual>
      <origin rpy="0 0 0" xyz="0 0 0"/>
      <geometry>
        <box size="0.0113 0.0105 0.001"/>
      </geometry>
      <material name="red"/>
    </visual>
    <collision>
      <origin rpy="0 0 0" xyz="0 0 0"/>
      <geometry>
        <box size="0.0183 0.0175 0.001"/>
      </geometry>
    </collision>
  </link>
  
<joint name="sensor_04_12_fixed" type="fixed" dont_collapse="true">
    <origin xyz="0.0715 -0.064 0.093" rpy="0 0 0" />
    <parent link="trunk" />
    <child link="sensor_04_12" />
    <axis xyz="0 0 0" />
  </joint>


<link name="sensor_04_13">
    <inertial>
      <origin xyz="0 -1.6653E-16 -5E-05" rpy="0 0 0" />
      <mass value="9.18E-07" />
      <inertia ixx="6.8927E-13" ixy="5.5033E-28" ixz="2.4805E-28" iyy="6.8927E-13" iyz="-3.5387E-24" izz="1.377E-12" />
    </inertial>
    <visual>
      <origin rpy="0 0 0" xyz="0 0 0"/>
      <geometry>
        <box size="0.0113 0.0105 0.001"/>
      </geometry>
      <material name="red"/>
    </visual>
    <collision>
      <origin rpy="0 0 0" xyz="0 0 0"/>
      <geometry>
        <box size="0.0183 0.0175 0.001"/>
      </geometry>
    </collision>
  </link>
  
<joint name="sensor_04_13_fixed" type="fixed" dont_collapse="true">
    <origin xyz="0.0715 -0.0768 0.093" rpy="0 0 0" />
    <parent link="trunk" />
    <child link="sensor_04_13" />
    <axis xyz="0 0 0" />
  </joint>


<link name="sensor_05_01">
    <inertial>
      <origin xyz="0 -1.6653E-16 -5E-05" rpy="0 0 0" />
      <mass value="9.18E-07" />
      <inertia ixx="6.8927E-13" ixy="5.5033E-28" ixz="2.4805E-28" iyy="6.8927E-13" iyz="-3.5387E-24" izz="1.377E-12" />
    </inertial>
    <visual>
      <origin rpy="0 0 0" xyz="0 0 0"/>
      <geometry>
        <box size="0.0113 0.0105 0.001"/>
      </geometry>
      <material name="red"/>
    </visual>
    <collision>
      <origin rpy="0 0 0" xyz="0 0 0"/>
      <geometry>
        <box size="0.0183 0.0175 0.001"/>
      </geometry>
    </collision>
  </link>
  
<joint name="sensor_05_01_fixed" type="fixed" dont_collapse="true">
    <origin xyz="0.0572 0.0768 0.093" rpy="0 0 0" />
    <parent link="trunk" />
    <child link="sensor_05_01" />
    <axis xyz="0 0 0" />
  </joint>


<link name="sensor_05_02">
    <inertial>
      <origin xyz="0 -1.6653E-16 -5E-05" rpy="0 0 0" />
      <mass value="9.18E-07" />
      <inertia ixx="6.8927E-13" ixy="5.5033E-28" ixz="2.4805E-28" iyy="6.8927E-13" iyz="-3.5387E-24" izz="1.377E-12" />
    </inertial>
    <visual>
      <origin rpy="0 0 0" xyz="0 0 0"/>
      <geometry>
        <box size="0.0113 0.0105 0.001"/>
      </geometry>
      <material name="red"/>
    </visual>
    <collision>
      <origin rpy="0 0 0" xyz="0 0 0"/>
      <geometry>
        <box size="0.0183 0.0175 0.001"/>
      </geometry>
    </collision>
  </link>
  
<joint name="sensor_05_02_fixed" type="fixed" dont_collapse="true">
    <origin xyz="0.0572 0.064 0.093" rpy="0 0 0" />
    <parent link="trunk" />
    <child link="sensor_05_02" />
    <axis xyz="0 0 0" />
  </joint>


<link name="sensor_05_03">
    <inertial>
      <origin xyz="0 -1.6653E-16 -5E-05" rpy="0 0 0" />
      <mass value="9.18E-07" />
      <inertia ixx="6.8927E-13" ixy="5.5033E-28" ixz="2.4805E-28" iyy="6.8927E-13" iyz="-3.5387E-24" izz="1.377E-12" />
    </inertial>
    <visual>
      <origin rpy="0 0 0" xyz="0 0 0"/>
      <geometry>
        <box size="0.0113 0.0105 0.001"/>
      </geometry>
      <material name="red"/>
    </visual>
    <collision>
      <origin rpy="0 0 0" xyz="0 0 0"/>
      <geometry>
        <box size="0.0183 0.0175 0.001"/>
      </geometry>
    </collision>
  </link>
  
<joint name="sensor_05_03_fixed" type="fixed" dont_collapse="true">
    <origin xyz="0.0572 0.0512 0.093" rpy="0 0 0" />
    <parent link="trunk" />
    <child link="sensor_05_03" />
    <axis xyz="0 0 0" />
  </joint>


<link name="sensor_05_04">
    <inertial>
      <origin xyz="0 -1.6653E-16 -5E-05" rpy="0 0 0" />
      <mass value="9.18E-07" />
      <inertia ixx="6.8927E-13" ixy="5.5033E-28" ixz="2.4805E-28" iyy="6.8927E-13" iyz="-3.5387E-24" izz="1.377E-12" />
    </inertial>
    <visual>
      <origin rpy="0 0 0" xyz="0 0 0"/>
      <geometry>
        <box size="0.0113 0.0105 0.001"/>
      </geometry>
      <material name="red"/>
    </visual>
    <collision>
      <origin rpy="0 0 0" xyz="0 0 0"/>
      <geometry>
        <box size="0.0183 0.0175 0.001"/>
      </geometry>
    </collision>
  </link>
  
<joint name="sensor_05_04_fixed" type="fixed" dont_collapse="true">
    <origin xyz="0.0572 0.0384 0.093" rpy="0 0 0" />
    <parent link="trunk" />
    <child link="sensor_05_04" />
    <axis xyz="0 0 0" />
  </joint>


<link name="sensor_05_05">
    <inertial>
      <origin xyz="0 -1.6653E-16 -5E-05" rpy="0 0 0" />
      <mass value="9.18E-07" />
      <inertia ixx="6.8927E-13" ixy="5.5033E-28" ixz="2.4805E-28" iyy="6.8927E-13" iyz="-3.5387E-24" izz="1.377E-12" />
    </inertial>
    <visual>
      <origin rpy="0 0 0" xyz="0 0 0"/>
      <geometry>
        <box size="0.0113 0.0105 0.001"/>
      </geometry>
      <material name="red"/>
    </visual>
    <collision>
      <origin rpy="0 0 0" xyz="0 0 0"/>
      <geometry>
        <box size="0.0183 0.0175 0.001"/>
      </geometry>
    </collision>
  </link>
  
<joint name="sensor_05_05_fixed" type="fixed" dont_collapse="true">
    <origin xyz="0.0572 0.0256 0.093" rpy="0 0 0" />
    <parent link="trunk" />
    <child link="sensor_05_05" />
    <axis xyz="0 0 0" />
  </joint>


<link name="sensor_05_06">
    <inertial>
      <origin xyz="0 -1.6653E-16 -5E-05" rpy="0 0 0" />
      <mass value="9.18E-07" />
      <inertia ixx="6.8927E-13" ixy="5.5033E-28" ixz="2.4805E-28" iyy="6.8927E-13" iyz="-3.5387E-24" izz="1.377E-12" />
    </inertial>
    <visual>
      <origin rpy="0 0 0" xyz="0 0 0"/>
      <geometry>
        <box size="0.0113 0.0105 0.001"/>
      </geometry>
      <material name="red"/>
    </visual>
    <collision>
      <origin rpy="0 0 0" xyz="0 0 0"/>
      <geometry>
        <box size="0.0183 0.0175 0.001"/>
      </geometry>
    </collision>
  </link>
  
<joint name="sensor_05_06_fixed" type="fixed" dont_collapse="true">
    <origin xyz="0.0572 0.0128 0.093" rpy="0 0 0" />
    <parent link="trunk" />
    <child link="sensor_05_06" />
    <axis xyz="0 0 0" />
  </joint>


<link name="sensor_05_07">
    <inertial>
      <origin xyz="0 -1.6653E-16 -5E-05" rpy="0 0 0" />
      <mass value="9.18E-07" />
      <inertia ixx="6.8927E-13" ixy="5.5033E-28" ixz="2.4805E-28" iyy="6.8927E-13" iyz="-3.5387E-24" izz="1.377E-12" />
    </inertial>
    <visual>
      <origin rpy="0 0 0" xyz="0 0 0"/>
      <geometry>
        <box size="0.0113 0.0105 0.001"/>
      </geometry>
      <material name="red"/>
    </visual>
    <collision>
      <origin rpy="0 0 0" xyz="0 0 0"/>
      <geometry>
        <box size="0.0183 0.0175 0.001"/>
      </geometry>
    </collision>
  </link>
  
<joint name="sensor_05_07_fixed" type="fixed" dont_collapse="true">
    <origin xyz="0.0572 -0.0 0.093" rpy="0 0 0" />
    <parent link="trunk" />
    <child link="sensor_05_07" />
    <axis xyz="0 0 0" />
  </joint>


<link name="sensor_05_08">
    <inertial>
      <origin xyz="0 -1.6653E-16 -5E-05" rpy="0 0 0" />
      <mass value="9.18E-07" />
      <inertia ixx="6.8927E-13" ixy="5.5033E-28" ixz="2.4805E-28" iyy="6.8927E-13" iyz="-3.5387E-24" izz="1.377E-12" />
    </inertial>
    <visual>
      <origin rpy="0 0 0" xyz="0 0 0"/>
      <geometry>
        <box size="0.0113 0.0105 0.001"/>
      </geometry>
      <material name="red"/>
    </visual>
    <collision>
      <origin rpy="0 0 0" xyz="0 0 0"/>
      <geometry>
        <box size="0.0183 0.0175 0.001"/>
      </geometry>
    </collision>
  </link>
  
<joint name="sensor_05_08_fixed" type="fixed" dont_collapse="true">
    <origin xyz="0.0572 -0.0128 0.093" rpy="0 0 0" />
    <parent link="trunk" />
    <child link="sensor_05_08" />
    <axis xyz="0 0 0" />
  </joint>


<link name="sensor_05_09">
    <inertial>
      <origin xyz="0 -1.6653E-16 -5E-05" rpy="0 0 0" />
      <mass value="9.18E-07" />
      <inertia ixx="6.8927E-13" ixy="5.5033E-28" ixz="2.4805E-28" iyy="6.8927E-13" iyz="-3.5387E-24" izz="1.377E-12" />
    </inertial>
    <visual>
      <origin rpy="0 0 0" xyz="0 0 0"/>
      <geometry>
        <box size="0.0113 0.0105 0.001"/>
      </geometry>
      <material name="red"/>
    </visual>
    <collision>
      <origin rpy="0 0 0" xyz="0 0 0"/>
      <geometry>
        <box size="0.0183 0.0175 0.001"/>
      </geometry>
    </collision>
  </link>
  
<joint name="sensor_05_09_fixed" type="fixed" dont_collapse="true">
    <origin xyz="0.0572 -0.0256 0.093" rpy="0 0 0" />
    <parent link="trunk" />
    <child link="sensor_05_09" />
    <axis xyz="0 0 0" />
  </joint>


<link name="sensor_05_10">
    <inertial>
      <origin xyz="0 -1.6653E-16 -5E-05" rpy="0 0 0" />
      <mass value="9.18E-07" />
      <inertia ixx="6.8927E-13" ixy="5.5033E-28" ixz="2.4805E-28" iyy="6.8927E-13" iyz="-3.5387E-24" izz="1.377E-12" />
    </inertial>
    <visual>
      <origin rpy="0 0 0" xyz="0 0 0"/>
      <geometry>
        <box size="0.0113 0.0105 0.001"/>
      </geometry>
      <material name="red"/>
    </visual>
    <collision>
      <origin rpy="0 0 0" xyz="0 0 0"/>
      <geometry>
        <box size="0.0183 0.0175 0.001"/>
      </geometry>
    </collision>
  </link>
  
<joint name="sensor_05_10_fixed" type="fixed" dont_collapse="true">
    <origin xyz="0.0572 -0.0384 0.093" rpy="0 0 0" />
    <parent link="trunk" />
    <child link="sensor_05_10" />
    <axis xyz="0 0 0" />
  </joint>


<link name="sensor_05_11">
    <inertial>
      <origin xyz="0 -1.6653E-16 -5E-05" rpy="0 0 0" />
      <mass value="9.18E-07" />
      <inertia ixx="6.8927E-13" ixy="5.5033E-28" ixz="2.4805E-28" iyy="6.8927E-13" iyz="-3.5387E-24" izz="1.377E-12" />
    </inertial>
    <visual>
      <origin rpy="0 0 0" xyz="0 0 0"/>
      <geometry>
        <box size="0.0113 0.0105 0.001"/>
      </geometry>
      <material name="red"/>
    </visual>
    <collision>
      <origin rpy="0 0 0" xyz="0 0 0"/>
      <geometry>
        <box size="0.0183 0.0175 0.001"/>
      </geometry>
    </collision>
  </link>
  
<joint name="sensor_05_11_fixed" type="fixed" dont_collapse="true">
    <origin xyz="0.0572 -0.0512 0.093" rpy="0 0 0" />
    <parent link="trunk" />
    <child link="sensor_05_11" />
    <axis xyz="0 0 0" />
  </joint>


<link name="sensor_05_12">
    <inertial>
      <origin xyz="0 -1.6653E-16 -5E-05" rpy="0 0 0" />
      <mass value="9.18E-07" />
      <inertia ixx="6.8927E-13" ixy="5.5033E-28" ixz="2.4805E-28" iyy="6.8927E-13" iyz="-3.5387E-24" izz="1.377E-12" />
    </inertial>
    <visual>
      <origin rpy="0 0 0" xyz="0 0 0"/>
      <geometry>
        <box size="0.0113 0.0105 0.001"/>
      </geometry>
      <material name="red"/>
    </visual>
    <collision>
      <origin rpy="0 0 0" xyz="0 0 0"/>
      <geometry>
        <box size="0.0183 0.0175 0.001"/>
      </geometry>
    </collision>
  </link>
  
<joint name="sensor_05_12_fixed" type="fixed" dont_collapse="true">
    <origin xyz="0.0572 -0.064 0.093" rpy="0 0 0" />
    <parent link="trunk" />
    <child link="sensor_05_12" />
    <axis xyz="0 0 0" />
  </joint>


<link name="sensor_05_13">
    <inertial>
      <origin xyz="0 -1.6653E-16 -5E-05" rpy="0 0 0" />
      <mass value="9.18E-07" />
      <inertia ixx="6.8927E-13" ixy="5.5033E-28" ixz="2.4805E-28" iyy="6.8927E-13" iyz="-3.5387E-24" izz="1.377E-12" />
    </inertial>
    <visual>
      <origin rpy="0 0 0" xyz="0 0 0"/>
      <geometry>
        <box size="0.0113 0.0105 0.001"/>
      </geometry>
      <material name="red"/>
    </visual>
    <collision>
      <origin rpy="0 0 0" xyz="0 0 0"/>
      <geometry>
        <box size="0.0183 0.0175 0.001"/>
      </geometry>
    </collision>
  </link>
  
<joint name="sensor_05_13_fixed" type="fixed" dont_collapse="true">
    <origin xyz="0.0572 -0.0768 0.093" rpy="0 0 0" />
    <parent link="trunk" />
    <child link="sensor_05_13" />
    <axis xyz="0 0 0" />
  </joint>


<link name="sensor_06_01">
    <inertial>
      <origin xyz="0 -1.6653E-16 -5E-05" rpy="0 0 0" />
      <mass value="9.18E-07" />
      <inertia ixx="6.8927E-13" ixy="5.5033E-28" ixz="2.4805E-28" iyy="6.8927E-13" iyz="-3.5387E-24" izz="1.377E-12" />
    </inertial>
    <visual>
      <origin rpy="0 0 0" xyz="0 0 0"/>
      <geometry>
        <box size="0.0113 0.0105 0.001"/>
      </geometry>
      <material name="red"/>
    </visual>
    <collision>
      <origin rpy="0 0 0" xyz="0 0 0"/>
      <geometry>
        <box size="0.0183 0.0175 0.001"/>
      </geometry>
    </collision>
  </link>
  
<joint name="sensor_06_01_fixed" type="fixed" dont_collapse="true">
    <origin xyz="0.0429 0.0768 0.093" rpy="0 0 0" />
    <parent link="trunk" />
    <child link="sensor_06_01" />
    <axis xyz="0 0 0" />
  </joint>


<link name="sensor_06_02">
    <inertial>
      <origin xyz="0 -1.6653E-16 -5E-05" rpy="0 0 0" />
      <mass value="9.18E-07" />
      <inertia ixx="6.8927E-13" ixy="5.5033E-28" ixz="2.4805E-28" iyy="6.8927E-13" iyz="-3.5387E-24" izz="1.377E-12" />
    </inertial>
    <visual>
      <origin rpy="0 0 0" xyz="0 0 0"/>
      <geometry>
        <box size="0.0113 0.0105 0.001"/>
      </geometry>
      <material name="red"/>
    </visual>
    <collision>
      <origin rpy="0 0 0" xyz="0 0 0"/>
      <geometry>
        <box size="0.0183 0.0175 0.001"/>
      </geometry>
    </collision>
  </link>
  
<joint name="sensor_06_02_fixed" type="fixed" dont_collapse="true">
    <origin xyz="0.0429 0.064 0.093" rpy="0 0 0" />
    <parent link="trunk" />
    <child link="sensor_06_02" />
    <axis xyz="0 0 0" />
  </joint>


<link name="sensor_06_03">
    <inertial>
      <origin xyz="0 -1.6653E-16 -5E-05" rpy="0 0 0" />
      <mass value="9.18E-07" />
      <inertia ixx="6.8927E-13" ixy="5.5033E-28" ixz="2.4805E-28" iyy="6.8927E-13" iyz="-3.5387E-24" izz="1.377E-12" />
    </inertial>
    <visual>
      <origin rpy="0 0 0" xyz="0 0 0"/>
      <geometry>
        <box size="0.0113 0.0105 0.001"/>
      </geometry>
      <material name="red"/>
    </visual>
    <collision>
      <origin rpy="0 0 0" xyz="0 0 0"/>
      <geometry>
        <box size="0.0183 0.0175 0.001"/>
      </geometry>
    </collision>
  </link>
  
<joint name="sensor_06_03_fixed" type="fixed" dont_collapse="true">
    <origin xyz="0.0429 0.0512 0.093" rpy="0 0 0" />
    <parent link="trunk" />
    <child link="sensor_06_03" />
    <axis xyz="0 0 0" />
  </joint>


<link name="sensor_06_04">
    <inertial>
      <origin xyz="0 -1.6653E-16 -5E-05" rpy="0 0 0" />
      <mass value="9.18E-07" />
      <inertia ixx="6.8927E-13" ixy="5.5033E-28" ixz="2.4805E-28" iyy="6.8927E-13" iyz="-3.5387E-24" izz="1.377E-12" />
    </inertial>
    <visual>
      <origin rpy="0 0 0" xyz="0 0 0"/>
      <geometry>
        <box size="0.0113 0.0105 0.001"/>
      </geometry>
      <material name="red"/>
    </visual>
    <collision>
      <origin rpy="0 0 0" xyz="0 0 0"/>
      <geometry>
        <box size="0.0183 0.0175 0.001"/>
      </geometry>
    </collision>
  </link>
  
<joint name="sensor_06_04_fixed" type="fixed" dont_collapse="true">
    <origin xyz="0.0429 0.0384 0.093" rpy="0 0 0" />
    <parent link="trunk" />
    <child link="sensor_06_04" />
    <axis xyz="0 0 0" />
  </joint>


<link name="sensor_06_05">
    <inertial>
      <origin xyz="0 -1.6653E-16 -5E-05" rpy="0 0 0" />
      <mass value="9.18E-07" />
      <inertia ixx="6.8927E-13" ixy="5.5033E-28" ixz="2.4805E-28" iyy="6.8927E-13" iyz="-3.5387E-24" izz="1.377E-12" />
    </inertial>
    <visual>
      <origin rpy="0 0 0" xyz="0 0 0"/>
      <geometry>
        <box size="0.0113 0.0105 0.001"/>
      </geometry>
      <material name="red"/>
    </visual>
    <collision>
      <origin rpy="0 0 0" xyz="0 0 0"/>
      <geometry>
        <box size="0.0183 0.0175 0.001"/>
      </geometry>
    </collision>
  </link>
  
<joint name="sensor_06_05_fixed" type="fixed" dont_collapse="true">
    <origin xyz="0.0429 0.0256 0.093" rpy="0 0 0" />
    <parent link="trunk" />
    <child link="sensor_06_05" />
    <axis xyz="0 0 0" />
  </joint>


<link name="sensor_06_06">
    <inertial>
      <origin xyz="0 -1.6653E-16 -5E-05" rpy="0 0 0" />
      <mass value="9.18E-07" />
      <inertia ixx="6.8927E-13" ixy="5.5033E-28" ixz="2.4805E-28" iyy="6.8927E-13" iyz="-3.5387E-24" izz="1.377E-12" />
    </inertial>
    <visual>
      <origin rpy="0 0 0" xyz="0 0 0"/>
      <geometry>
        <box size="0.0113 0.0105 0.001"/>
      </geometry>
      <material name="red"/>
    </visual>
    <collision>
      <origin rpy="0 0 0" xyz="0 0 0"/>
      <geometry>
        <box size="0.0183 0.0175 0.001"/>
      </geometry>
    </collision>
  </link>
  
<joint name="sensor_06_06_fixed" type="fixed" dont_collapse="true">
    <origin xyz="0.0429 0.0128 0.093" rpy="0 0 0" />
    <parent link="trunk" />
    <child link="sensor_06_06" />
    <axis xyz="0 0 0" />
  </joint>


<link name="sensor_06_07">
    <inertial>
      <origin xyz="0 -1.6653E-16 -5E-05" rpy="0 0 0" />
      <mass value="9.18E-07" />
      <inertia ixx="6.8927E-13" ixy="5.5033E-28" ixz="2.4805E-28" iyy="6.8927E-13" iyz="-3.5387E-24" izz="1.377E-12" />
    </inertial>
    <visual>
      <origin rpy="0 0 0" xyz="0 0 0"/>
      <geometry>
        <box size="0.0113 0.0105 0.001"/>
      </geometry>
      <material name="red"/>
    </visual>
    <collision>
      <origin rpy="0 0 0" xyz="0 0 0"/>
      <geometry>
        <box size="0.0183 0.0175 0.001"/>
      </geometry>
    </collision>
  </link>
  
<joint name="sensor_06_07_fixed" type="fixed" dont_collapse="true">
    <origin xyz="0.0429 -0.0 0.093" rpy="0 0 0" />
    <parent link="trunk" />
    <child link="sensor_06_07" />
    <axis xyz="0 0 0" />
  </joint>


<link name="sensor_06_08">
    <inertial>
      <origin xyz="0 -1.6653E-16 -5E-05" rpy="0 0 0" />
      <mass value="9.18E-07" />
      <inertia ixx="6.8927E-13" ixy="5.5033E-28" ixz="2.4805E-28" iyy="6.8927E-13" iyz="-3.5387E-24" izz="1.377E-12" />
    </inertial>
    <visual>
      <origin rpy="0 0 0" xyz="0 0 0"/>
      <geometry>
        <box size="0.0113 0.0105 0.001"/>
      </geometry>
      <material name="red"/>
    </visual>
    <collision>
      <origin rpy="0 0 0" xyz="0 0 0"/>
      <geometry>
        <box size="0.0183 0.0175 0.001"/>
      </geometry>
    </collision>
  </link>
  
<joint name="sensor_06_08_fixed" type="fixed" dont_collapse="true">
    <origin xyz="0.0429 -0.0128 0.093" rpy="0 0 0" />
    <parent link="trunk" />
    <child link="sensor_06_08" />
    <axis xyz="0 0 0" />
  </joint>


<link name="sensor_06_09">
    <inertial>
      <origin xyz="0 -1.6653E-16 -5E-05" rpy="0 0 0" />
      <mass value="9.18E-07" />
      <inertia ixx="6.8927E-13" ixy="5.5033E-28" ixz="2.4805E-28" iyy="6.8927E-13" iyz="-3.5387E-24" izz="1.377E-12" />
    </inertial>
    <visual>
      <origin rpy="0 0 0" xyz="0 0 0"/>
      <geometry>
        <box size="0.0113 0.0105 0.001"/>
      </geometry>
      <material name="red"/>
    </visual>
    <collision>
      <origin rpy="0 0 0" xyz="0 0 0"/>
      <geometry>
        <box size="0.0183 0.0175 0.001"/>
      </geometry>
    </collision>
  </link>
  
<joint name="sensor_06_09_fixed" type="fixed" dont_collapse="true">
    <origin xyz="0.0429 -0.0256 0.093" rpy="0 0 0" />
    <parent link="trunk" />
    <child link="sensor_06_09" />
    <axis xyz="0 0 0" />
  </joint>


<link name="sensor_06_10">
    <inertial>
      <origin xyz="0 -1.6653E-16 -5E-05" rpy="0 0 0" />
      <mass value="9.18E-07" />
      <inertia ixx="6.8927E-13" ixy="5.5033E-28" ixz="2.4805E-28" iyy="6.8927E-13" iyz="-3.5387E-24" izz="1.377E-12" />
    </inertial>
    <visual>
      <origin rpy="0 0 0" xyz="0 0 0"/>
      <geometry>
        <box size="0.0113 0.0105 0.001"/>
      </geometry>
      <material name="red"/>
    </visual>
    <collision>
      <origin rpy="0 0 0" xyz="0 0 0"/>
      <geometry>
        <box size="0.0183 0.0175 0.001"/>
      </geometry>
    </collision>
  </link>
  
<joint name="sensor_06_10_fixed" type="fixed" dont_collapse="true">
    <origin xyz="0.0429 -0.0384 0.093" rpy="0 0 0" />
    <parent link="trunk" />
    <child link="sensor_06_10" />
    <axis xyz="0 0 0" />
  </joint>


<link name="sensor_06_11">
    <inertial>
      <origin xyz="0 -1.6653E-16 -5E-05" rpy="0 0 0" />
      <mass value="9.18E-07" />
      <inertia ixx="6.8927E-13" ixy="5.5033E-28" ixz="2.4805E-28" iyy="6.8927E-13" iyz="-3.5387E-24" izz="1.377E-12" />
    </inertial>
    <visual>
      <origin rpy="0 0 0" xyz="0 0 0"/>
      <geometry>
        <box size="0.0113 0.0105 0.001"/>
      </geometry>
      <material name="red"/>
    </visual>
    <collision>
      <origin rpy="0 0 0" xyz="0 0 0"/>
      <geometry>
        <box size="0.0183 0.0175 0.001"/>
      </geometry>
    </collision>
  </link>
  
<joint name="sensor_06_11_fixed" type="fixed" dont_collapse="true">
    <origin xyz="0.0429 -0.0512 0.093" rpy="0 0 0" />
    <parent link="trunk" />
    <child link="sensor_06_11" />
    <axis xyz="0 0 0" />
  </joint>


<link name="sensor_06_12">
    <inertial>
      <origin xyz="0 -1.6653E-16 -5E-05" rpy="0 0 0" />
      <mass value="9.18E-07" />
      <inertia ixx="6.8927E-13" ixy="5.5033E-28" ixz="2.4805E-28" iyy="6.8927E-13" iyz="-3.5387E-24" izz="1.377E-12" />
    </inertial>
    <visual>
      <origin rpy="0 0 0" xyz="0 0 0"/>
      <geometry>
        <box size="0.0113 0.0105 0.001"/>
      </geometry>
      <material name="red"/>
    </visual>
    <collision>
      <origin rpy="0 0 0" xyz="0 0 0"/>
      <geometry>
        <box size="0.0183 0.0175 0.001"/>
      </geometry>
    </collision>
  </link>
  
<joint name="sensor_06_12_fixed" type="fixed" dont_collapse="true">
    <origin xyz="0.0429 -0.064 0.093" rpy="0 0 0" />
    <parent link="trunk" />
    <child link="sensor_06_12" />
    <axis xyz="0 0 0" />
  </joint>


<link name="sensor_06_13">
    <inertial>
      <origin xyz="0 -1.6653E-16 -5E-05" rpy="0 0 0" />
      <mass value="9.18E-07" />
      <inertia ixx="6.8927E-13" ixy="5.5033E-28" ixz="2.4805E-28" iyy="6.8927E-13" iyz="-3.5387E-24" izz="1.377E-12" />
    </inertial>
    <visual>
      <origin rpy="0 0 0" xyz="0 0 0"/>
      <geometry>
        <box size="0.0113 0.0105 0.001"/>
      </geometry>
      <material name="red"/>
    </visual>
    <collision>
      <origin rpy="0 0 0" xyz="0 0 0"/>
      <geometry>
        <box size="0.0183 0.0175 0.001"/>
      </geometry>
    </collision>
  </link>
  
<joint name="sensor_06_13_fixed" type="fixed" dont_collapse="true">
    <origin xyz="0.0429 -0.0768 0.093" rpy="0 0 0" />
    <parent link="trunk" />
    <child link="sensor_06_13" />
    <axis xyz="0 0 0" />
  </joint>


<link name="sensor_07_01">
    <inertial>
      <origin xyz="0 -1.6653E-16 -5E-05" rpy="0 0 0" />
      <mass value="9.18E-07" />
      <inertia ixx="6.8927E-13" ixy="5.5033E-28" ixz="2.4805E-28" iyy="6.8927E-13" iyz="-3.5387E-24" izz="1.377E-12" />
    </inertial>
    <visual>
      <origin rpy="0 0 0" xyz="0 0 0"/>
      <geometry>
        <box size="0.0113 0.0105 0.001"/>
      </geometry>
      <material name="red"/>
    </visual>
    <collision>
      <origin rpy="0 0 0" xyz="0 0 0"/>
      <geometry>
        <box size="0.0183 0.0175 0.001"/>
      </geometry>
    </collision>
  </link>
  
<joint name="sensor_07_01_fixed" type="fixed" dont_collapse="true">
    <origin xyz="0.0286 0.0768 0.093" rpy="0 0 0" />
    <parent link="trunk" />
    <child link="sensor_07_01" />
    <axis xyz="0 0 0" />
  </joint>


<link name="sensor_07_02">
    <inertial>
      <origin xyz="0 -1.6653E-16 -5E-05" rpy="0 0 0" />
      <mass value="9.18E-07" />
      <inertia ixx="6.8927E-13" ixy="5.5033E-28" ixz="2.4805E-28" iyy="6.8927E-13" iyz="-3.5387E-24" izz="1.377E-12" />
    </inertial>
    <visual>
      <origin rpy="0 0 0" xyz="0 0 0"/>
      <geometry>
        <box size="0.0113 0.0105 0.001"/>
      </geometry>
      <material name="red"/>
    </visual>
    <collision>
      <origin rpy="0 0 0" xyz="0 0 0"/>
      <geometry>
        <box size="0.0183 0.0175 0.001"/>
      </geometry>
    </collision>
  </link>
  
<joint name="sensor_07_02_fixed" type="fixed" dont_collapse="true">
    <origin xyz="0.0286 0.064 0.093" rpy="0 0 0" />
    <parent link="trunk" />
    <child link="sensor_07_02" />
    <axis xyz="0 0 0" />
  </joint>


<link name="sensor_07_03">
    <inertial>
      <origin xyz="0 -1.6653E-16 -5E-05" rpy="0 0 0" />
      <mass value="9.18E-07" />
      <inertia ixx="6.8927E-13" ixy="5.5033E-28" ixz="2.4805E-28" iyy="6.8927E-13" iyz="-3.5387E-24" izz="1.377E-12" />
    </inertial>
    <visual>
      <origin rpy="0 0 0" xyz="0 0 0"/>
      <geometry>
        <box size="0.0113 0.0105 0.001"/>
      </geometry>
      <material name="red"/>
    </visual>
    <collision>
      <origin rpy="0 0 0" xyz="0 0 0"/>
      <geometry>
        <box size="0.0183 0.0175 0.001"/>
      </geometry>
    </collision>
  </link>
  
<joint name="sensor_07_03_fixed" type="fixed" dont_collapse="true">
    <origin xyz="0.0286 0.0512 0.093" rpy="0 0 0" />
    <parent link="trunk" />
    <child link="sensor_07_03" />
    <axis xyz="0 0 0" />
  </joint>


<link name="sensor_07_04">
    <inertial>
      <origin xyz="0 -1.6653E-16 -5E-05" rpy="0 0 0" />
      <mass value="9.18E-07" />
      <inertia ixx="6.8927E-13" ixy="5.5033E-28" ixz="2.4805E-28" iyy="6.8927E-13" iyz="-3.5387E-24" izz="1.377E-12" />
    </inertial>
    <visual>
      <origin rpy="0 0 0" xyz="0 0 0"/>
      <geometry>
        <box size="0.0113 0.0105 0.001"/>
      </geometry>
      <material name="red"/>
    </visual>
    <collision>
      <origin rpy="0 0 0" xyz="0 0 0"/>
      <geometry>
        <box size="0.0183 0.0175 0.001"/>
      </geometry>
    </collision>
  </link>
  
<joint name="sensor_07_04_fixed" type="fixed" dont_collapse="true">
    <origin xyz="0.0286 0.0384 0.093" rpy="0 0 0" />
    <parent link="trunk" />
    <child link="sensor_07_04" />
    <axis xyz="0 0 0" />
  </joint>


<link name="sensor_07_05">
    <inertial>
      <origin xyz="0 -1.6653E-16 -5E-05" rpy="0 0 0" />
      <mass value="9.18E-07" />
      <inertia ixx="6.8927E-13" ixy="5.5033E-28" ixz="2.4805E-28" iyy="6.8927E-13" iyz="-3.5387E-24" izz="1.377E-12" />
    </inertial>
    <visual>
      <origin rpy="0 0 0" xyz="0 0 0"/>
      <geometry>
        <box size="0.0113 0.0105 0.001"/>
      </geometry>
      <material name="red"/>
    </visual>
    <collision>
      <origin rpy="0 0 0" xyz="0 0 0"/>
      <geometry>
        <box size="0.0183 0.0175 0.001"/>
      </geometry>
    </collision>
  </link>
  
<joint name="sensor_07_05_fixed" type="fixed" dont_collapse="true">
    <origin xyz="0.0286 0.0256 0.093" rpy="0 0 0" />
    <parent link="trunk" />
    <child link="sensor_07_05" />
    <axis xyz="0 0 0" />
  </joint>


<link name="sensor_07_06">
    <inertial>
      <origin xyz="0 -1.6653E-16 -5E-05" rpy="0 0 0" />
      <mass value="9.18E-07" />
      <inertia ixx="6.8927E-13" ixy="5.5033E-28" ixz="2.4805E-28" iyy="6.8927E-13" iyz="-3.5387E-24" izz="1.377E-12" />
    </inertial>
    <visual>
      <origin rpy="0 0 0" xyz="0 0 0"/>
      <geometry>
        <box size="0.0113 0.0105 0.001"/>
      </geometry>
      <material name="red"/>
    </visual>
    <collision>
      <origin rpy="0 0 0" xyz="0 0 0"/>
      <geometry>
        <box size="0.0183 0.0175 0.001"/>
      </geometry>
    </collision>
  </link>
  
<joint name="sensor_07_06_fixed" type="fixed" dont_collapse="true">
    <origin xyz="0.0286 0.0128 0.093" rpy="0 0 0" />
    <parent link="trunk" />
    <child link="sensor_07_06" />
    <axis xyz="0 0 0" />
  </joint>


<link name="sensor_07_07">
    <inertial>
      <origin xyz="0 -1.6653E-16 -5E-05" rpy="0 0 0" />
      <mass value="9.18E-07" />
      <inertia ixx="6.8927E-13" ixy="5.5033E-28" ixz="2.4805E-28" iyy="6.8927E-13" iyz="-3.5387E-24" izz="1.377E-12" />
    </inertial>
    <visual>
      <origin rpy="0 0 0" xyz="0 0 0"/>
      <geometry>
        <box size="0.0113 0.0105 0.001"/>
      </geometry>
      <material name="red"/>
    </visual>
    <collision>
      <origin rpy="0 0 0" xyz="0 0 0"/>
      <geometry>
        <box size="0.0183 0.0175 0.001"/>
      </geometry>
    </collision>
  </link>
  
<joint name="sensor_07_07_fixed" type="fixed" dont_collapse="true">
    <origin xyz="0.0286 -0.0 0.093" rpy="0 0 0" />
    <parent link="trunk" />
    <child link="sensor_07_07" />
    <axis xyz="0 0 0" />
  </joint>


<link name="sensor_07_08">
    <inertial>
      <origin xyz="0 -1.6653E-16 -5E-05" rpy="0 0 0" />
      <mass value="9.18E-07" />
      <inertia ixx="6.8927E-13" ixy="5.5033E-28" ixz="2.4805E-28" iyy="6.8927E-13" iyz="-3.5387E-24" izz="1.377E-12" />
    </inertial>
    <visual>
      <origin rpy="0 0 0" xyz="0 0 0"/>
      <geometry>
        <box size="0.0113 0.0105 0.001"/>
      </geometry>
      <material name="red"/>
    </visual>
    <collision>
      <origin rpy="0 0 0" xyz="0 0 0"/>
      <geometry>
        <box size="0.0183 0.0175 0.001"/>
      </geometry>
    </collision>
  </link>
  
<joint name="sensor_07_08_fixed" type="fixed" dont_collapse="true">
    <origin xyz="0.0286 -0.0128 0.093" rpy="0 0 0" />
    <parent link="trunk" />
    <child link="sensor_07_08" />
    <axis xyz="0 0 0" />
  </joint>


<link name="sensor_07_09">
    <inertial>
      <origin xyz="0 -1.6653E-16 -5E-05" rpy="0 0 0" />
      <mass value="9.18E-07" />
      <inertia ixx="6.8927E-13" ixy="5.5033E-28" ixz="2.4805E-28" iyy="6.8927E-13" iyz="-3.5387E-24" izz="1.377E-12" />
    </inertial>
    <visual>
      <origin rpy="0 0 0" xyz="0 0 0"/>
      <geometry>
        <box size="0.0113 0.0105 0.001"/>
      </geometry>
      <material name="red"/>
    </visual>
    <collision>
      <origin rpy="0 0 0" xyz="0 0 0"/>
      <geometry>
        <box size="0.0183 0.0175 0.001"/>
      </geometry>
    </collision>
  </link>
  
<joint name="sensor_07_09_fixed" type="fixed" dont_collapse="true">
    <origin xyz="0.0286 -0.0256 0.093" rpy="0 0 0" />
    <parent link="trunk" />
    <child link="sensor_07_09" />
    <axis xyz="0 0 0" />
  </joint>


<link name="sensor_07_10">
    <inertial>
      <origin xyz="0 -1.6653E-16 -5E-05" rpy="0 0 0" />
      <mass value="9.18E-07" />
      <inertia ixx="6.8927E-13" ixy="5.5033E-28" ixz="2.4805E-28" iyy="6.8927E-13" iyz="-3.5387E-24" izz="1.377E-12" />
    </inertial>
    <visual>
      <origin rpy="0 0 0" xyz="0 0 0"/>
      <geometry>
        <box size="0.0113 0.0105 0.001"/>
      </geometry>
      <material name="red"/>
    </visual>
    <collision>
      <origin rpy="0 0 0" xyz="0 0 0"/>
      <geometry>
        <box size="0.0183 0.0175 0.001"/>
      </geometry>
    </collision>
  </link>
  
<joint name="sensor_07_10_fixed" type="fixed" dont_collapse="true">
    <origin xyz="0.0286 -0.0384 0.093" rpy="0 0 0" />
    <parent link="trunk" />
    <child link="sensor_07_10" />
    <axis xyz="0 0 0" />
  </joint>


<link name="sensor_07_11">
    <inertial>
      <origin xyz="0 -1.6653E-16 -5E-05" rpy="0 0 0" />
      <mass value="9.18E-07" />
      <inertia ixx="6.8927E-13" ixy="5.5033E-28" ixz="2.4805E-28" iyy="6.8927E-13" iyz="-3.5387E-24" izz="1.377E-12" />
    </inertial>
    <visual>
      <origin rpy="0 0 0" xyz="0 0 0"/>
      <geometry>
        <box size="0.0113 0.0105 0.001"/>
      </geometry>
      <material name="red"/>
    </visual>
    <collision>
      <origin rpy="0 0 0" xyz="0 0 0"/>
      <geometry>
        <box size="0.0183 0.0175 0.001"/>
      </geometry>
    </collision>
  </link>
  
<joint name="sensor_07_11_fixed" type="fixed" dont_collapse="true">
    <origin xyz="0.0286 -0.0512 0.093" rpy="0 0 0" />
    <parent link="trunk" />
    <child link="sensor_07_11" />
    <axis xyz="0 0 0" />
  </joint>


<link name="sensor_07_12">
    <inertial>
      <origin xyz="0 -1.6653E-16 -5E-05" rpy="0 0 0" />
      <mass value="9.18E-07" />
      <inertia ixx="6.8927E-13" ixy="5.5033E-28" ixz="2.4805E-28" iyy="6.8927E-13" iyz="-3.5387E-24" izz="1.377E-12" />
    </inertial>
    <visual>
      <origin rpy="0 0 0" xyz="0 0 0"/>
      <geometry>
        <box size="0.0113 0.0105 0.001"/>
      </geometry>
      <material name="red"/>
    </visual>
    <collision>
      <origin rpy="0 0 0" xyz="0 0 0"/>
      <geometry>
        <box size="0.0183 0.0175 0.001"/>
      </geometry>
    </collision>
  </link>
  
<joint name="sensor_07_12_fixed" type="fixed" dont_collapse="true">
    <origin xyz="0.0286 -0.064 0.093" rpy="0 0 0" />
    <parent link="trunk" />
    <child link="sensor_07_12" />
    <axis xyz="0 0 0" />
  </joint>


<link name="sensor_07_13">
    <inertial>
      <origin xyz="0 -1.6653E-16 -5E-05" rpy="0 0 0" />
      <mass value="9.18E-07" />
      <inertia ixx="6.8927E-13" ixy="5.5033E-28" ixz="2.4805E-28" iyy="6.8927E-13" iyz="-3.5387E-24" izz="1.377E-12" />
    </inertial>
    <visual>
      <origin rpy="0 0 0" xyz="0 0 0"/>
      <geometry>
        <box size="0.0113 0.0105 0.001"/>
      </geometry>
      <material name="red"/>
    </visual>
    <collision>
      <origin rpy="0 0 0" xyz="0 0 0"/>
      <geometry>
        <box size="0.0183 0.0175 0.001"/>
      </geometry>
    </collision>
  </link>
  
<joint name="sensor_07_13_fixed" type="fixed" dont_collapse="true">
    <origin xyz="0.0286 -0.0768 0.093" rpy="0 0 0" />
    <parent link="trunk" />
    <child link="sensor_07_13" />
    <axis xyz="0 0 0" />
  </joint>


<link name="sensor_08_01">
    <inertial>
      <origin xyz="0 -1.6653E-16 -5E-05" rpy="0 0 0" />
      <mass value="9.18E-07" />
      <inertia ixx="6.8927E-13" ixy="5.5033E-28" ixz="2.4805E-28" iyy="6.8927E-13" iyz="-3.5387E-24" izz="1.377E-12" />
    </inertial>
    <visual>
      <origin rpy="0 0 0" xyz="0 0 0"/>
      <geometry>
        <box size="0.0113 0.0105 0.001"/>
      </geometry>
      <material name="red"/>
    </visual>
    <collision>
      <origin rpy="0 0 0" xyz="0 0 0"/>
      <geometry>
        <box size="0.0183 0.0175 0.001"/>
      </geometry>
    </collision>
  </link>
  
<joint name="sensor_08_01_fixed" type="fixed" dont_collapse="true">
    <origin xyz="0.0143 0.0768 0.093" rpy="0 0 0" />
    <parent link="trunk" />
    <child link="sensor_08_01" />
    <axis xyz="0 0 0" />
  </joint>


<link name="sensor_08_02">
    <inertial>
      <origin xyz="0 -1.6653E-16 -5E-05" rpy="0 0 0" />
      <mass value="9.18E-07" />
      <inertia ixx="6.8927E-13" ixy="5.5033E-28" ixz="2.4805E-28" iyy="6.8927E-13" iyz="-3.5387E-24" izz="1.377E-12" />
    </inertial>
    <visual>
      <origin rpy="0 0 0" xyz="0 0 0"/>
      <geometry>
        <box size="0.0113 0.0105 0.001"/>
      </geometry>
      <material name="red"/>
    </visual>
    <collision>
      <origin rpy="0 0 0" xyz="0 0 0"/>
      <geometry>
        <box size="0.0183 0.0175 0.001"/>
      </geometry>
    </collision>
  </link>
  
<joint name="sensor_08_02_fixed" type="fixed" dont_collapse="true">
    <origin xyz="0.0143 0.064 0.093" rpy="0 0 0" />
    <parent link="trunk" />
    <child link="sensor_08_02" />
    <axis xyz="0 0 0" />
  </joint>


<link name="sensor_08_03">
    <inertial>
      <origin xyz="0 -1.6653E-16 -5E-05" rpy="0 0 0" />
      <mass value="9.18E-07" />
      <inertia ixx="6.8927E-13" ixy="5.5033E-28" ixz="2.4805E-28" iyy="6.8927E-13" iyz="-3.5387E-24" izz="1.377E-12" />
    </inertial>
    <visual>
      <origin rpy="0 0 0" xyz="0 0 0"/>
      <geometry>
        <box size="0.0113 0.0105 0.001"/>
      </geometry>
      <material name="red"/>
    </visual>
    <collision>
      <origin rpy="0 0 0" xyz="0 0 0"/>
      <geometry>
        <box size="0.0183 0.0175 0.001"/>
      </geometry>
    </collision>
  </link>
  
<joint name="sensor_08_03_fixed" type="fixed" dont_collapse="true">
    <origin xyz="0.0143 0.0512 0.093" rpy="0 0 0" />
    <parent link="trunk" />
    <child link="sensor_08_03" />
    <axis xyz="0 0 0" />
  </joint>


<link name="sensor_08_04">
    <inertial>
      <origin xyz="0 -1.6653E-16 -5E-05" rpy="0 0 0" />
      <mass value="9.18E-07" />
      <inertia ixx="6.8927E-13" ixy="5.5033E-28" ixz="2.4805E-28" iyy="6.8927E-13" iyz="-3.5387E-24" izz="1.377E-12" />
    </inertial>
    <visual>
      <origin rpy="0 0 0" xyz="0 0 0"/>
      <geometry>
        <box size="0.0113 0.0105 0.001"/>
      </geometry>
      <material name="red"/>
    </visual>
    <collision>
      <origin rpy="0 0 0" xyz="0 0 0"/>
      <geometry>
        <box size="0.0183 0.0175 0.001"/>
      </geometry>
    </collision>
  </link>
  
<joint name="sensor_08_04_fixed" type="fixed" dont_collapse="true">
    <origin xyz="0.0143 0.0384 0.093" rpy="0 0 0" />
    <parent link="trunk" />
    <child link="sensor_08_04" />
    <axis xyz="0 0 0" />
  </joint>


<link name="sensor_08_05">
    <inertial>
      <origin xyz="0 -1.6653E-16 -5E-05" rpy="0 0 0" />
      <mass value="9.18E-07" />
      <inertia ixx="6.8927E-13" ixy="5.5033E-28" ixz="2.4805E-28" iyy="6.8927E-13" iyz="-3.5387E-24" izz="1.377E-12" />
    </inertial>
    <visual>
      <origin rpy="0 0 0" xyz="0 0 0"/>
      <geometry>
        <box size="0.0113 0.0105 0.001"/>
      </geometry>
      <material name="red"/>
    </visual>
    <collision>
      <origin rpy="0 0 0" xyz="0 0 0"/>
      <geometry>
        <box size="0.0183 0.0175 0.001"/>
      </geometry>
    </collision>
  </link>
  
<joint name="sensor_08_05_fixed" type="fixed" dont_collapse="true">
    <origin xyz="0.0143 0.0256 0.093" rpy="0 0 0" />
    <parent link="trunk" />
    <child link="sensor_08_05" />
    <axis xyz="0 0 0" />
  </joint>


<link name="sensor_08_06">
    <inertial>
      <origin xyz="0 -1.6653E-16 -5E-05" rpy="0 0 0" />
      <mass value="9.18E-07" />
      <inertia ixx="6.8927E-13" ixy="5.5033E-28" ixz="2.4805E-28" iyy="6.8927E-13" iyz="-3.5387E-24" izz="1.377E-12" />
    </inertial>
    <visual>
      <origin rpy="0 0 0" xyz="0 0 0"/>
      <geometry>
        <box size="0.0113 0.0105 0.001"/>
      </geometry>
      <material name="red"/>
    </visual>
    <collision>
      <origin rpy="0 0 0" xyz="0 0 0"/>
      <geometry>
        <box size="0.0183 0.0175 0.001"/>
      </geometry>
    </collision>
  </link>
  
<joint name="sensor_08_06_fixed" type="fixed" dont_collapse="true">
    <origin xyz="0.0143 0.0128 0.093" rpy="0 0 0" />
    <parent link="trunk" />
    <child link="sensor_08_06" />
    <axis xyz="0 0 0" />
  </joint>


<link name="sensor_08_07">
    <inertial>
      <origin xyz="0 -1.6653E-16 -5E-05" rpy="0 0 0" />
      <mass value="9.18E-07" />
      <inertia ixx="6.8927E-13" ixy="5.5033E-28" ixz="2.4805E-28" iyy="6.8927E-13" iyz="-3.5387E-24" izz="1.377E-12" />
    </inertial>
    <visual>
      <origin rpy="0 0 0" xyz="0 0 0"/>
      <geometry>
        <box size="0.0113 0.0105 0.001"/>
      </geometry>
      <material name="red"/>
    </visual>
    <collision>
      <origin rpy="0 0 0" xyz="0 0 0"/>
      <geometry>
        <box size="0.0183 0.0175 0.001"/>
      </geometry>
    </collision>
  </link>
  
<joint name="sensor_08_07_fixed" type="fixed" dont_collapse="true">
    <origin xyz="0.0143 -0.0 0.093" rpy="0 0 0" />
    <parent link="trunk" />
    <child link="sensor_08_07" />
    <axis xyz="0 0 0" />
  </joint>


<link name="sensor_08_08">
    <inertial>
      <origin xyz="0 -1.6653E-16 -5E-05" rpy="0 0 0" />
      <mass value="9.18E-07" />
      <inertia ixx="6.8927E-13" ixy="5.5033E-28" ixz="2.4805E-28" iyy="6.8927E-13" iyz="-3.5387E-24" izz="1.377E-12" />
    </inertial>
    <visual>
      <origin rpy="0 0 0" xyz="0 0 0"/>
      <geometry>
        <box size="0.0113 0.0105 0.001"/>
      </geometry>
      <material name="red"/>
    </visual>
    <collision>
      <origin rpy="0 0 0" xyz="0 0 0"/>
      <geometry>
        <box size="0.0183 0.0175 0.001"/>
      </geometry>
    </collision>
  </link>
  
<joint name="sensor_08_08_fixed" type="fixed" dont_collapse="true">
    <origin xyz="0.0143 -0.0128 0.093" rpy="0 0 0" />
    <parent link="trunk" />
    <child link="sensor_08_08" />
    <axis xyz="0 0 0" />
  </joint>


<link name="sensor_08_09">
    <inertial>
      <origin xyz="0 -1.6653E-16 -5E-05" rpy="0 0 0" />
      <mass value="9.18E-07" />
      <inertia ixx="6.8927E-13" ixy="5.5033E-28" ixz="2.4805E-28" iyy="6.8927E-13" iyz="-3.5387E-24" izz="1.377E-12" />
    </inertial>
    <visual>
      <origin rpy="0 0 0" xyz="0 0 0"/>
      <geometry>
        <box size="0.0113 0.0105 0.001"/>
      </geometry>
      <material name="red"/>
    </visual>
    <collision>
      <origin rpy="0 0 0" xyz="0 0 0"/>
      <geometry>
        <box size="0.0183 0.0175 0.001"/>
      </geometry>
    </collision>
  </link>
  
<joint name="sensor_08_09_fixed" type="fixed" dont_collapse="true">
    <origin xyz="0.0143 -0.0256 0.093" rpy="0 0 0" />
    <parent link="trunk" />
    <child link="sensor_08_09" />
    <axis xyz="0 0 0" />
  </joint>


<link name="sensor_08_10">
    <inertial>
      <origin xyz="0 -1.6653E-16 -5E-05" rpy="0 0 0" />
      <mass value="9.18E-07" />
      <inertia ixx="6.8927E-13" ixy="5.5033E-28" ixz="2.4805E-28" iyy="6.8927E-13" iyz="-3.5387E-24" izz="1.377E-12" />
    </inertial>
    <visual>
      <origin rpy="0 0 0" xyz="0 0 0"/>
      <geometry>
        <box size="0.0113 0.0105 0.001"/>
      </geometry>
      <material name="red"/>
    </visual>
    <collision>
      <origin rpy="0 0 0" xyz="0 0 0"/>
      <geometry>
        <box size="0.0183 0.0175 0.001"/>
      </geometry>
    </collision>
  </link>
  
<joint name="sensor_08_10_fixed" type="fixed" dont_collapse="true">
    <origin xyz="0.0143 -0.0384 0.093" rpy="0 0 0" />
    <parent link="trunk" />
    <child link="sensor_08_10" />
    <axis xyz="0 0 0" />
  </joint>


<link name="sensor_08_11">
    <inertial>
      <origin xyz="0 -1.6653E-16 -5E-05" rpy="0 0 0" />
      <mass value="9.18E-07" />
      <inertia ixx="6.8927E-13" ixy="5.5033E-28" ixz="2.4805E-28" iyy="6.8927E-13" iyz="-3.5387E-24" izz="1.377E-12" />
    </inertial>
    <visual>
      <origin rpy="0 0 0" xyz="0 0 0"/>
      <geometry>
        <box size="0.0113 0.0105 0.001"/>
      </geometry>
      <material name="red"/>
    </visual>
    <collision>
      <origin rpy="0 0 0" xyz="0 0 0"/>
      <geometry>
        <box size="0.0183 0.0175 0.001"/>
      </geometry>
    </collision>
  </link>
  
<joint name="sensor_08_11_fixed" type="fixed" dont_collapse="true">
    <origin xyz="0.0143 -0.0512 0.093" rpy="0 0 0" />
    <parent link="trunk" />
    <child link="sensor_08_11" />
    <axis xyz="0 0 0" />
  </joint>


<link name="sensor_08_12">
    <inertial>
      <origin xyz="0 -1.6653E-16 -5E-05" rpy="0 0 0" />
      <mass value="9.18E-07" />
      <inertia ixx="6.8927E-13" ixy="5.5033E-28" ixz="2.4805E-28" iyy="6.8927E-13" iyz="-3.5387E-24" izz="1.377E-12" />
    </inertial>
    <visual>
      <origin rpy="0 0 0" xyz="0 0 0"/>
      <geometry>
        <box size="0.0113 0.0105 0.001"/>
      </geometry>
      <material name="red"/>
    </visual>
    <collision>
      <origin rpy="0 0 0" xyz="0 0 0"/>
      <geometry>
        <box size="0.0183 0.0175 0.001"/>
      </geometry>
    </collision>
  </link>
  
<joint name="sensor_08_12_fixed" type="fixed" dont_collapse="true">
    <origin xyz="0.0143 -0.064 0.093" rpy="0 0 0" />
    <parent link="trunk" />
    <child link="sensor_08_12" />
    <axis xyz="0 0 0" />
  </joint>


<link name="sensor_08_13">
    <inertial>
      <origin xyz="0 -1.6653E-16 -5E-05" rpy="0 0 0" />
      <mass value="9.18E-07" />
      <inertia ixx="6.8927E-13" ixy="5.5033E-28" ixz="2.4805E-28" iyy="6.8927E-13" iyz="-3.5387E-24" izz="1.377E-12" />
    </inertial>
    <visual>
      <origin rpy="0 0 0" xyz="0 0 0"/>
      <geometry>
        <box size="0.0113 0.0105 0.001"/>
      </geometry>
      <material name="red"/>
    </visual>
    <collision>
      <origin rpy="0 0 0" xyz="0 0 0"/>
      <geometry>
        <box size="0.0183 0.0175 0.001"/>
      </geometry>
    </collision>
  </link>
  
<joint name="sensor_08_13_fixed" type="fixed" dont_collapse="true">
    <origin xyz="0.0143 -0.0768 0.093" rpy="0 0 0" />
    <parent link="trunk" />
    <child link="sensor_08_13" />
    <axis xyz="0 0 0" />
  </joint>


<link name="sensor_09_01">
    <inertial>
      <origin xyz="0 -1.6653E-16 -5E-05" rpy="0 0 0" />
      <mass value="9.18E-07" />
      <inertia ixx="6.8927E-13" ixy="5.5033E-28" ixz="2.4805E-28" iyy="6.8927E-13" iyz="-3.5387E-24" izz="1.377E-12" />
    </inertial>
    <visual>
      <origin rpy="0 0 0" xyz="0 0 0"/>
      <geometry>
        <box size="0.0113 0.0105 0.001"/>
      </geometry>
      <material name="red"/>
    </visual>
    <collision>
      <origin rpy="0 0 0" xyz="0 0 0"/>
      <geometry>
        <box size="0.0183 0.0175 0.001"/>
      </geometry>
    </collision>
  </link>
  
<joint name="sensor_09_01_fixed" type="fixed" dont_collapse="true">
    <origin xyz="0.0 0.0768 0.093" rpy="0 0 0" />
    <parent link="trunk" />
    <child link="sensor_09_01" />
    <axis xyz="0 0 0" />
  </joint>


<link name="sensor_09_02">
    <inertial>
      <origin xyz="0 -1.6653E-16 -5E-05" rpy="0 0 0" />
      <mass value="9.18E-07" />
      <inertia ixx="6.8927E-13" ixy="5.5033E-28" ixz="2.4805E-28" iyy="6.8927E-13" iyz="-3.5387E-24" izz="1.377E-12" />
    </inertial>
    <visual>
      <origin rpy="0 0 0" xyz="0 0 0"/>
      <geometry>
        <box size="0.0113 0.0105 0.001"/>
      </geometry>
      <material name="red"/>
    </visual>
    <collision>
      <origin rpy="0 0 0" xyz="0 0 0"/>
      <geometry>
        <box size="0.0183 0.0175 0.001"/>
      </geometry>
    </collision>
  </link>
  
<joint name="sensor_09_02_fixed" type="fixed" dont_collapse="true">
    <origin xyz="0.0 0.064 0.093" rpy="0 0 0" />
    <parent link="trunk" />
    <child link="sensor_09_02" />
    <axis xyz="0 0 0" />
  </joint>


<link name="sensor_09_03">
    <inertial>
      <origin xyz="0 -1.6653E-16 -5E-05" rpy="0 0 0" />
      <mass value="9.18E-07" />
      <inertia ixx="6.8927E-13" ixy="5.5033E-28" ixz="2.4805E-28" iyy="6.8927E-13" iyz="-3.5387E-24" izz="1.377E-12" />
    </inertial>
    <visual>
      <origin rpy="0 0 0" xyz="0 0 0"/>
      <geometry>
        <box size="0.0113 0.0105 0.001"/>
      </geometry>
      <material name="red"/>
    </visual>
    <collision>
      <origin rpy="0 0 0" xyz="0 0 0"/>
      <geometry>
        <box size="0.0183 0.0175 0.001"/>
      </geometry>
    </collision>
  </link>
  
<joint name="sensor_09_03_fixed" type="fixed" dont_collapse="true">
    <origin xyz="0.0 0.0512 0.093" rpy="0 0 0" />
    <parent link="trunk" />
    <child link="sensor_09_03" />
    <axis xyz="0 0 0" />
  </joint>


<link name="sensor_09_04">
    <inertial>
      <origin xyz="0 -1.6653E-16 -5E-05" rpy="0 0 0" />
      <mass value="9.18E-07" />
      <inertia ixx="6.8927E-13" ixy="5.5033E-28" ixz="2.4805E-28" iyy="6.8927E-13" iyz="-3.5387E-24" izz="1.377E-12" />
    </inertial>
    <visual>
      <origin rpy="0 0 0" xyz="0 0 0"/>
      <geometry>
        <box size="0.0113 0.0105 0.001"/>
      </geometry>
      <material name="red"/>
    </visual>
    <collision>
      <origin rpy="0 0 0" xyz="0 0 0"/>
      <geometry>
        <box size="0.0183 0.0175 0.001"/>
      </geometry>
    </collision>
  </link>
  
<joint name="sensor_09_04_fixed" type="fixed" dont_collapse="true">
    <origin xyz="0.0 0.0384 0.093" rpy="0 0 0" />
    <parent link="trunk" />
    <child link="sensor_09_04" />
    <axis xyz="0 0 0" />
  </joint>


<link name="sensor_09_05">
    <inertial>
      <origin xyz="0 -1.6653E-16 -5E-05" rpy="0 0 0" />
      <mass value="9.18E-07" />
      <inertia ixx="6.8927E-13" ixy="5.5033E-28" ixz="2.4805E-28" iyy="6.8927E-13" iyz="-3.5387E-24" izz="1.377E-12" />
    </inertial>
    <visual>
      <origin rpy="0 0 0" xyz="0 0 0"/>
      <geometry>
        <box size="0.0113 0.0105 0.001"/>
      </geometry>
      <material name="red"/>
    </visual>
    <collision>
      <origin rpy="0 0 0" xyz="0 0 0"/>
      <geometry>
        <box size="0.0183 0.0175 0.001"/>
      </geometry>
    </collision>
  </link>
  
<joint name="sensor_09_05_fixed" type="fixed" dont_collapse="true">
    <origin xyz="0.0 0.0256 0.093" rpy="0 0 0" />
    <parent link="trunk" />
    <child link="sensor_09_05" />
    <axis xyz="0 0 0" />
  </joint>


<link name="sensor_09_06">
    <inertial>
      <origin xyz="0 -1.6653E-16 -5E-05" rpy="0 0 0" />
      <mass value="9.18E-07" />
      <inertia ixx="6.8927E-13" ixy="5.5033E-28" ixz="2.4805E-28" iyy="6.8927E-13" iyz="-3.5387E-24" izz="1.377E-12" />
    </inertial>
    <visual>
      <origin rpy="0 0 0" xyz="0 0 0"/>
      <geometry>
        <box size="0.0113 0.0105 0.001"/>
      </geometry>
      <material name="red"/>
    </visual>
    <collision>
      <origin rpy="0 0 0" xyz="0 0 0"/>
      <geometry>
        <box size="0.0183 0.0175 0.001"/>
      </geometry>
    </collision>
  </link>
  
<joint name="sensor_09_06_fixed" type="fixed" dont_collapse="true">
    <origin xyz="0.0 0.0128 0.093" rpy="0 0 0" />
    <parent link="trunk" />
    <child link="sensor_09_06" />
    <axis xyz="0 0 0" />
  </joint>


<link name="sensor_09_07">
    <inertial>
      <origin xyz="0 -1.6653E-16 -5E-05" rpy="0 0 0" />
      <mass value="9.18E-07" />
      <inertia ixx="6.8927E-13" ixy="5.5033E-28" ixz="2.4805E-28" iyy="6.8927E-13" iyz="-3.5387E-24" izz="1.377E-12" />
    </inertial>
    <visual>
      <origin rpy="0 0 0" xyz="0 0 0"/>
      <geometry>
        <box size="0.0113 0.0105 0.001"/>
      </geometry>
      <material name="red"/>
    </visual>
    <collision>
      <origin rpy="0 0 0" xyz="0 0 0"/>
      <geometry>
        <box size="0.0183 0.0175 0.001"/>
      </geometry>
    </collision>
  </link>
  
<joint name="sensor_09_07_fixed" type="fixed" dont_collapse="true">
    <origin xyz="0.0 -0.0 0.093" rpy="0 0 0" />
    <parent link="trunk" />
    <child link="sensor_09_07" />
    <axis xyz="0 0 0" />
  </joint>


<link name="sensor_09_08">
    <inertial>
      <origin xyz="0 -1.6653E-16 -5E-05" rpy="0 0 0" />
      <mass value="9.18E-07" />
      <inertia ixx="6.8927E-13" ixy="5.5033E-28" ixz="2.4805E-28" iyy="6.8927E-13" iyz="-3.5387E-24" izz="1.377E-12" />
    </inertial>
    <visual>
      <origin rpy="0 0 0" xyz="0 0 0"/>
      <geometry>
        <box size="0.0113 0.0105 0.001"/>
      </geometry>
      <material name="red"/>
    </visual>
    <collision>
      <origin rpy="0 0 0" xyz="0 0 0"/>
      <geometry>
        <box size="0.0183 0.0175 0.001"/>
      </geometry>
    </collision>
  </link>
  
<joint name="sensor_09_08_fixed" type="fixed" dont_collapse="true">
    <origin xyz="0.0 -0.0128 0.093" rpy="0 0 0" />
    <parent link="trunk" />
    <child link="sensor_09_08" />
    <axis xyz="0 0 0" />
  </joint>


<link name="sensor_09_09">
    <inertial>
      <origin xyz="0 -1.6653E-16 -5E-05" rpy="0 0 0" />
      <mass value="9.18E-07" />
      <inertia ixx="6.8927E-13" ixy="5.5033E-28" ixz="2.4805E-28" iyy="6.8927E-13" iyz="-3.5387E-24" izz="1.377E-12" />
    </inertial>
    <visual>
      <origin rpy="0 0 0" xyz="0 0 0"/>
      <geometry>
        <box size="0.0113 0.0105 0.001"/>
      </geometry>
      <material name="red"/>
    </visual>
    <collision>
      <origin rpy="0 0 0" xyz="0 0 0"/>
      <geometry>
        <box size="0.0183 0.0175 0.001"/>
      </geometry>
    </collision>
  </link>
  
<joint name="sensor_09_09_fixed" type="fixed" dont_collapse="true">
    <origin xyz="0.0 -0.0256 0.093" rpy="0 0 0" />
    <parent link="trunk" />
    <child link="sensor_09_09" />
    <axis xyz="0 0 0" />
  </joint>


<link name="sensor_09_10">
    <inertial>
      <origin xyz="0 -1.6653E-16 -5E-05" rpy="0 0 0" />
      <mass value="9.18E-07" />
      <inertia ixx="6.8927E-13" ixy="5.5033E-28" ixz="2.4805E-28" iyy="6.8927E-13" iyz="-3.5387E-24" izz="1.377E-12" />
    </inertial>
    <visual>
      <origin rpy="0 0 0" xyz="0 0 0"/>
      <geometry>
        <box size="0.0113 0.0105 0.001"/>
      </geometry>
      <material name="red"/>
    </visual>
    <collision>
      <origin rpy="0 0 0" xyz="0 0 0"/>
      <geometry>
        <box size="0.0183 0.0175 0.001"/>
      </geometry>
    </collision>
  </link>
  
<joint name="sensor_09_10_fixed" type="fixed" dont_collapse="true">
    <origin xyz="0.0 -0.0384 0.093" rpy="0 0 0" />
    <parent link="trunk" />
    <child link="sensor_09_10" />
    <axis xyz="0 0 0" />
  </joint>


<link name="sensor_09_11">
    <inertial>
      <origin xyz="0 -1.6653E-16 -5E-05" rpy="0 0 0" />
      <mass value="9.18E-07" />
      <inertia ixx="6.8927E-13" ixy="5.5033E-28" ixz="2.4805E-28" iyy="6.8927E-13" iyz="-3.5387E-24" izz="1.377E-12" />
    </inertial>
    <visual>
      <origin rpy="0 0 0" xyz="0 0 0"/>
      <geometry>
        <box size="0.0113 0.0105 0.001"/>
      </geometry>
      <material name="red"/>
    </visual>
    <collision>
      <origin rpy="0 0 0" xyz="0 0 0"/>
      <geometry>
        <box size="0.0183 0.0175 0.001"/>
      </geometry>
    </collision>
  </link>
  
<joint name="sensor_09_11_fixed" type="fixed" dont_collapse="true">
    <origin xyz="0.0 -0.0512 0.093" rpy="0 0 0" />
    <parent link="trunk" />
    <child link="sensor_09_11" />
    <axis xyz="0 0 0" />
  </joint>


<link name="sensor_09_12">
    <inertial>
      <origin xyz="0 -1.6653E-16 -5E-05" rpy="0 0 0" />
      <mass value="9.18E-07" />
      <inertia ixx="6.8927E-13" ixy="5.5033E-28" ixz="2.4805E-28" iyy="6.8927E-13" iyz="-3.5387E-24" izz="1.377E-12" />
    </inertial>
    <visual>
      <origin rpy="0 0 0" xyz="0 0 0"/>
      <geometry>
        <box size="0.0113 0.0105 0.001"/>
      </geometry>
      <material name="red"/>
    </visual>
    <collision>
      <origin rpy="0 0 0" xyz="0 0 0"/>
      <geometry>
        <box size="0.0183 0.0175 0.001"/>
      </geometry>
    </collision>
  </link>
  
<joint name="sensor_09_12_fixed" type="fixed" dont_collapse="true">
    <origin xyz="0.0 -0.064 0.093" rpy="0 0 0" />
    <parent link="trunk" />
    <child link="sensor_09_12" />
    <axis xyz="0 0 0" />
  </joint>


<link name="sensor_09_13">
    <inertial>
      <origin xyz="0 -1.6653E-16 -5E-05" rpy="0 0 0" />
      <mass value="9.18E-07" />
      <inertia ixx="6.8927E-13" ixy="5.5033E-28" ixz="2.4805E-28" iyy="6.8927E-13" iyz="-3.5387E-24" izz="1.377E-12" />
    </inertial>
    <visual>
      <origin rpy="0 0 0" xyz="0 0 0"/>
      <geometry>
        <box size="0.0113 0.0105 0.001"/>
      </geometry>
      <material name="red"/>
    </visual>
    <collision>
      <origin rpy="0 0 0" xyz="0 0 0"/>
      <geometry>
        <box size="0.0183 0.0175 0.001"/>
      </geometry>
    </collision>
  </link>
  
<joint name="sensor_09_13_fixed" type="fixed" dont_collapse="true">
    <origin xyz="0.0 -0.0768 0.093" rpy="0 0 0" />
    <parent link="trunk" />
    <child link="sensor_09_13" />
    <axis xyz="0 0 0" />
  </joint>


<link name="sensor_10_01">
    <inertial>
      <origin xyz="0 -1.6653E-16 -5E-05" rpy="0 0 0" />
      <mass value="9.18E-07" />
      <inertia ixx="6.8927E-13" ixy="5.5033E-28" ixz="2.4805E-28" iyy="6.8927E-13" iyz="-3.5387E-24" izz="1.377E-12" />
    </inertial>
    <visual>
      <origin rpy="0 0 0" xyz="0 0 0"/>
      <geometry>
        <box size="0.0113 0.0105 0.001"/>
      </geometry>
      <material name="red"/>
    </visual>
    <collision>
      <origin rpy="0 0 0" xyz="0 0 0"/>
      <geometry>
        <box size="0.0183 0.0175 0.001"/>
      </geometry>
    </collision>
  </link>
  
<joint name="sensor_10_01_fixed" type="fixed" dont_collapse="true">
    <origin xyz="-0.0143 0.0768 0.093" rpy="0 0 0" />
    <parent link="trunk" />
    <child link="sensor_10_01" />
    <axis xyz="0 0 0" />
  </joint>


<link name="sensor_10_02">
    <inertial>
      <origin xyz="0 -1.6653E-16 -5E-05" rpy="0 0 0" />
      <mass value="9.18E-07" />
      <inertia ixx="6.8927E-13" ixy="5.5033E-28" ixz="2.4805E-28" iyy="6.8927E-13" iyz="-3.5387E-24" izz="1.377E-12" />
    </inertial>
    <visual>
      <origin rpy="0 0 0" xyz="0 0 0"/>
      <geometry>
        <box size="0.0113 0.0105 0.001"/>
      </geometry>
      <material name="red"/>
    </visual>
    <collision>
      <origin rpy="0 0 0" xyz="0 0 0"/>
      <geometry>
        <box size="0.0183 0.0175 0.001"/>
      </geometry>
    </collision>
  </link>
  
<joint name="sensor_10_02_fixed" type="fixed" dont_collapse="true">
    <origin xyz="-0.0143 0.064 0.093" rpy="0 0 0" />
    <parent link="trunk" />
    <child link="sensor_10_02" />
    <axis xyz="0 0 0" />
  </joint>


<link name="sensor_10_03">
    <inertial>
      <origin xyz="0 -1.6653E-16 -5E-05" rpy="0 0 0" />
      <mass value="9.18E-07" />
      <inertia ixx="6.8927E-13" ixy="5.5033E-28" ixz="2.4805E-28" iyy="6.8927E-13" iyz="-3.5387E-24" izz="1.377E-12" />
    </inertial>
    <visual>
      <origin rpy="0 0 0" xyz="0 0 0"/>
      <geometry>
        <box size="0.0113 0.0105 0.001"/>
      </geometry>
      <material name="red"/>
    </visual>
    <collision>
      <origin rpy="0 0 0" xyz="0 0 0"/>
      <geometry>
        <box size="0.0183 0.0175 0.001"/>
      </geometry>
    </collision>
  </link>
  
<joint name="sensor_10_03_fixed" type="fixed" dont_collapse="true">
    <origin xyz="-0.0143 0.0512 0.093" rpy="0 0 0" />
    <parent link="trunk" />
    <child link="sensor_10_03" />
    <axis xyz="0 0 0" />
  </joint>


<link name="sensor_10_04">
    <inertial>
      <origin xyz="0 -1.6653E-16 -5E-05" rpy="0 0 0" />
      <mass value="9.18E-07" />
      <inertia ixx="6.8927E-13" ixy="5.5033E-28" ixz="2.4805E-28" iyy="6.8927E-13" iyz="-3.5387E-24" izz="1.377E-12" />
    </inertial>
    <visual>
      <origin rpy="0 0 0" xyz="0 0 0"/>
      <geometry>
        <box size="0.0113 0.0105 0.001"/>
      </geometry>
      <material name="red"/>
    </visual>
    <collision>
      <origin rpy="0 0 0" xyz="0 0 0"/>
      <geometry>
        <box size="0.0183 0.0175 0.001"/>
      </geometry>
    </collision>
  </link>
  
<joint name="sensor_10_04_fixed" type="fixed" dont_collapse="true">
    <origin xyz="-0.0143 0.0384 0.093" rpy="0 0 0" />
    <parent link="trunk" />
    <child link="sensor_10_04" />
    <axis xyz="0 0 0" />
  </joint>


<link name="sensor_10_05">
    <inertial>
      <origin xyz="0 -1.6653E-16 -5E-05" rpy="0 0 0" />
      <mass value="9.18E-07" />
      <inertia ixx="6.8927E-13" ixy="5.5033E-28" ixz="2.4805E-28" iyy="6.8927E-13" iyz="-3.5387E-24" izz="1.377E-12" />
    </inertial>
    <visual>
      <origin rpy="0 0 0" xyz="0 0 0"/>
      <geometry>
        <box size="0.0113 0.0105 0.001"/>
      </geometry>
      <material name="red"/>
    </visual>
    <collision>
      <origin rpy="0 0 0" xyz="0 0 0"/>
      <geometry>
        <box size="0.0183 0.0175 0.001"/>
      </geometry>
    </collision>
  </link>
  
<joint name="sensor_10_05_fixed" type="fixed" dont_collapse="true">
    <origin xyz="-0.0143 0.0256 0.093" rpy="0 0 0" />
    <parent link="trunk" />
    <child link="sensor_10_05" />
    <axis xyz="0 0 0" />
  </joint>


<link name="sensor_10_06">
    <inertial>
      <origin xyz="0 -1.6653E-16 -5E-05" rpy="0 0 0" />
      <mass value="9.18E-07" />
      <inertia ixx="6.8927E-13" ixy="5.5033E-28" ixz="2.4805E-28" iyy="6.8927E-13" iyz="-3.5387E-24" izz="1.377E-12" />
    </inertial>
    <visual>
      <origin rpy="0 0 0" xyz="0 0 0"/>
      <geometry>
        <box size="0.0113 0.0105 0.001"/>
      </geometry>
      <material name="red"/>
    </visual>
    <collision>
      <origin rpy="0 0 0" xyz="0 0 0"/>
      <geometry>
        <box size="0.0183 0.0175 0.001"/>
      </geometry>
    </collision>
  </link>
  
<joint name="sensor_10_06_fixed" type="fixed" dont_collapse="true">
    <origin xyz="-0.0143 0.0128 0.093" rpy="0 0 0" />
    <parent link="trunk" />
    <child link="sensor_10_06" />
    <axis xyz="0 0 0" />
  </joint>


<link name="sensor_10_07">
    <inertial>
      <origin xyz="0 -1.6653E-16 -5E-05" rpy="0 0 0" />
      <mass value="9.18E-07" />
      <inertia ixx="6.8927E-13" ixy="5.5033E-28" ixz="2.4805E-28" iyy="6.8927E-13" iyz="-3.5387E-24" izz="1.377E-12" />
    </inertial>
    <visual>
      <origin rpy="0 0 0" xyz="0 0 0"/>
      <geometry>
        <box size="0.0113 0.0105 0.001"/>
      </geometry>
      <material name="red"/>
    </visual>
    <collision>
      <origin rpy="0 0 0" xyz="0 0 0"/>
      <geometry>
        <box size="0.0183 0.0175 0.001"/>
      </geometry>
    </collision>
  </link>
  
<joint name="sensor_10_07_fixed" type="fixed" dont_collapse="true">
    <origin xyz="-0.0143 -0.0 0.093" rpy="0 0 0" />
    <parent link="trunk" />
    <child link="sensor_10_07" />
    <axis xyz="0 0 0" />
  </joint>


<link name="sensor_10_08">
    <inertial>
      <origin xyz="0 -1.6653E-16 -5E-05" rpy="0 0 0" />
      <mass value="9.18E-07" />
      <inertia ixx="6.8927E-13" ixy="5.5033E-28" ixz="2.4805E-28" iyy="6.8927E-13" iyz="-3.5387E-24" izz="1.377E-12" />
    </inertial>
    <visual>
      <origin rpy="0 0 0" xyz="0 0 0"/>
      <geometry>
        <box size="0.0113 0.0105 0.001"/>
      </geometry>
      <material name="red"/>
    </visual>
    <collision>
      <origin rpy="0 0 0" xyz="0 0 0"/>
      <geometry>
        <box size="0.0183 0.0175 0.001"/>
      </geometry>
    </collision>
  </link>
  
<joint name="sensor_10_08_fixed" type="fixed" dont_collapse="true">
    <origin xyz="-0.0143 -0.0128 0.093" rpy="0 0 0" />
    <parent link="trunk" />
    <child link="sensor_10_08" />
    <axis xyz="0 0 0" />
  </joint>


<link name="sensor_10_09">
    <inertial>
      <origin xyz="0 -1.6653E-16 -5E-05" rpy="0 0 0" />
      <mass value="9.18E-07" />
      <inertia ixx="6.8927E-13" ixy="5.5033E-28" ixz="2.4805E-28" iyy="6.8927E-13" iyz="-3.5387E-24" izz="1.377E-12" />
    </inertial>
    <visual>
      <origin rpy="0 0 0" xyz="0 0 0"/>
      <geometry>
        <box size="0.0113 0.0105 0.001"/>
      </geometry>
      <material name="red"/>
    </visual>
    <collision>
      <origin rpy="0 0 0" xyz="0 0 0"/>
      <geometry>
        <box size="0.0183 0.0175 0.001"/>
      </geometry>
    </collision>
  </link>
  
<joint name="sensor_10_09_fixed" type="fixed" dont_collapse="true">
    <origin xyz="-0.0143 -0.0256 0.093" rpy="0 0 0" />
    <parent link="trunk" />
    <child link="sensor_10_09" />
    <axis xyz="0 0 0" />
  </joint>


<link name="sensor_10_10">
    <inertial>
      <origin xyz="0 -1.6653E-16 -5E-05" rpy="0 0 0" />
      <mass value="9.18E-07" />
      <inertia ixx="6.8927E-13" ixy="5.5033E-28" ixz="2.4805E-28" iyy="6.8927E-13" iyz="-3.5387E-24" izz="1.377E-12" />
    </inertial>
    <visual>
      <origin rpy="0 0 0" xyz="0 0 0"/>
      <geometry>
        <box size="0.0113 0.0105 0.001"/>
      </geometry>
      <material name="red"/>
    </visual>
    <collision>
      <origin rpy="0 0 0" xyz="0 0 0"/>
      <geometry>
        <box size="0.0183 0.0175 0.001"/>
      </geometry>
    </collision>
  </link>
  
<joint name="sensor_10_10_fixed" type="fixed" dont_collapse="true">
    <origin xyz="-0.0143 -0.0384 0.093" rpy="0 0 0" />
    <parent link="trunk" />
    <child link="sensor_10_10" />
    <axis xyz="0 0 0" />
  </joint>


<link name="sensor_10_11">
    <inertial>
      <origin xyz="0 -1.6653E-16 -5E-05" rpy="0 0 0" />
      <mass value="9.18E-07" />
      <inertia ixx="6.8927E-13" ixy="5.5033E-28" ixz="2.4805E-28" iyy="6.8927E-13" iyz="-3.5387E-24" izz="1.377E-12" />
    </inertial>
    <visual>
      <origin rpy="0 0 0" xyz="0 0 0"/>
      <geometry>
        <box size="0.0113 0.0105 0.001"/>
      </geometry>
      <material name="red"/>
    </visual>
    <collision>
      <origin rpy="0 0 0" xyz="0 0 0"/>
      <geometry>
        <box size="0.0183 0.0175 0.001"/>
      </geometry>
    </collision>
  </link>
  
<joint name="sensor_10_11_fixed" type="fixed" dont_collapse="true">
    <origin xyz="-0.0143 -0.0512 0.093" rpy="0 0 0" />
    <parent link="trunk" />
    <child link="sensor_10_11" />
    <axis xyz="0 0 0" />
  </joint>


<link name="sensor_10_12">
    <inertial>
      <origin xyz="0 -1.6653E-16 -5E-05" rpy="0 0 0" />
      <mass value="9.18E-07" />
      <inertia ixx="6.8927E-13" ixy="5.5033E-28" ixz="2.4805E-28" iyy="6.8927E-13" iyz="-3.5387E-24" izz="1.377E-12" />
    </inertial>
    <visual>
      <origin rpy="0 0 0" xyz="0 0 0"/>
      <geometry>
        <box size="0.0113 0.0105 0.001"/>
      </geometry>
      <material name="red"/>
    </visual>
    <collision>
      <origin rpy="0 0 0" xyz="0 0 0"/>
      <geometry>
        <box size="0.0183 0.0175 0.001"/>
      </geometry>
    </collision>
  </link>
  
<joint name="sensor_10_12_fixed" type="fixed" dont_collapse="true">
    <origin xyz="-0.0143 -0.064 0.093" rpy="0 0 0" />
    <parent link="trunk" />
    <child link="sensor_10_12" />
    <axis xyz="0 0 0" />
  </joint>


<link name="sensor_10_13">
    <inertial>
      <origin xyz="0 -1.6653E-16 -5E-05" rpy="0 0 0" />
      <mass value="9.18E-07" />
      <inertia ixx="6.8927E-13" ixy="5.5033E-28" ixz="2.4805E-28" iyy="6.8927E-13" iyz="-3.5387E-24" izz="1.377E-12" />
    </inertial>
    <visual>
      <origin rpy="0 0 0" xyz="0 0 0"/>
      <geometry>
        <box size="0.0113 0.0105 0.001"/>
      </geometry>
      <material name="red"/>
    </visual>
    <collision>
      <origin rpy="0 0 0" xyz="0 0 0"/>
      <geometry>
        <box size="0.0183 0.0175 0.001"/>
      </geometry>
    </collision>
  </link>
  
<joint name="sensor_10_13_fixed" type="fixed" dont_collapse="true">
    <origin xyz="-0.0143 -0.0768 0.093" rpy="0 0 0" />
    <parent link="trunk" />
    <child link="sensor_10_13" />
    <axis xyz="0 0 0" />
  </joint>


<link name="sensor_11_01">
    <inertial>
      <origin xyz="0 -1.6653E-16 -5E-05" rpy="0 0 0" />
      <mass value="9.18E-07" />
      <inertia ixx="6.8927E-13" ixy="5.5033E-28" ixz="2.4805E-28" iyy="6.8927E-13" iyz="-3.5387E-24" izz="1.377E-12" />
    </inertial>
    <visual>
      <origin rpy="0 0 0" xyz="0 0 0"/>
      <geometry>
        <box size="0.0113 0.0105 0.001"/>
      </geometry>
      <material name="red"/>
    </visual>
    <collision>
      <origin rpy="0 0 0" xyz="0 0 0"/>
      <geometry>
        <box size="0.0183 0.0175 0.001"/>
      </geometry>
    </collision>
  </link>
  
<joint name="sensor_11_01_fixed" type="fixed" dont_collapse="true">
    <origin xyz="-0.0286 0.0768 0.093" rpy="0 0 0" />
    <parent link="trunk" />
    <child link="sensor_11_01" />
    <axis xyz="0 0 0" />
  </joint>


<link name="sensor_11_02">
    <inertial>
      <origin xyz="0 -1.6653E-16 -5E-05" rpy="0 0 0" />
      <mass value="9.18E-07" />
      <inertia ixx="6.8927E-13" ixy="5.5033E-28" ixz="2.4805E-28" iyy="6.8927E-13" iyz="-3.5387E-24" izz="1.377E-12" />
    </inertial>
    <visual>
      <origin rpy="0 0 0" xyz="0 0 0"/>
      <geometry>
        <box size="0.0113 0.0105 0.001"/>
      </geometry>
      <material name="red"/>
    </visual>
    <collision>
      <origin rpy="0 0 0" xyz="0 0 0"/>
      <geometry>
        <box size="0.0183 0.0175 0.001"/>
      </geometry>
    </collision>
  </link>
  
<joint name="sensor_11_02_fixed" type="fixed" dont_collapse="true">
    <origin xyz="-0.0286 0.064 0.093" rpy="0 0 0" />
    <parent link="trunk" />
    <child link="sensor_11_02" />
    <axis xyz="0 0 0" />
  </joint>


<link name="sensor_11_03">
    <inertial>
      <origin xyz="0 -1.6653E-16 -5E-05" rpy="0 0 0" />
      <mass value="9.18E-07" />
      <inertia ixx="6.8927E-13" ixy="5.5033E-28" ixz="2.4805E-28" iyy="6.8927E-13" iyz="-3.5387E-24" izz="1.377E-12" />
    </inertial>
    <visual>
      <origin rpy="0 0 0" xyz="0 0 0"/>
      <geometry>
        <box size="0.0113 0.0105 0.001"/>
      </geometry>
      <material name="red"/>
    </visual>
    <collision>
      <origin rpy="0 0 0" xyz="0 0 0"/>
      <geometry>
        <box size="0.0183 0.0175 0.001"/>
      </geometry>
    </collision>
  </link>
  
<joint name="sensor_11_03_fixed" type="fixed" dont_collapse="true">
    <origin xyz="-0.0286 0.0512 0.093" rpy="0 0 0" />
    <parent link="trunk" />
    <child link="sensor_11_03" />
    <axis xyz="0 0 0" />
  </joint>


<link name="sensor_11_04">
    <inertial>
      <origin xyz="0 -1.6653E-16 -5E-05" rpy="0 0 0" />
      <mass value="9.18E-07" />
      <inertia ixx="6.8927E-13" ixy="5.5033E-28" ixz="2.4805E-28" iyy="6.8927E-13" iyz="-3.5387E-24" izz="1.377E-12" />
    </inertial>
    <visual>
      <origin rpy="0 0 0" xyz="0 0 0"/>
      <geometry>
        <box size="0.0113 0.0105 0.001"/>
      </geometry>
      <material name="red"/>
    </visual>
    <collision>
      <origin rpy="0 0 0" xyz="0 0 0"/>
      <geometry>
        <box size="0.0183 0.0175 0.001"/>
      </geometry>
    </collision>
  </link>
  
<joint name="sensor_11_04_fixed" type="fixed" dont_collapse="true">
    <origin xyz="-0.0286 0.0384 0.093" rpy="0 0 0" />
    <parent link="trunk" />
    <child link="sensor_11_04" />
    <axis xyz="0 0 0" />
  </joint>


<link name="sensor_11_05">
    <inertial>
      <origin xyz="0 -1.6653E-16 -5E-05" rpy="0 0 0" />
      <mass value="9.18E-07" />
      <inertia ixx="6.8927E-13" ixy="5.5033E-28" ixz="2.4805E-28" iyy="6.8927E-13" iyz="-3.5387E-24" izz="1.377E-12" />
    </inertial>
    <visual>
      <origin rpy="0 0 0" xyz="0 0 0"/>
      <geometry>
        <box size="0.0113 0.0105 0.001"/>
      </geometry>
      <material name="red"/>
    </visual>
    <collision>
      <origin rpy="0 0 0" xyz="0 0 0"/>
      <geometry>
        <box size="0.0183 0.0175 0.001"/>
      </geometry>
    </collision>
  </link>
  
<joint name="sensor_11_05_fixed" type="fixed" dont_collapse="true">
    <origin xyz="-0.0286 0.0256 0.093" rpy="0 0 0" />
    <parent link="trunk" />
    <child link="sensor_11_05" />
    <axis xyz="0 0 0" />
  </joint>


<link name="sensor_11_06">
    <inertial>
      <origin xyz="0 -1.6653E-16 -5E-05" rpy="0 0 0" />
      <mass value="9.18E-07" />
      <inertia ixx="6.8927E-13" ixy="5.5033E-28" ixz="2.4805E-28" iyy="6.8927E-13" iyz="-3.5387E-24" izz="1.377E-12" />
    </inertial>
    <visual>
      <origin rpy="0 0 0" xyz="0 0 0"/>
      <geometry>
        <box size="0.0113 0.0105 0.001"/>
      </geometry>
      <material name="red"/>
    </visual>
    <collision>
      <origin rpy="0 0 0" xyz="0 0 0"/>
      <geometry>
        <box size="0.0183 0.0175 0.001"/>
      </geometry>
    </collision>
  </link>
  
<joint name="sensor_11_06_fixed" type="fixed" dont_collapse="true">
    <origin xyz="-0.0286 0.0128 0.093" rpy="0 0 0" />
    <parent link="trunk" />
    <child link="sensor_11_06" />
    <axis xyz="0 0 0" />
  </joint>


<link name="sensor_11_07">
    <inertial>
      <origin xyz="0 -1.6653E-16 -5E-05" rpy="0 0 0" />
      <mass value="9.18E-07" />
      <inertia ixx="6.8927E-13" ixy="5.5033E-28" ixz="2.4805E-28" iyy="6.8927E-13" iyz="-3.5387E-24" izz="1.377E-12" />
    </inertial>
    <visual>
      <origin rpy="0 0 0" xyz="0 0 0"/>
      <geometry>
        <box size="0.0113 0.0105 0.001"/>
      </geometry>
      <material name="red"/>
    </visual>
    <collision>
      <origin rpy="0 0 0" xyz="0 0 0"/>
      <geometry>
        <box size="0.0183 0.0175 0.001"/>
      </geometry>
    </collision>
  </link>
  
<joint name="sensor_11_07_fixed" type="fixed" dont_collapse="true">
    <origin xyz="-0.0286 -0.0 0.093" rpy="0 0 0" />
    <parent link="trunk" />
    <child link="sensor_11_07" />
    <axis xyz="0 0 0" />
  </joint>


<link name="sensor_11_08">
    <inertial>
      <origin xyz="0 -1.6653E-16 -5E-05" rpy="0 0 0" />
      <mass value="9.18E-07" />
      <inertia ixx="6.8927E-13" ixy="5.5033E-28" ixz="2.4805E-28" iyy="6.8927E-13" iyz="-3.5387E-24" izz="1.377E-12" />
    </inertial>
    <visual>
      <origin rpy="0 0 0" xyz="0 0 0"/>
      <geometry>
        <box size="0.0113 0.0105 0.001"/>
      </geometry>
      <material name="red"/>
    </visual>
    <collision>
      <origin rpy="0 0 0" xyz="0 0 0"/>
      <geometry>
        <box size="0.0183 0.0175 0.001"/>
      </geometry>
    </collision>
  </link>
  
<joint name="sensor_11_08_fixed" type="fixed" dont_collapse="true">
    <origin xyz="-0.0286 -0.0128 0.093" rpy="0 0 0" />
    <parent link="trunk" />
    <child link="sensor_11_08" />
    <axis xyz="0 0 0" />
  </joint>


<link name="sensor_11_09">
    <inertial>
      <origin xyz="0 -1.6653E-16 -5E-05" rpy="0 0 0" />
      <mass value="9.18E-07" />
      <inertia ixx="6.8927E-13" ixy="5.5033E-28" ixz="2.4805E-28" iyy="6.8927E-13" iyz="-3.5387E-24" izz="1.377E-12" />
    </inertial>
    <visual>
      <origin rpy="0 0 0" xyz="0 0 0"/>
      <geometry>
        <box size="0.0113 0.0105 0.001"/>
      </geometry>
      <material name="red"/>
    </visual>
    <collision>
      <origin rpy="0 0 0" xyz="0 0 0"/>
      <geometry>
        <box size="0.0183 0.0175 0.001"/>
      </geometry>
    </collision>
  </link>
  
<joint name="sensor_11_09_fixed" type="fixed" dont_collapse="true">
    <origin xyz="-0.0286 -0.0256 0.093" rpy="0 0 0" />
    <parent link="trunk" />
    <child link="sensor_11_09" />
    <axis xyz="0 0 0" />
  </joint>


<link name="sensor_11_10">
    <inertial>
      <origin xyz="0 -1.6653E-16 -5E-05" rpy="0 0 0" />
      <mass value="9.18E-07" />
      <inertia ixx="6.8927E-13" ixy="5.5033E-28" ixz="2.4805E-28" iyy="6.8927E-13" iyz="-3.5387E-24" izz="1.377E-12" />
    </inertial>
    <visual>
      <origin rpy="0 0 0" xyz="0 0 0"/>
      <geometry>
        <box size="0.0113 0.0105 0.001"/>
      </geometry>
      <material name="red"/>
    </visual>
    <collision>
      <origin rpy="0 0 0" xyz="0 0 0"/>
      <geometry>
        <box size="0.0183 0.0175 0.001"/>
      </geometry>
    </collision>
  </link>
  
<joint name="sensor_11_10_fixed" type="fixed" dont_collapse="true">
    <origin xyz="-0.0286 -0.0384 0.093" rpy="0 0 0" />
    <parent link="trunk" />
    <child link="sensor_11_10" />
    <axis xyz="0 0 0" />
  </joint>


<link name="sensor_11_11">
    <inertial>
      <origin xyz="0 -1.6653E-16 -5E-05" rpy="0 0 0" />
      <mass value="9.18E-07" />
      <inertia ixx="6.8927E-13" ixy="5.5033E-28" ixz="2.4805E-28" iyy="6.8927E-13" iyz="-3.5387E-24" izz="1.377E-12" />
    </inertial>
    <visual>
      <origin rpy="0 0 0" xyz="0 0 0"/>
      <geometry>
        <box size="0.0113 0.0105 0.001"/>
      </geometry>
      <material name="red"/>
    </visual>
    <collision>
      <origin rpy="0 0 0" xyz="0 0 0"/>
      <geometry>
        <box size="0.0183 0.0175 0.001"/>
      </geometry>
    </collision>
  </link>
  
<joint name="sensor_11_11_fixed" type="fixed" dont_collapse="true">
    <origin xyz="-0.0286 -0.0512 0.093" rpy="0 0 0" />
    <parent link="trunk" />
    <child link="sensor_11_11" />
    <axis xyz="0 0 0" />
  </joint>


<link name="sensor_11_12">
    <inertial>
      <origin xyz="0 -1.6653E-16 -5E-05" rpy="0 0 0" />
      <mass value="9.18E-07" />
      <inertia ixx="6.8927E-13" ixy="5.5033E-28" ixz="2.4805E-28" iyy="6.8927E-13" iyz="-3.5387E-24" izz="1.377E-12" />
    </inertial>
    <visual>
      <origin rpy="0 0 0" xyz="0 0 0"/>
      <geometry>
        <box size="0.0113 0.0105 0.001"/>
      </geometry>
      <material name="red"/>
    </visual>
    <collision>
      <origin rpy="0 0 0" xyz="0 0 0"/>
      <geometry>
        <box size="0.0183 0.0175 0.001"/>
      </geometry>
    </collision>
  </link>
  
<joint name="sensor_11_12_fixed" type="fixed" dont_collapse="true">
    <origin xyz="-0.0286 -0.064 0.093" rpy="0 0 0" />
    <parent link="trunk" />
    <child link="sensor_11_12" />
    <axis xyz="0 0 0" />
  </joint>


<link name="sensor_11_13">
    <inertial>
      <origin xyz="0 -1.6653E-16 -5E-05" rpy="0 0 0" />
      <mass value="9.18E-07" />
      <inertia ixx="6.8927E-13" ixy="5.5033E-28" ixz="2.4805E-28" iyy="6.8927E-13" iyz="-3.5387E-24" izz="1.377E-12" />
    </inertial>
    <visual>
      <origin rpy="0 0 0" xyz="0 0 0"/>
      <geometry>
        <box size="0.0113 0.0105 0.001"/>
      </geometry>
      <material name="red"/>
    </visual>
    <collision>
      <origin rpy="0 0 0" xyz="0 0 0"/>
      <geometry>
        <box size="0.0183 0.0175 0.001"/>
      </geometry>
    </collision>
  </link>
  
<joint name="sensor_11_13_fixed" type="fixed" dont_collapse="true">
    <origin xyz="-0.0286 -0.0768 0.093" rpy="0 0 0" />
    <parent link="trunk" />
    <child link="sensor_11_13" />
    <axis xyz="0 0 0" />
  </joint>


<link name="sensor_12_01">
    <inertial>
      <origin xyz="0 -1.6653E-16 -5E-05" rpy="0 0 0" />
      <mass value="9.18E-07" />
      <inertia ixx="6.8927E-13" ixy="5.5033E-28" ixz="2.4805E-28" iyy="6.8927E-13" iyz="-3.5387E-24" izz="1.377E-12" />
    </inertial>
    <visual>
      <origin rpy="0 0 0" xyz="0 0 0"/>
      <geometry>
        <box size="0.0113 0.0105 0.001"/>
      </geometry>
      <material name="red"/>
    </visual>
    <collision>
      <origin rpy="0 0 0" xyz="0 0 0"/>
      <geometry>
        <box size="0.0183 0.0175 0.001"/>
      </geometry>
    </collision>
  </link>
  
<joint name="sensor_12_01_fixed" type="fixed" dont_collapse="true">
    <origin xyz="-0.0429 0.0768 0.093" rpy="0 0 0" />
    <parent link="trunk" />
    <child link="sensor_12_01" />
    <axis xyz="0 0 0" />
  </joint>


<link name="sensor_12_02">
    <inertial>
      <origin xyz="0 -1.6653E-16 -5E-05" rpy="0 0 0" />
      <mass value="9.18E-07" />
      <inertia ixx="6.8927E-13" ixy="5.5033E-28" ixz="2.4805E-28" iyy="6.8927E-13" iyz="-3.5387E-24" izz="1.377E-12" />
    </inertial>
    <visual>
      <origin rpy="0 0 0" xyz="0 0 0"/>
      <geometry>
        <box size="0.0113 0.0105 0.001"/>
      </geometry>
      <material name="red"/>
    </visual>
    <collision>
      <origin rpy="0 0 0" xyz="0 0 0"/>
      <geometry>
        <box size="0.0183 0.0175 0.001"/>
      </geometry>
    </collision>
  </link>
  
<joint name="sensor_12_02_fixed" type="fixed" dont_collapse="true">
    <origin xyz="-0.0429 0.064 0.093" rpy="0 0 0" />
    <parent link="trunk" />
    <child link="sensor_12_02" />
    <axis xyz="0 0 0" />
  </joint>


<link name="sensor_12_03">
    <inertial>
      <origin xyz="0 -1.6653E-16 -5E-05" rpy="0 0 0" />
      <mass value="9.18E-07" />
      <inertia ixx="6.8927E-13" ixy="5.5033E-28" ixz="2.4805E-28" iyy="6.8927E-13" iyz="-3.5387E-24" izz="1.377E-12" />
    </inertial>
    <visual>
      <origin rpy="0 0 0" xyz="0 0 0"/>
      <geometry>
        <box size="0.0113 0.0105 0.001"/>
      </geometry>
      <material name="red"/>
    </visual>
    <collision>
      <origin rpy="0 0 0" xyz="0 0 0"/>
      <geometry>
        <box size="0.0183 0.0175 0.001"/>
      </geometry>
    </collision>
  </link>
  
<joint name="sensor_12_03_fixed" type="fixed" dont_collapse="true">
    <origin xyz="-0.0429 0.0512 0.093" rpy="0 0 0" />
    <parent link="trunk" />
    <child link="sensor_12_03" />
    <axis xyz="0 0 0" />
  </joint>


<link name="sensor_12_04">
    <inertial>
      <origin xyz="0 -1.6653E-16 -5E-05" rpy="0 0 0" />
      <mass value="9.18E-07" />
      <inertia ixx="6.8927E-13" ixy="5.5033E-28" ixz="2.4805E-28" iyy="6.8927E-13" iyz="-3.5387E-24" izz="1.377E-12" />
    </inertial>
    <visual>
      <origin rpy="0 0 0" xyz="0 0 0"/>
      <geometry>
        <box size="0.0113 0.0105 0.001"/>
      </geometry>
      <material name="red"/>
    </visual>
    <collision>
      <origin rpy="0 0 0" xyz="0 0 0"/>
      <geometry>
        <box size="0.0183 0.0175 0.001"/>
      </geometry>
    </collision>
  </link>
  
<joint name="sensor_12_04_fixed" type="fixed" dont_collapse="true">
    <origin xyz="-0.0429 0.0384 0.093" rpy="0 0 0" />
    <parent link="trunk" />
    <child link="sensor_12_04" />
    <axis xyz="0 0 0" />
  </joint>


<link name="sensor_12_05">
    <inertial>
      <origin xyz="0 -1.6653E-16 -5E-05" rpy="0 0 0" />
      <mass value="9.18E-07" />
      <inertia ixx="6.8927E-13" ixy="5.5033E-28" ixz="2.4805E-28" iyy="6.8927E-13" iyz="-3.5387E-24" izz="1.377E-12" />
    </inertial>
    <visual>
      <origin rpy="0 0 0" xyz="0 0 0"/>
      <geometry>
        <box size="0.0113 0.0105 0.001"/>
      </geometry>
      <material name="red"/>
    </visual>
    <collision>
      <origin rpy="0 0 0" xyz="0 0 0"/>
      <geometry>
        <box size="0.0183 0.0175 0.001"/>
      </geometry>
    </collision>
  </link>
  
<joint name="sensor_12_05_fixed" type="fixed" dont_collapse="true">
    <origin xyz="-0.0429 0.0256 0.093" rpy="0 0 0" />
    <parent link="trunk" />
    <child link="sensor_12_05" />
    <axis xyz="0 0 0" />
  </joint>


<link name="sensor_12_06">
    <inertial>
      <origin xyz="0 -1.6653E-16 -5E-05" rpy="0 0 0" />
      <mass value="9.18E-07" />
      <inertia ixx="6.8927E-13" ixy="5.5033E-28" ixz="2.4805E-28" iyy="6.8927E-13" iyz="-3.5387E-24" izz="1.377E-12" />
    </inertial>
    <visual>
      <origin rpy="0 0 0" xyz="0 0 0"/>
      <geometry>
        <box size="0.0113 0.0105 0.001"/>
      </geometry>
      <material name="red"/>
    </visual>
    <collision>
      <origin rpy="0 0 0" xyz="0 0 0"/>
      <geometry>
        <box size="0.0183 0.0175 0.001"/>
      </geometry>
    </collision>
  </link>
  
<joint name="sensor_12_06_fixed" type="fixed" dont_collapse="true">
    <origin xyz="-0.0429 0.0128 0.093" rpy="0 0 0" />
    <parent link="trunk" />
    <child link="sensor_12_06" />
    <axis xyz="0 0 0" />
  </joint>


<link name="sensor_12_07">
    <inertial>
      <origin xyz="0 -1.6653E-16 -5E-05" rpy="0 0 0" />
      <mass value="9.18E-07" />
      <inertia ixx="6.8927E-13" ixy="5.5033E-28" ixz="2.4805E-28" iyy="6.8927E-13" iyz="-3.5387E-24" izz="1.377E-12" />
    </inertial>
    <visual>
      <origin rpy="0 0 0" xyz="0 0 0"/>
      <geometry>
        <box size="0.0113 0.0105 0.001"/>
      </geometry>
      <material name="red"/>
    </visual>
    <collision>
      <origin rpy="0 0 0" xyz="0 0 0"/>
      <geometry>
        <box size="0.0183 0.0175 0.001"/>
      </geometry>
    </collision>
  </link>
  
<joint name="sensor_12_07_fixed" type="fixed" dont_collapse="true">
    <origin xyz="-0.0429 -0.0 0.093" rpy="0 0 0" />
    <parent link="trunk" />
    <child link="sensor_12_07" />
    <axis xyz="0 0 0" />
  </joint>


<link name="sensor_12_08">
    <inertial>
      <origin xyz="0 -1.6653E-16 -5E-05" rpy="0 0 0" />
      <mass value="9.18E-07" />
      <inertia ixx="6.8927E-13" ixy="5.5033E-28" ixz="2.4805E-28" iyy="6.8927E-13" iyz="-3.5387E-24" izz="1.377E-12" />
    </inertial>
    <visual>
      <origin rpy="0 0 0" xyz="0 0 0"/>
      <geometry>
        <box size="0.0113 0.0105 0.001"/>
      </geometry>
      <material name="red"/>
    </visual>
    <collision>
      <origin rpy="0 0 0" xyz="0 0 0"/>
      <geometry>
        <box size="0.0183 0.0175 0.001"/>
      </geometry>
    </collision>
  </link>
  
<joint name="sensor_12_08_fixed" type="fixed" dont_collapse="true">
    <origin xyz="-0.0429 -0.0128 0.093" rpy="0 0 0" />
    <parent link="trunk" />
    <child link="sensor_12_08" />
    <axis xyz="0 0 0" />
  </joint>


<link name="sensor_12_09">
    <inertial>
      <origin xyz="0 -1.6653E-16 -5E-05" rpy="0 0 0" />
      <mass value="9.18E-07" />
      <inertia ixx="6.8927E-13" ixy="5.5033E-28" ixz="2.4805E-28" iyy="6.8927E-13" iyz="-3.5387E-24" izz="1.377E-12" />
    </inertial>
    <visual>
      <origin rpy="0 0 0" xyz="0 0 0"/>
      <geometry>
        <box size="0.0113 0.0105 0.001"/>
      </geometry>
      <material name="red"/>
    </visual>
    <collision>
      <origin rpy="0 0 0" xyz="0 0 0"/>
      <geometry>
        <box size="0.0183 0.0175 0.001"/>
      </geometry>
    </collision>
  </link>
  
<joint name="sensor_12_09_fixed" type="fixed" dont_collapse="true">
    <origin xyz="-0.0429 -0.0256 0.093" rpy="0 0 0" />
    <parent link="trunk" />
    <child link="sensor_12_09" />
    <axis xyz="0 0 0" />
  </joint>


<link name="sensor_12_10">
    <inertial>
      <origin xyz="0 -1.6653E-16 -5E-05" rpy="0 0 0" />
      <mass value="9.18E-07" />
      <inertia ixx="6.8927E-13" ixy="5.5033E-28" ixz="2.4805E-28" iyy="6.8927E-13" iyz="-3.5387E-24" izz="1.377E-12" />
    </inertial>
    <visual>
      <origin rpy="0 0 0" xyz="0 0 0"/>
      <geometry>
        <box size="0.0113 0.0105 0.001"/>
      </geometry>
      <material name="red"/>
    </visual>
    <collision>
      <origin rpy="0 0 0" xyz="0 0 0"/>
      <geometry>
        <box size="0.0183 0.0175 0.001"/>
      </geometry>
    </collision>
  </link>
  
<joint name="sensor_12_10_fixed" type="fixed" dont_collapse="true">
    <origin xyz="-0.0429 -0.0384 0.093" rpy="0 0 0" />
    <parent link="trunk" />
    <child link="sensor_12_10" />
    <axis xyz="0 0 0" />
  </joint>


<link name="sensor_12_11">
    <inertial>
      <origin xyz="0 -1.6653E-16 -5E-05" rpy="0 0 0" />
      <mass value="9.18E-07" />
      <inertia ixx="6.8927E-13" ixy="5.5033E-28" ixz="2.4805E-28" iyy="6.8927E-13" iyz="-3.5387E-24" izz="1.377E-12" />
    </inertial>
    <visual>
      <origin rpy="0 0 0" xyz="0 0 0"/>
      <geometry>
        <box size="0.0113 0.0105 0.001"/>
      </geometry>
      <material name="red"/>
    </visual>
    <collision>
      <origin rpy="0 0 0" xyz="0 0 0"/>
      <geometry>
        <box size="0.0183 0.0175 0.001"/>
      </geometry>
    </collision>
  </link>
  
<joint name="sensor_12_11_fixed" type="fixed" dont_collapse="true">
    <origin xyz="-0.0429 -0.0512 0.093" rpy="0 0 0" />
    <parent link="trunk" />
    <child link="sensor_12_11" />
    <axis xyz="0 0 0" />
  </joint>


<link name="sensor_12_12">
    <inertial>
      <origin xyz="0 -1.6653E-16 -5E-05" rpy="0 0 0" />
      <mass value="9.18E-07" />
      <inertia ixx="6.8927E-13" ixy="5.5033E-28" ixz="2.4805E-28" iyy="6.8927E-13" iyz="-3.5387E-24" izz="1.377E-12" />
    </inertial>
    <visual>
      <origin rpy="0 0 0" xyz="0 0 0"/>
      <geometry>
        <box size="0.0113 0.0105 0.001"/>
      </geometry>
      <material name="red"/>
    </visual>
    <collision>
      <origin rpy="0 0 0" xyz="0 0 0"/>
      <geometry>
        <box size="0.0183 0.0175 0.001"/>
      </geometry>
    </collision>
  </link>
  
<joint name="sensor_12_12_fixed" type="fixed" dont_collapse="true">
    <origin xyz="-0.0429 -0.064 0.093" rpy="0 0 0" />
    <parent link="trunk" />
    <child link="sensor_12_12" />
    <axis xyz="0 0 0" />
  </joint>


<link name="sensor_12_13">
    <inertial>
      <origin xyz="0 -1.6653E-16 -5E-05" rpy="0 0 0" />
      <mass value="9.18E-07" />
      <inertia ixx="6.8927E-13" ixy="5.5033E-28" ixz="2.4805E-28" iyy="6.8927E-13" iyz="-3.5387E-24" izz="1.377E-12" />
    </inertial>
    <visual>
      <origin rpy="0 0 0" xyz="0 0 0"/>
      <geometry>
        <box size="0.0113 0.0105 0.001"/>
      </geometry>
      <material name="red"/>
    </visual>
    <collision>
      <origin rpy="0 0 0" xyz="0 0 0"/>
      <geometry>
        <box size="0.0183 0.0175 0.001"/>
      </geometry>
    </collision>
  </link>
  
<joint name="sensor_12_13_fixed" type="fixed" dont_collapse="true">
    <origin xyz="-0.0429 -0.0768 0.093" rpy="0 0 0" />
    <parent link="trunk" />
    <child link="sensor_12_13" />
    <axis xyz="0 0 0" />
  </joint>


<link name="sensor_13_01">
    <inertial>
      <origin xyz="0 -1.6653E-16 -5E-05" rpy="0 0 0" />
      <mass value="9.18E-07" />
      <inertia ixx="6.8927E-13" ixy="5.5033E-28" ixz="2.4805E-28" iyy="6.8927E-13" iyz="-3.5387E-24" izz="1.377E-12" />
    </inertial>
    <visual>
      <origin rpy="0 0 0" xyz="0 0 0"/>
      <geometry>
        <box size="0.0113 0.0105 0.001"/>
      </geometry>
      <material name="red"/>
    </visual>
    <collision>
      <origin rpy="0 0 0" xyz="0 0 0"/>
      <geometry>
        <box size="0.0183 0.0175 0.001"/>
      </geometry>
    </collision>
  </link>
  
<joint name="sensor_13_01_fixed" type="fixed" dont_collapse="true">
    <origin xyz="-0.0572 0.0768 0.093" rpy="0 0 0" />
    <parent link="trunk" />
    <child link="sensor_13_01" />
    <axis xyz="0 0 0" />
  </joint>


<link name="sensor_13_02">
    <inertial>
      <origin xyz="0 -1.6653E-16 -5E-05" rpy="0 0 0" />
      <mass value="9.18E-07" />
      <inertia ixx="6.8927E-13" ixy="5.5033E-28" ixz="2.4805E-28" iyy="6.8927E-13" iyz="-3.5387E-24" izz="1.377E-12" />
    </inertial>
    <visual>
      <origin rpy="0 0 0" xyz="0 0 0"/>
      <geometry>
        <box size="0.0113 0.0105 0.001"/>
      </geometry>
      <material name="red"/>
    </visual>
    <collision>
      <origin rpy="0 0 0" xyz="0 0 0"/>
      <geometry>
        <box size="0.0183 0.0175 0.001"/>
      </geometry>
    </collision>
  </link>
  
<joint name="sensor_13_02_fixed" type="fixed" dont_collapse="true">
    <origin xyz="-0.0572 0.064 0.093" rpy="0 0 0" />
    <parent link="trunk" />
    <child link="sensor_13_02" />
    <axis xyz="0 0 0" />
  </joint>


<link name="sensor_13_03">
    <inertial>
      <origin xyz="0 -1.6653E-16 -5E-05" rpy="0 0 0" />
      <mass value="9.18E-07" />
      <inertia ixx="6.8927E-13" ixy="5.5033E-28" ixz="2.4805E-28" iyy="6.8927E-13" iyz="-3.5387E-24" izz="1.377E-12" />
    </inertial>
    <visual>
      <origin rpy="0 0 0" xyz="0 0 0"/>
      <geometry>
        <box size="0.0113 0.0105 0.001"/>
      </geometry>
      <material name="red"/>
    </visual>
    <collision>
      <origin rpy="0 0 0" xyz="0 0 0"/>
      <geometry>
        <box size="0.0183 0.0175 0.001"/>
      </geometry>
    </collision>
  </link>
  
<joint name="sensor_13_03_fixed" type="fixed" dont_collapse="true">
    <origin xyz="-0.0572 0.0512 0.093" rpy="0 0 0" />
    <parent link="trunk" />
    <child link="sensor_13_03" />
    <axis xyz="0 0 0" />
  </joint>


<link name="sensor_13_04">
    <inertial>
      <origin xyz="0 -1.6653E-16 -5E-05" rpy="0 0 0" />
      <mass value="9.18E-07" />
      <inertia ixx="6.8927E-13" ixy="5.5033E-28" ixz="2.4805E-28" iyy="6.8927E-13" iyz="-3.5387E-24" izz="1.377E-12" />
    </inertial>
    <visual>
      <origin rpy="0 0 0" xyz="0 0 0"/>
      <geometry>
        <box size="0.0113 0.0105 0.001"/>
      </geometry>
      <material name="red"/>
    </visual>
    <collision>
      <origin rpy="0 0 0" xyz="0 0 0"/>
      <geometry>
        <box size="0.0183 0.0175 0.001"/>
      </geometry>
    </collision>
  </link>
  
<joint name="sensor_13_04_fixed" type="fixed" dont_collapse="true">
    <origin xyz="-0.0572 0.0384 0.093" rpy="0 0 0" />
    <parent link="trunk" />
    <child link="sensor_13_04" />
    <axis xyz="0 0 0" />
  </joint>


<link name="sensor_13_05">
    <inertial>
      <origin xyz="0 -1.6653E-16 -5E-05" rpy="0 0 0" />
      <mass value="9.18E-07" />
      <inertia ixx="6.8927E-13" ixy="5.5033E-28" ixz="2.4805E-28" iyy="6.8927E-13" iyz="-3.5387E-24" izz="1.377E-12" />
    </inertial>
    <visual>
      <origin rpy="0 0 0" xyz="0 0 0"/>
      <geometry>
        <box size="0.0113 0.0105 0.001"/>
      </geometry>
      <material name="red"/>
    </visual>
    <collision>
      <origin rpy="0 0 0" xyz="0 0 0"/>
      <geometry>
        <box size="0.0183 0.0175 0.001"/>
      </geometry>
    </collision>
  </link>
  
<joint name="sensor_13_05_fixed" type="fixed" dont_collapse="true">
    <origin xyz="-0.0572 0.0256 0.093" rpy="0 0 0" />
    <parent link="trunk" />
    <child link="sensor_13_05" />
    <axis xyz="0 0 0" />
  </joint>


<link name="sensor_13_06">
    <inertial>
      <origin xyz="0 -1.6653E-16 -5E-05" rpy="0 0 0" />
      <mass value="9.18E-07" />
      <inertia ixx="6.8927E-13" ixy="5.5033E-28" ixz="2.4805E-28" iyy="6.8927E-13" iyz="-3.5387E-24" izz="1.377E-12" />
    </inertial>
    <visual>
      <origin rpy="0 0 0" xyz="0 0 0"/>
      <geometry>
        <box size="0.0113 0.0105 0.001"/>
      </geometry>
      <material name="red"/>
    </visual>
    <collision>
      <origin rpy="0 0 0" xyz="0 0 0"/>
      <geometry>
        <box size="0.0183 0.0175 0.001"/>
      </geometry>
    </collision>
  </link>
  
<joint name="sensor_13_06_fixed" type="fixed" dont_collapse="true">
    <origin xyz="-0.0572 0.0128 0.093" rpy="0 0 0" />
    <parent link="trunk" />
    <child link="sensor_13_06" />
    <axis xyz="0 0 0" />
  </joint>


<link name="sensor_13_07">
    <inertial>
      <origin xyz="0 -1.6653E-16 -5E-05" rpy="0 0 0" />
      <mass value="9.18E-07" />
      <inertia ixx="6.8927E-13" ixy="5.5033E-28" ixz="2.4805E-28" iyy="6.8927E-13" iyz="-3.5387E-24" izz="1.377E-12" />
    </inertial>
    <visual>
      <origin rpy="0 0 0" xyz="0 0 0"/>
      <geometry>
        <box size="0.0113 0.0105 0.001"/>
      </geometry>
      <material name="red"/>
    </visual>
    <collision>
      <origin rpy="0 0 0" xyz="0 0 0"/>
      <geometry>
        <box size="0.0183 0.0175 0.001"/>
      </geometry>
    </collision>
  </link>
  
<joint name="sensor_13_07_fixed" type="fixed" dont_collapse="true">
    <origin xyz="-0.0572 -0.0 0.093" rpy="0 0 0" />
    <parent link="trunk" />
    <child link="sensor_13_07" />
    <axis xyz="0 0 0" />
  </joint>


<link name="sensor_13_08">
    <inertial>
      <origin xyz="0 -1.6653E-16 -5E-05" rpy="0 0 0" />
      <mass value="9.18E-07" />
      <inertia ixx="6.8927E-13" ixy="5.5033E-28" ixz="2.4805E-28" iyy="6.8927E-13" iyz="-3.5387E-24" izz="1.377E-12" />
    </inertial>
    <visual>
      <origin rpy="0 0 0" xyz="0 0 0"/>
      <geometry>
        <box size="0.0113 0.0105 0.001"/>
      </geometry>
      <material name="red"/>
    </visual>
    <collision>
      <origin rpy="0 0 0" xyz="0 0 0"/>
      <geometry>
        <box size="0.0183 0.0175 0.001"/>
      </geometry>
    </collision>
  </link>
  
<joint name="sensor_13_08_fixed" type="fixed" dont_collapse="true">
    <origin xyz="-0.0572 -0.0128 0.093" rpy="0 0 0" />
    <parent link="trunk" />
    <child link="sensor_13_08" />
    <axis xyz="0 0 0" />
  </joint>


<link name="sensor_13_09">
    <inertial>
      <origin xyz="0 -1.6653E-16 -5E-05" rpy="0 0 0" />
      <mass value="9.18E-07" />
      <inertia ixx="6.8927E-13" ixy="5.5033E-28" ixz="2.4805E-28" iyy="6.8927E-13" iyz="-3.5387E-24" izz="1.377E-12" />
    </inertial>
    <visual>
      <origin rpy="0 0 0" xyz="0 0 0"/>
      <geometry>
        <box size="0.0113 0.0105 0.001"/>
      </geometry>
      <material name="red"/>
    </visual>
    <collision>
      <origin rpy="0 0 0" xyz="0 0 0"/>
      <geometry>
        <box size="0.0183 0.0175 0.001"/>
      </geometry>
    </collision>
  </link>
  
<joint name="sensor_13_09_fixed" type="fixed" dont_collapse="true">
    <origin xyz="-0.0572 -0.0256 0.093" rpy="0 0 0" />
    <parent link="trunk" />
    <child link="sensor_13_09" />
    <axis xyz="0 0 0" />
  </joint>


<link name="sensor_13_10">
    <inertial>
      <origin xyz="0 -1.6653E-16 -5E-05" rpy="0 0 0" />
      <mass value="9.18E-07" />
      <inertia ixx="6.8927E-13" ixy="5.5033E-28" ixz="2.4805E-28" iyy="6.8927E-13" iyz="-3.5387E-24" izz="1.377E-12" />
    </inertial>
    <visual>
      <origin rpy="0 0 0" xyz="0 0 0"/>
      <geometry>
        <box size="0.0113 0.0105 0.001"/>
      </geometry>
      <material name="red"/>
    </visual>
    <collision>
      <origin rpy="0 0 0" xyz="0 0 0"/>
      <geometry>
        <box size="0.0183 0.0175 0.001"/>
      </geometry>
    </collision>
  </link>
  
<joint name="sensor_13_10_fixed" type="fixed" dont_collapse="true">
    <origin xyz="-0.0572 -0.0384 0.093" rpy="0 0 0" />
    <parent link="trunk" />
    <child link="sensor_13_10" />
    <axis xyz="0 0 0" />
  </joint>


<link name="sensor_13_11">
    <inertial>
      <origin xyz="0 -1.6653E-16 -5E-05" rpy="0 0 0" />
      <mass value="9.18E-07" />
      <inertia ixx="6.8927E-13" ixy="5.5033E-28" ixz="2.4805E-28" iyy="6.8927E-13" iyz="-3.5387E-24" izz="1.377E-12" />
    </inertial>
    <visual>
      <origin rpy="0 0 0" xyz="0 0 0"/>
      <geometry>
        <box size="0.0113 0.0105 0.001"/>
      </geometry>
      <material name="red"/>
    </visual>
    <collision>
      <origin rpy="0 0 0" xyz="0 0 0"/>
      <geometry>
        <box size="0.0183 0.0175 0.001"/>
      </geometry>
    </collision>
  </link>
  
<joint name="sensor_13_11_fixed" type="fixed" dont_collapse="true">
    <origin xyz="-0.0572 -0.0512 0.093" rpy="0 0 0" />
    <parent link="trunk" />
    <child link="sensor_13_11" />
    <axis xyz="0 0 0" />
  </joint>


<link name="sensor_13_12">
    <inertial>
      <origin xyz="0 -1.6653E-16 -5E-05" rpy="0 0 0" />
      <mass value="9.18E-07" />
      <inertia ixx="6.8927E-13" ixy="5.5033E-28" ixz="2.4805E-28" iyy="6.8927E-13" iyz="-3.5387E-24" izz="1.377E-12" />
    </inertial>
    <visual>
      <origin rpy="0 0 0" xyz="0 0 0"/>
      <geometry>
        <box size="0.0113 0.0105 0.001"/>
      </geometry>
      <material name="red"/>
    </visual>
    <collision>
      <origin rpy="0 0 0" xyz="0 0 0"/>
      <geometry>
        <box size="0.0183 0.0175 0.001"/>
      </geometry>
    </collision>
  </link>
  
<joint name="sensor_13_12_fixed" type="fixed" dont_collapse="true">
    <origin xyz="-0.0572 -0.064 0.093" rpy="0 0 0" />
    <parent link="trunk" />
    <child link="sensor_13_12" />
    <axis xyz="0 0 0" />
  </joint>


<link name="sensor_13_13">
    <inertial>
      <origin xyz="0 -1.6653E-16 -5E-05" rpy="0 0 0" />
      <mass value="9.18E-07" />
      <inertia ixx="6.8927E-13" ixy="5.5033E-28" ixz="2.4805E-28" iyy="6.8927E-13" iyz="-3.5387E-24" izz="1.377E-12" />
    </inertial>
    <visual>
      <origin rpy="0 0 0" xyz="0 0 0"/>
      <geometry>
        <box size="0.0113 0.0105 0.001"/>
      </geometry>
      <material name="red"/>
    </visual>
    <collision>
      <origin rpy="0 0 0" xyz="0 0 0"/>
      <geometry>
        <box size="0.0183 0.0175 0.001"/>
      </geometry>
    </collision>
  </link>
  
<joint name="sensor_13_13_fixed" type="fixed" dont_collapse="true">
    <origin xyz="-0.0572 -0.0768 0.093" rpy="0 0 0" />
    <parent link="trunk" />
    <child link="sensor_13_13" />
    <axis xyz="0 0 0" />
  </joint>


<link name="sensor_14_01">
    <inertial>
      <origin xyz="0 -1.6653E-16 -5E-05" rpy="0 0 0" />
      <mass value="9.18E-07" />
      <inertia ixx="6.8927E-13" ixy="5.5033E-28" ixz="2.4805E-28" iyy="6.8927E-13" iyz="-3.5387E-24" izz="1.377E-12" />
    </inertial>
    <visual>
      <origin rpy="0 0 0" xyz="0 0 0"/>
      <geometry>
        <box size="0.0113 0.0105 0.001"/>
      </geometry>
      <material name="red"/>
    </visual>
    <collision>
      <origin rpy="0 0 0" xyz="0 0 0"/>
      <geometry>
        <box size="0.0183 0.0175 0.001"/>
      </geometry>
    </collision>
  </link>
  
<joint name="sensor_14_01_fixed" type="fixed" dont_collapse="true">
    <origin xyz="-0.0715 0.0768 0.093" rpy="0 0 0" />
    <parent link="trunk" />
    <child link="sensor_14_01" />
    <axis xyz="0 0 0" />
  </joint>


<link name="sensor_14_02">
    <inertial>
      <origin xyz="0 -1.6653E-16 -5E-05" rpy="0 0 0" />
      <mass value="9.18E-07" />
      <inertia ixx="6.8927E-13" ixy="5.5033E-28" ixz="2.4805E-28" iyy="6.8927E-13" iyz="-3.5387E-24" izz="1.377E-12" />
    </inertial>
    <visual>
      <origin rpy="0 0 0" xyz="0 0 0"/>
      <geometry>
        <box size="0.0113 0.0105 0.001"/>
      </geometry>
      <material name="red"/>
    </visual>
    <collision>
      <origin rpy="0 0 0" xyz="0 0 0"/>
      <geometry>
        <box size="0.0183 0.0175 0.001"/>
      </geometry>
    </collision>
  </link>
  
<joint name="sensor_14_02_fixed" type="fixed" dont_collapse="true">
    <origin xyz="-0.0715 0.064 0.093" rpy="0 0 0" />
    <parent link="trunk" />
    <child link="sensor_14_02" />
    <axis xyz="0 0 0" />
  </joint>


<link name="sensor_14_03">
    <inertial>
      <origin xyz="0 -1.6653E-16 -5E-05" rpy="0 0 0" />
      <mass value="9.18E-07" />
      <inertia ixx="6.8927E-13" ixy="5.5033E-28" ixz="2.4805E-28" iyy="6.8927E-13" iyz="-3.5387E-24" izz="1.377E-12" />
    </inertial>
    <visual>
      <origin rpy="0 0 0" xyz="0 0 0"/>
      <geometry>
        <box size="0.0113 0.0105 0.001"/>
      </geometry>
      <material name="red"/>
    </visual>
    <collision>
      <origin rpy="0 0 0" xyz="0 0 0"/>
      <geometry>
        <box size="0.0183 0.0175 0.001"/>
      </geometry>
    </collision>
  </link>
  
<joint name="sensor_14_03_fixed" type="fixed" dont_collapse="true">
    <origin xyz="-0.0715 0.0512 0.093" rpy="0 0 0" />
    <parent link="trunk" />
    <child link="sensor_14_03" />
    <axis xyz="0 0 0" />
  </joint>


<link name="sensor_14_04">
    <inertial>
      <origin xyz="0 -1.6653E-16 -5E-05" rpy="0 0 0" />
      <mass value="9.18E-07" />
      <inertia ixx="6.8927E-13" ixy="5.5033E-28" ixz="2.4805E-28" iyy="6.8927E-13" iyz="-3.5387E-24" izz="1.377E-12" />
    </inertial>
    <visual>
      <origin rpy="0 0 0" xyz="0 0 0"/>
      <geometry>
        <box size="0.0113 0.0105 0.001"/>
      </geometry>
      <material name="red"/>
    </visual>
    <collision>
      <origin rpy="0 0 0" xyz="0 0 0"/>
      <geometry>
        <box size="0.0183 0.0175 0.001"/>
      </geometry>
    </collision>
  </link>
  
<joint name="sensor_14_04_fixed" type="fixed" dont_collapse="true">
    <origin xyz="-0.0715 0.0384 0.093" rpy="0 0 0" />
    <parent link="trunk" />
    <child link="sensor_14_04" />
    <axis xyz="0 0 0" />
  </joint>


<link name="sensor_14_05">
    <inertial>
      <origin xyz="0 -1.6653E-16 -5E-05" rpy="0 0 0" />
      <mass value="9.18E-07" />
      <inertia ixx="6.8927E-13" ixy="5.5033E-28" ixz="2.4805E-28" iyy="6.8927E-13" iyz="-3.5387E-24" izz="1.377E-12" />
    </inertial>
    <visual>
      <origin rpy="0 0 0" xyz="0 0 0"/>
      <geometry>
        <box size="0.0113 0.0105 0.001"/>
      </geometry>
      <material name="red"/>
    </visual>
    <collision>
      <origin rpy="0 0 0" xyz="0 0 0"/>
      <geometry>
        <box size="0.0183 0.0175 0.001"/>
      </geometry>
    </collision>
  </link>
  
<joint name="sensor_14_05_fixed" type="fixed" dont_collapse="true">
    <origin xyz="-0.0715 0.0256 0.093" rpy="0 0 0" />
    <parent link="trunk" />
    <child link="sensor_14_05" />
    <axis xyz="0 0 0" />
  </joint>


<link name="sensor_14_06">
    <inertial>
      <origin xyz="0 -1.6653E-16 -5E-05" rpy="0 0 0" />
      <mass value="9.18E-07" />
      <inertia ixx="6.8927E-13" ixy="5.5033E-28" ixz="2.4805E-28" iyy="6.8927E-13" iyz="-3.5387E-24" izz="1.377E-12" />
    </inertial>
    <visual>
      <origin rpy="0 0 0" xyz="0 0 0"/>
      <geometry>
        <box size="0.0113 0.0105 0.001"/>
      </geometry>
      <material name="red"/>
    </visual>
    <collision>
      <origin rpy="0 0 0" xyz="0 0 0"/>
      <geometry>
        <box size="0.0183 0.0175 0.001"/>
      </geometry>
    </collision>
  </link>
  
<joint name="sensor_14_06_fixed" type="fixed" dont_collapse="true">
    <origin xyz="-0.0715 0.0128 0.093" rpy="0 0 0" />
    <parent link="trunk" />
    <child link="sensor_14_06" />
    <axis xyz="0 0 0" />
  </joint>


<link name="sensor_14_07">
    <inertial>
      <origin xyz="0 -1.6653E-16 -5E-05" rpy="0 0 0" />
      <mass value="9.18E-07" />
      <inertia ixx="6.8927E-13" ixy="5.5033E-28" ixz="2.4805E-28" iyy="6.8927E-13" iyz="-3.5387E-24" izz="1.377E-12" />
    </inertial>
    <visual>
      <origin rpy="0 0 0" xyz="0 0 0"/>
      <geometry>
        <box size="0.0113 0.0105 0.001"/>
      </geometry>
      <material name="red"/>
    </visual>
    <collision>
      <origin rpy="0 0 0" xyz="0 0 0"/>
      <geometry>
        <box size="0.0183 0.0175 0.001"/>
      </geometry>
    </collision>
  </link>
  
<joint name="sensor_14_07_fixed" type="fixed" dont_collapse="true">
    <origin xyz="-0.0715 -0.0 0.093" rpy="0 0 0" />
    <parent link="trunk" />
    <child link="sensor_14_07" />
    <axis xyz="0 0 0" />
  </joint>


<link name="sensor_14_08">
    <inertial>
      <origin xyz="0 -1.6653E-16 -5E-05" rpy="0 0 0" />
      <mass value="9.18E-07" />
      <inertia ixx="6.8927E-13" ixy="5.5033E-28" ixz="2.4805E-28" iyy="6.8927E-13" iyz="-3.5387E-24" izz="1.377E-12" />
    </inertial>
    <visual>
      <origin rpy="0 0 0" xyz="0 0 0"/>
      <geometry>
        <box size="0.0113 0.0105 0.001"/>
      </geometry>
      <material name="red"/>
    </visual>
    <collision>
      <origin rpy="0 0 0" xyz="0 0 0"/>
      <geometry>
        <box size="0.0183 0.0175 0.001"/>
      </geometry>
    </collision>
  </link>
  
<joint name="sensor_14_08_fixed" type="fixed" dont_collapse="true">
    <origin xyz="-0.0715 -0.0128 0.093" rpy="0 0 0" />
    <parent link="trunk" />
    <child link="sensor_14_08" />
    <axis xyz="0 0 0" />
  </joint>


<link name="sensor_14_09">
    <inertial>
      <origin xyz="0 -1.6653E-16 -5E-05" rpy="0 0 0" />
      <mass value="9.18E-07" />
      <inertia ixx="6.8927E-13" ixy="5.5033E-28" ixz="2.4805E-28" iyy="6.8927E-13" iyz="-3.5387E-24" izz="1.377E-12" />
    </inertial>
    <visual>
      <origin rpy="0 0 0" xyz="0 0 0"/>
      <geometry>
        <box size="0.0113 0.0105 0.001"/>
      </geometry>
      <material name="red"/>
    </visual>
    <collision>
      <origin rpy="0 0 0" xyz="0 0 0"/>
      <geometry>
        <box size="0.0183 0.0175 0.001"/>
      </geometry>
    </collision>
  </link>
  
<joint name="sensor_14_09_fixed" type="fixed" dont_collapse="true">
    <origin xyz="-0.0715 -0.0256 0.093" rpy="0 0 0" />
    <parent link="trunk" />
    <child link="sensor_14_09" />
    <axis xyz="0 0 0" />
  </joint>


<link name="sensor_14_10">
    <inertial>
      <origin xyz="0 -1.6653E-16 -5E-05" rpy="0 0 0" />
      <mass value="9.18E-07" />
      <inertia ixx="6.8927E-13" ixy="5.5033E-28" ixz="2.4805E-28" iyy="6.8927E-13" iyz="-3.5387E-24" izz="1.377E-12" />
    </inertial>
    <visual>
      <origin rpy="0 0 0" xyz="0 0 0"/>
      <geometry>
        <box size="0.0113 0.0105 0.001"/>
      </geometry>
      <material name="red"/>
    </visual>
    <collision>
      <origin rpy="0 0 0" xyz="0 0 0"/>
      <geometry>
        <box size="0.0183 0.0175 0.001"/>
      </geometry>
    </collision>
  </link>
  
<joint name="sensor_14_10_fixed" type="fixed" dont_collapse="true">
    <origin xyz="-0.0715 -0.0384 0.093" rpy="0 0 0" />
    <parent link="trunk" />
    <child link="sensor_14_10" />
    <axis xyz="0 0 0" />
  </joint>


<link name="sensor_14_11">
    <inertial>
      <origin xyz="0 -1.6653E-16 -5E-05" rpy="0 0 0" />
      <mass value="9.18E-07" />
      <inertia ixx="6.8927E-13" ixy="5.5033E-28" ixz="2.4805E-28" iyy="6.8927E-13" iyz="-3.5387E-24" izz="1.377E-12" />
    </inertial>
    <visual>
      <origin rpy="0 0 0" xyz="0 0 0"/>
      <geometry>
        <box size="0.0113 0.0105 0.001"/>
      </geometry>
      <material name="red"/>
    </visual>
    <collision>
      <origin rpy="0 0 0" xyz="0 0 0"/>
      <geometry>
        <box size="0.0183 0.0175 0.001"/>
      </geometry>
    </collision>
  </link>
  
<joint name="sensor_14_11_fixed" type="fixed" dont_collapse="true">
    <origin xyz="-0.0715 -0.0512 0.093" rpy="0 0 0" />
    <parent link="trunk" />
    <child link="sensor_14_11" />
    <axis xyz="0 0 0" />
  </joint>


<link name="sensor_14_12">
    <inertial>
      <origin xyz="0 -1.6653E-16 -5E-05" rpy="0 0 0" />
      <mass value="9.18E-07" />
      <inertia ixx="6.8927E-13" ixy="5.5033E-28" ixz="2.4805E-28" iyy="6.8927E-13" iyz="-3.5387E-24" izz="1.377E-12" />
    </inertial>
    <visual>
      <origin rpy="0 0 0" xyz="0 0 0"/>
      <geometry>
        <box size="0.0113 0.0105 0.001"/>
      </geometry>
      <material name="red"/>
    </visual>
    <collision>
      <origin rpy="0 0 0" xyz="0 0 0"/>
      <geometry>
        <box size="0.0183 0.0175 0.001"/>
      </geometry>
    </collision>
  </link>
  
<joint name="sensor_14_12_fixed" type="fixed" dont_collapse="true">
    <origin xyz="-0.0715 -0.064 0.093" rpy="0 0 0" />
    <parent link="trunk" />
    <child link="sensor_14_12" />
    <axis xyz="0 0 0" />
  </joint>


<link name="sensor_14_13">
    <inertial>
      <origin xyz="0 -1.6653E-16 -5E-05" rpy="0 0 0" />
      <mass value="9.18E-07" />
      <inertia ixx="6.8927E-13" ixy="5.5033E-28" ixz="2.4805E-28" iyy="6.8927E-13" iyz="-3.5387E-24" izz="1.377E-12" />
    </inertial>
    <visual>
      <origin rpy="0 0 0" xyz="0 0 0"/>
      <geometry>
        <box size="0.0113 0.0105 0.001"/>
      </geometry>
      <material name="red"/>
    </visual>
    <collision>
      <origin rpy="0 0 0" xyz="0 0 0"/>
      <geometry>
        <box size="0.0183 0.0175 0.001"/>
      </geometry>
    </collision>
  </link>
  
<joint name="sensor_14_13_fixed" type="fixed" dont_collapse="true">
    <origin xyz="-0.0715 -0.0768 0.093" rpy="0 0 0" />
    <parent link="trunk" />
    <child link="sensor_14_13" />
    <axis xyz="0 0 0" />
  </joint>


<link name="sensor_15_01">
    <inertial>
      <origin xyz="0 -1.6653E-16 -5E-05" rpy="0 0 0" />
      <mass value="9.18E-07" />
      <inertia ixx="6.8927E-13" ixy="5.5033E-28" ixz="2.4805E-28" iyy="6.8927E-13" iyz="-3.5387E-24" izz="1.377E-12" />
    </inertial>
    <visual>
      <origin rpy="0 0 0" xyz="0 0 0"/>
      <geometry>
        <box size="0.0113 0.0105 0.001"/>
      </geometry>
      <material name="red"/>
    </visual>
    <collision>
      <origin rpy="0 0 0" xyz="0 0 0"/>
      <geometry>
        <box size="0.0183 0.0175 0.001"/>
      </geometry>
    </collision>
  </link>
  
<joint name="sensor_15_01_fixed" type="fixed" dont_collapse="true">
    <origin xyz="-0.0858 0.0768 0.093" rpy="0 0 0" />
    <parent link="trunk" />
    <child link="sensor_15_01" />
    <axis xyz="0 0 0" />
  </joint>


<link name="sensor_15_02">
    <inertial>
      <origin xyz="0 -1.6653E-16 -5E-05" rpy="0 0 0" />
      <mass value="9.18E-07" />
      <inertia ixx="6.8927E-13" ixy="5.5033E-28" ixz="2.4805E-28" iyy="6.8927E-13" iyz="-3.5387E-24" izz="1.377E-12" />
    </inertial>
    <visual>
      <origin rpy="0 0 0" xyz="0 0 0"/>
      <geometry>
        <box size="0.0113 0.0105 0.001"/>
      </geometry>
      <material name="red"/>
    </visual>
    <collision>
      <origin rpy="0 0 0" xyz="0 0 0"/>
      <geometry>
        <box size="0.0183 0.0175 0.001"/>
      </geometry>
    </collision>
  </link>
  
<joint name="sensor_15_02_fixed" type="fixed" dont_collapse="true">
    <origin xyz="-0.0858 0.064 0.093" rpy="0 0 0" />
    <parent link="trunk" />
    <child link="sensor_15_02" />
    <axis xyz="0 0 0" />
  </joint>


<link name="sensor_15_03">
    <inertial>
      <origin xyz="0 -1.6653E-16 -5E-05" rpy="0 0 0" />
      <mass value="9.18E-07" />
      <inertia ixx="6.8927E-13" ixy="5.5033E-28" ixz="2.4805E-28" iyy="6.8927E-13" iyz="-3.5387E-24" izz="1.377E-12" />
    </inertial>
    <visual>
      <origin rpy="0 0 0" xyz="0 0 0"/>
      <geometry>
        <box size="0.0113 0.0105 0.001"/>
      </geometry>
      <material name="red"/>
    </visual>
    <collision>
      <origin rpy="0 0 0" xyz="0 0 0"/>
      <geometry>
        <box size="0.0183 0.0175 0.001"/>
      </geometry>
    </collision>
  </link>
  
<joint name="sensor_15_03_fixed" type="fixed" dont_collapse="true">
    <origin xyz="-0.0858 0.0512 0.093" rpy="0 0 0" />
    <parent link="trunk" />
    <child link="sensor_15_03" />
    <axis xyz="0 0 0" />
  </joint>


<link name="sensor_15_04">
    <inertial>
      <origin xyz="0 -1.6653E-16 -5E-05" rpy="0 0 0" />
      <mass value="9.18E-07" />
      <inertia ixx="6.8927E-13" ixy="5.5033E-28" ixz="2.4805E-28" iyy="6.8927E-13" iyz="-3.5387E-24" izz="1.377E-12" />
    </inertial>
    <visual>
      <origin rpy="0 0 0" xyz="0 0 0"/>
      <geometry>
        <box size="0.0113 0.0105 0.001"/>
      </geometry>
      <material name="red"/>
    </visual>
    <collision>
      <origin rpy="0 0 0" xyz="0 0 0"/>
      <geometry>
        <box size="0.0183 0.0175 0.001"/>
      </geometry>
    </collision>
  </link>
  
<joint name="sensor_15_04_fixed" type="fixed" dont_collapse="true">
    <origin xyz="-0.0858 0.0384 0.093" rpy="0 0 0" />
    <parent link="trunk" />
    <child link="sensor_15_04" />
    <axis xyz="0 0 0" />
  </joint>


<link name="sensor_15_05">
    <inertial>
      <origin xyz="0 -1.6653E-16 -5E-05" rpy="0 0 0" />
      <mass value="9.18E-07" />
      <inertia ixx="6.8927E-13" ixy="5.5033E-28" ixz="2.4805E-28" iyy="6.8927E-13" iyz="-3.5387E-24" izz="1.377E-12" />
    </inertial>
    <visual>
      <origin rpy="0 0 0" xyz="0 0 0"/>
      <geometry>
        <box size="0.0113 0.0105 0.001"/>
      </geometry>
      <material name="red"/>
    </visual>
    <collision>
      <origin rpy="0 0 0" xyz="0 0 0"/>
      <geometry>
        <box size="0.0183 0.0175 0.001"/>
      </geometry>
    </collision>
  </link>
  
<joint name="sensor_15_05_fixed" type="fixed" dont_collapse="true">
    <origin xyz="-0.0858 0.0256 0.093" rpy="0 0 0" />
    <parent link="trunk" />
    <child link="sensor_15_05" />
    <axis xyz="0 0 0" />
  </joint>


<link name="sensor_15_06">
    <inertial>
      <origin xyz="0 -1.6653E-16 -5E-05" rpy="0 0 0" />
      <mass value="9.18E-07" />
      <inertia ixx="6.8927E-13" ixy="5.5033E-28" ixz="2.4805E-28" iyy="6.8927E-13" iyz="-3.5387E-24" izz="1.377E-12" />
    </inertial>
    <visual>
      <origin rpy="0 0 0" xyz="0 0 0"/>
      <geometry>
        <box size="0.0113 0.0105 0.001"/>
      </geometry>
      <material name="red"/>
    </visual>
    <collision>
      <origin rpy="0 0 0" xyz="0 0 0"/>
      <geometry>
        <box size="0.0183 0.0175 0.001"/>
      </geometry>
    </collision>
  </link>
  
<joint name="sensor_15_06_fixed" type="fixed" dont_collapse="true">
    <origin xyz="-0.0858 0.0128 0.093" rpy="0 0 0" />
    <parent link="trunk" />
    <child link="sensor_15_06" />
    <axis xyz="0 0 0" />
  </joint>


<link name="sensor_15_07">
    <inertial>
      <origin xyz="0 -1.6653E-16 -5E-05" rpy="0 0 0" />
      <mass value="9.18E-07" />
      <inertia ixx="6.8927E-13" ixy="5.5033E-28" ixz="2.4805E-28" iyy="6.8927E-13" iyz="-3.5387E-24" izz="1.377E-12" />
    </inertial>
    <visual>
      <origin rpy="0 0 0" xyz="0 0 0"/>
      <geometry>
        <box size="0.0113 0.0105 0.001"/>
      </geometry>
      <material name="red"/>
    </visual>
    <collision>
      <origin rpy="0 0 0" xyz="0 0 0"/>
      <geometry>
        <box size="0.0183 0.0175 0.001"/>
      </geometry>
    </collision>
  </link>
  
<joint name="sensor_15_07_fixed" type="fixed" dont_collapse="true">
    <origin xyz="-0.0858 -0.0 0.093" rpy="0 0 0" />
    <parent link="trunk" />
    <child link="sensor_15_07" />
    <axis xyz="0 0 0" />
  </joint>


<link name="sensor_15_08">
    <inertial>
      <origin xyz="0 -1.6653E-16 -5E-05" rpy="0 0 0" />
      <mass value="9.18E-07" />
      <inertia ixx="6.8927E-13" ixy="5.5033E-28" ixz="2.4805E-28" iyy="6.8927E-13" iyz="-3.5387E-24" izz="1.377E-12" />
    </inertial>
    <visual>
      <origin rpy="0 0 0" xyz="0 0 0"/>
      <geometry>
        <box size="0.0113 0.0105 0.001"/>
      </geometry>
      <material name="red"/>
    </visual>
    <collision>
      <origin rpy="0 0 0" xyz="0 0 0"/>
      <geometry>
        <box size="0.0183 0.0175 0.001"/>
      </geometry>
    </collision>
  </link>
  
<joint name="sensor_15_08_fixed" type="fixed" dont_collapse="true">
    <origin xyz="-0.0858 -0.0128 0.093" rpy="0 0 0" />
    <parent link="trunk" />
    <child link="sensor_15_08" />
    <axis xyz="0 0 0" />
  </joint>


<link name="sensor_15_09">
    <inertial>
      <origin xyz="0 -1.6653E-16 -5E-05" rpy="0 0 0" />
      <mass value="9.18E-07" />
      <inertia ixx="6.8927E-13" ixy="5.5033E-28" ixz="2.4805E-28" iyy="6.8927E-13" iyz="-3.5387E-24" izz="1.377E-12" />
    </inertial>
    <visual>
      <origin rpy="0 0 0" xyz="0 0 0"/>
      <geometry>
        <box size="0.0113 0.0105 0.001"/>
      </geometry>
      <material name="red"/>
    </visual>
    <collision>
      <origin rpy="0 0 0" xyz="0 0 0"/>
      <geometry>
        <box size="0.0183 0.0175 0.001"/>
      </geometry>
    </collision>
  </link>
  
<joint name="sensor_15_09_fixed" type="fixed" dont_collapse="true">
    <origin xyz="-0.0858 -0.0256 0.093" rpy="0 0 0" />
    <parent link="trunk" />
    <child link="sensor_15_09" />
    <axis xyz="0 0 0" />
  </joint>


<link name="sensor_15_10">
    <inertial>
      <origin xyz="0 -1.6653E-16 -5E-05" rpy="0 0 0" />
      <mass value="9.18E-07" />
      <inertia ixx="6.8927E-13" ixy="5.5033E-28" ixz="2.4805E-28" iyy="6.8927E-13" iyz="-3.5387E-24" izz="1.377E-12" />
    </inertial>
    <visual>
      <origin rpy="0 0 0" xyz="0 0 0"/>
      <geometry>
        <box size="0.0113 0.0105 0.001"/>
      </geometry>
      <material name="red"/>
    </visual>
    <collision>
      <origin rpy="0 0 0" xyz="0 0 0"/>
      <geometry>
        <box size="0.0183 0.0175 0.001"/>
      </geometry>
    </collision>
  </link>
  
<joint name="sensor_15_10_fixed" type="fixed" dont_collapse="true">
    <origin xyz="-0.0858 -0.0384 0.093" rpy="0 0 0" />
    <parent link="trunk" />
    <child link="sensor_15_10" />
    <axis xyz="0 0 0" />
  </joint>


<link name="sensor_15_11">
    <inertial>
      <origin xyz="0 -1.6653E-16 -5E-05" rpy="0 0 0" />
      <mass value="9.18E-07" />
      <inertia ixx="6.8927E-13" ixy="5.5033E-28" ixz="2.4805E-28" iyy="6.8927E-13" iyz="-3.5387E-24" izz="1.377E-12" />
    </inertial>
    <visual>
      <origin rpy="0 0 0" xyz="0 0 0"/>
      <geometry>
        <box size="0.0113 0.0105 0.001"/>
      </geometry>
      <material name="red"/>
    </visual>
    <collision>
      <origin rpy="0 0 0" xyz="0 0 0"/>
      <geometry>
        <box size="0.0183 0.0175 0.001"/>
      </geometry>
    </collision>
  </link>
  
<joint name="sensor_15_11_fixed" type="fixed" dont_collapse="true">
    <origin xyz="-0.0858 -0.0512 0.093" rpy="0 0 0" />
    <parent link="trunk" />
    <child link="sensor_15_11" />
    <axis xyz="0 0 0" />
  </joint>


<link name="sensor_15_12">
    <inertial>
      <origin xyz="0 -1.6653E-16 -5E-05" rpy="0 0 0" />
      <mass value="9.18E-07" />
      <inertia ixx="6.8927E-13" ixy="5.5033E-28" ixz="2.4805E-28" iyy="6.8927E-13" iyz="-3.5387E-24" izz="1.377E-12" />
    </inertial>
    <visual>
      <origin rpy="0 0 0" xyz="0 0 0"/>
      <geometry>
        <box size="0.0113 0.0105 0.001"/>
      </geometry>
      <material name="red"/>
    </visual>
    <collision>
      <origin rpy="0 0 0" xyz="0 0 0"/>
      <geometry>
        <box size="0.0183 0.0175 0.001"/>
      </geometry>
    </collision>
  </link>
  
<joint name="sensor_15_12_fixed" type="fixed" dont_collapse="true">
    <origin xyz="-0.0858 -0.064 0.093" rpy="0 0 0" />
    <parent link="trunk" />
    <child link="sensor_15_12" />
    <axis xyz="0 0 0" />
  </joint>


<link name="sensor_15_13">
    <inertial>
      <origin xyz="0 -1.6653E-16 -5E-05" rpy="0 0 0" />
      <mass value="9.18E-07" />
      <inertia ixx="6.8927E-13" ixy="5.5033E-28" ixz="2.4805E-28" iyy="6.8927E-13" iyz="-3.5387E-24" izz="1.377E-12" />
    </inertial>
    <visual>
      <origin rpy="0 0 0" xyz="0 0 0"/>
      <geometry>
        <box size="0.0113 0.0105 0.001"/>
      </geometry>
      <material name="red"/>
    </visual>
    <collision>
      <origin rpy="0 0 0" xyz="0 0 0"/>
      <geometry>
        <box size="0.0183 0.0175 0.001"/>
      </geometry>
    </collision>
  </link>
  
<joint name="sensor_15_13_fixed" type="fixed" dont_collapse="true">
    <origin xyz="-0.0858 -0.0768 0.093" rpy="0 0 0" />
    <parent link="trunk" />
    <child link="sensor_15_13" />
    <axis xyz="0 0 0" />
  </joint>


<link name="sensor_16_01">
    <inertial>
      <origin xyz="0 -1.6653E-16 -5E-05" rpy="0 0 0" />
      <mass value="9.18E-07" />
      <inertia ixx="6.8927E-13" ixy="5.5033E-28" ixz="2.4805E-28" iyy="6.8927E-13" iyz="-3.5387E-24" izz="1.377E-12" />
    </inertial>
    <visual>
      <origin rpy="0 0 0" xyz="0 0 0"/>
      <geometry>
        <box size="0.0113 0.0105 0.001"/>
      </geometry>
      <material name="red"/>
    </visual>
    <collision>
      <origin rpy="0 0 0" xyz="0 0 0"/>
      <geometry>
        <box size="0.0183 0.0175 0.001"/>
      </geometry>
    </collision>
  </link>
  
<joint name="sensor_16_01_fixed" type="fixed" dont_collapse="true">
    <origin xyz="-0.1001 0.0768 0.093" rpy="0 0 0" />
    <parent link="trunk" />
    <child link="sensor_16_01" />
    <axis xyz="0 0 0" />
  </joint>


<link name="sensor_16_02">
    <inertial>
      <origin xyz="0 -1.6653E-16 -5E-05" rpy="0 0 0" />
      <mass value="9.18E-07" />
      <inertia ixx="6.8927E-13" ixy="5.5033E-28" ixz="2.4805E-28" iyy="6.8927E-13" iyz="-3.5387E-24" izz="1.377E-12" />
    </inertial>
    <visual>
      <origin rpy="0 0 0" xyz="0 0 0"/>
      <geometry>
        <box size="0.0113 0.0105 0.001"/>
      </geometry>
      <material name="red"/>
    </visual>
    <collision>
      <origin rpy="0 0 0" xyz="0 0 0"/>
      <geometry>
        <box size="0.0183 0.0175 0.001"/>
      </geometry>
    </collision>
  </link>
  
<joint name="sensor_16_02_fixed" type="fixed" dont_collapse="true">
    <origin xyz="-0.1001 0.064 0.093" rpy="0 0 0" />
    <parent link="trunk" />
    <child link="sensor_16_02" />
    <axis xyz="0 0 0" />
  </joint>


<link name="sensor_16_03">
    <inertial>
      <origin xyz="0 -1.6653E-16 -5E-05" rpy="0 0 0" />
      <mass value="9.18E-07" />
      <inertia ixx="6.8927E-13" ixy="5.5033E-28" ixz="2.4805E-28" iyy="6.8927E-13" iyz="-3.5387E-24" izz="1.377E-12" />
    </inertial>
    <visual>
      <origin rpy="0 0 0" xyz="0 0 0"/>
      <geometry>
        <box size="0.0113 0.0105 0.001"/>
      </geometry>
      <material name="red"/>
    </visual>
    <collision>
      <origin rpy="0 0 0" xyz="0 0 0"/>
      <geometry>
        <box size="0.0183 0.0175 0.001"/>
      </geometry>
    </collision>
  </link>
  
<joint name="sensor_16_03_fixed" type="fixed" dont_collapse="true">
    <origin xyz="-0.1001 0.0512 0.093" rpy="0 0 0" />
    <parent link="trunk" />
    <child link="sensor_16_03" />
    <axis xyz="0 0 0" />
  </joint>


<link name="sensor_16_04">
    <inertial>
      <origin xyz="0 -1.6653E-16 -5E-05" rpy="0 0 0" />
      <mass value="9.18E-07" />
      <inertia ixx="6.8927E-13" ixy="5.5033E-28" ixz="2.4805E-28" iyy="6.8927E-13" iyz="-3.5387E-24" izz="1.377E-12" />
    </inertial>
    <visual>
      <origin rpy="0 0 0" xyz="0 0 0"/>
      <geometry>
        <box size="0.0113 0.0105 0.001"/>
      </geometry>
      <material name="red"/>
    </visual>
    <collision>
      <origin rpy="0 0 0" xyz="0 0 0"/>
      <geometry>
        <box size="0.0183 0.0175 0.001"/>
      </geometry>
    </collision>
  </link>
  
<joint name="sensor_16_04_fixed" type="fixed" dont_collapse="true">
    <origin xyz="-0.1001 0.0384 0.093" rpy="0 0 0" />
    <parent link="trunk" />
    <child link="sensor_16_04" />
    <axis xyz="0 0 0" />
  </joint>


<link name="sensor_16_05">
    <inertial>
      <origin xyz="0 -1.6653E-16 -5E-05" rpy="0 0 0" />
      <mass value="9.18E-07" />
      <inertia ixx="6.8927E-13" ixy="5.5033E-28" ixz="2.4805E-28" iyy="6.8927E-13" iyz="-3.5387E-24" izz="1.377E-12" />
    </inertial>
    <visual>
      <origin rpy="0 0 0" xyz="0 0 0"/>
      <geometry>
        <box size="0.0113 0.0105 0.001"/>
      </geometry>
      <material name="red"/>
    </visual>
    <collision>
      <origin rpy="0 0 0" xyz="0 0 0"/>
      <geometry>
        <box size="0.0183 0.0175 0.001"/>
      </geometry>
    </collision>
  </link>
  
<joint name="sensor_16_05_fixed" type="fixed" dont_collapse="true">
    <origin xyz="-0.1001 0.0256 0.093" rpy="0 0 0" />
    <parent link="trunk" />
    <child link="sensor_16_05" />
    <axis xyz="0 0 0" />
  </joint>


<link name="sensor_16_06">
    <inertial>
      <origin xyz="0 -1.6653E-16 -5E-05" rpy="0 0 0" />
      <mass value="9.18E-07" />
      <inertia ixx="6.8927E-13" ixy="5.5033E-28" ixz="2.4805E-28" iyy="6.8927E-13" iyz="-3.5387E-24" izz="1.377E-12" />
    </inertial>
    <visual>
      <origin rpy="0 0 0" xyz="0 0 0"/>
      <geometry>
        <box size="0.0113 0.0105 0.001"/>
      </geometry>
      <material name="red"/>
    </visual>
    <collision>
      <origin rpy="0 0 0" xyz="0 0 0"/>
      <geometry>
        <box size="0.0183 0.0175 0.001"/>
      </geometry>
    </collision>
  </link>
  
<joint name="sensor_16_06_fixed" type="fixed" dont_collapse="true">
    <origin xyz="-0.1001 0.0128 0.093" rpy="0 0 0" />
    <parent link="trunk" />
    <child link="sensor_16_06" />
    <axis xyz="0 0 0" />
  </joint>


<link name="sensor_16_07">
    <inertial>
      <origin xyz="0 -1.6653E-16 -5E-05" rpy="0 0 0" />
      <mass value="9.18E-07" />
      <inertia ixx="6.8927E-13" ixy="5.5033E-28" ixz="2.4805E-28" iyy="6.8927E-13" iyz="-3.5387E-24" izz="1.377E-12" />
    </inertial>
    <visual>
      <origin rpy="0 0 0" xyz="0 0 0"/>
      <geometry>
        <box size="0.0113 0.0105 0.001"/>
      </geometry>
      <material name="red"/>
    </visual>
    <collision>
      <origin rpy="0 0 0" xyz="0 0 0"/>
      <geometry>
        <box size="0.0183 0.0175 0.001"/>
      </geometry>
    </collision>
  </link>
  
<joint name="sensor_16_07_fixed" type="fixed" dont_collapse="true">
    <origin xyz="-0.1001 -0.0 0.093" rpy="0 0 0" />
    <parent link="trunk" />
    <child link="sensor_16_07" />
    <axis xyz="0 0 0" />
  </joint>


<link name="sensor_16_08">
    <inertial>
      <origin xyz="0 -1.6653E-16 -5E-05" rpy="0 0 0" />
      <mass value="9.18E-07" />
      <inertia ixx="6.8927E-13" ixy="5.5033E-28" ixz="2.4805E-28" iyy="6.8927E-13" iyz="-3.5387E-24" izz="1.377E-12" />
    </inertial>
    <visual>
      <origin rpy="0 0 0" xyz="0 0 0"/>
      <geometry>
        <box size="0.0113 0.0105 0.001"/>
      </geometry>
      <material name="red"/>
    </visual>
    <collision>
      <origin rpy="0 0 0" xyz="0 0 0"/>
      <geometry>
        <box size="0.0183 0.0175 0.001"/>
      </geometry>
    </collision>
  </link>
  
<joint name="sensor_16_08_fixed" type="fixed" dont_collapse="true">
    <origin xyz="-0.1001 -0.0128 0.093" rpy="0 0 0" />
    <parent link="trunk" />
    <child link="sensor_16_08" />
    <axis xyz="0 0 0" />
  </joint>


<link name="sensor_16_09">
    <inertial>
      <origin xyz="0 -1.6653E-16 -5E-05" rpy="0 0 0" />
      <mass value="9.18E-07" />
      <inertia ixx="6.8927E-13" ixy="5.5033E-28" ixz="2.4805E-28" iyy="6.8927E-13" iyz="-3.5387E-24" izz="1.377E-12" />
    </inertial>
    <visual>
      <origin rpy="0 0 0" xyz="0 0 0"/>
      <geometry>
        <box size="0.0113 0.0105 0.001"/>
      </geometry>
      <material name="red"/>
    </visual>
    <collision>
      <origin rpy="0 0 0" xyz="0 0 0"/>
      <geometry>
        <box size="0.0183 0.0175 0.001"/>
      </geometry>
    </collision>
  </link>
  
<joint name="sensor_16_09_fixed" type="fixed" dont_collapse="true">
    <origin xyz="-0.1001 -0.0256 0.093" rpy="0 0 0" />
    <parent link="trunk" />
    <child link="sensor_16_09" />
    <axis xyz="0 0 0" />
  </joint>


<link name="sensor_16_10">
    <inertial>
      <origin xyz="0 -1.6653E-16 -5E-05" rpy="0 0 0" />
      <mass value="9.18E-07" />
      <inertia ixx="6.8927E-13" ixy="5.5033E-28" ixz="2.4805E-28" iyy="6.8927E-13" iyz="-3.5387E-24" izz="1.377E-12" />
    </inertial>
    <visual>
      <origin rpy="0 0 0" xyz="0 0 0"/>
      <geometry>
        <box size="0.0113 0.0105 0.001"/>
      </geometry>
      <material name="red"/>
    </visual>
    <collision>
      <origin rpy="0 0 0" xyz="0 0 0"/>
      <geometry>
        <box size="0.0183 0.0175 0.001"/>
      </geometry>
    </collision>
  </link>
  
<joint name="sensor_16_10_fixed" type="fixed" dont_collapse="true">
    <origin xyz="-0.1001 -0.0384 0.093" rpy="0 0 0" />
    <parent link="trunk" />
    <child link="sensor_16_10" />
    <axis xyz="0 0 0" />
  </joint>


<link name="sensor_16_11">
    <inertial>
      <origin xyz="0 -1.6653E-16 -5E-05" rpy="0 0 0" />
      <mass value="9.18E-07" />
      <inertia ixx="6.8927E-13" ixy="5.5033E-28" ixz="2.4805E-28" iyy="6.8927E-13" iyz="-3.5387E-24" izz="1.377E-12" />
    </inertial>
    <visual>
      <origin rpy="0 0 0" xyz="0 0 0"/>
      <geometry>
        <box size="0.0113 0.0105 0.001"/>
      </geometry>
      <material name="red"/>
    </visual>
    <collision>
      <origin rpy="0 0 0" xyz="0 0 0"/>
      <geometry>
        <box size="0.0183 0.0175 0.001"/>
      </geometry>
    </collision>
  </link>
  
<joint name="sensor_16_11_fixed" type="fixed" dont_collapse="true">
    <origin xyz="-0.1001 -0.0512 0.093" rpy="0 0 0" />
    <parent link="trunk" />
    <child link="sensor_16_11" />
    <axis xyz="0 0 0" />
  </joint>


<link name="sensor_16_12">
    <inertial>
      <origin xyz="0 -1.6653E-16 -5E-05" rpy="0 0 0" />
      <mass value="9.18E-07" />
      <inertia ixx="6.8927E-13" ixy="5.5033E-28" ixz="2.4805E-28" iyy="6.8927E-13" iyz="-3.5387E-24" izz="1.377E-12" />
    </inertial>
    <visual>
      <origin rpy="0 0 0" xyz="0 0 0"/>
      <geometry>
        <box size="0.0113 0.0105 0.001"/>
      </geometry>
      <material name="red"/>
    </visual>
    <collision>
      <origin rpy="0 0 0" xyz="0 0 0"/>
      <geometry>
        <box size="0.0183 0.0175 0.001"/>
      </geometry>
    </collision>
  </link>
  
<joint name="sensor_16_12_fixed" type="fixed" dont_collapse="true">
    <origin xyz="-0.1001 -0.064 0.093" rpy="0 0 0" />
    <parent link="trunk" />
    <child link="sensor_16_12" />
    <axis xyz="0 0 0" />
  </joint>


<link name="sensor_16_13">
    <inertial>
      <origin xyz="0 -1.6653E-16 -5E-05" rpy="0 0 0" />
      <mass value="9.18E-07" />
      <inertia ixx="6.8927E-13" ixy="5.5033E-28" ixz="2.4805E-28" iyy="6.8927E-13" iyz="-3.5387E-24" izz="1.377E-12" />
    </inertial>
    <visual>
      <origin rpy="0 0 0" xyz="0 0 0"/>
      <geometry>
        <box size="0.0113 0.0105 0.001"/>
      </geometry>
      <material name="red"/>
    </visual>
    <collision>
      <origin rpy="0 0 0" xyz="0 0 0"/>
      <geometry>
        <box size="0.0183 0.0175 0.001"/>
      </geometry>
    </collision>
  </link>
  
<joint name="sensor_16_13_fixed" type="fixed" dont_collapse="true">
    <origin xyz="-0.1001 -0.0768 0.093" rpy="0 0 0" />
    <parent link="trunk" />
    <child link="sensor_16_13" />
    <axis xyz="0 0 0" />
  </joint>


<link name="sensor_17_01">
    <inertial>
      <origin xyz="0 -1.6653E-16 -5E-05" rpy="0 0 0" />
      <mass value="9.18E-07" />
      <inertia ixx="6.8927E-13" ixy="5.5033E-28" ixz="2.4805E-28" iyy="6.8927E-13" iyz="-3.5387E-24" izz="1.377E-12" />
    </inertial>
    <visual>
      <origin rpy="0 0 0" xyz="0 0 0"/>
      <geometry>
        <box size="0.0113 0.0105 0.001"/>
      </geometry>
      <material name="red"/>
    </visual>
    <collision>
      <origin rpy="0 0 0" xyz="0 0 0"/>
      <geometry>
        <box size="0.0183 0.0175 0.001"/>
      </geometry>
    </collision>
  </link>
  
<joint name="sensor_17_01_fixed" type="fixed" dont_collapse="true">
    <origin xyz="-0.1144 0.0768 0.093" rpy="0 0 0" />
    <parent link="trunk" />
    <child link="sensor_17_01" />
    <axis xyz="0 0 0" />
  </joint>


<link name="sensor_17_02">
    <inertial>
      <origin xyz="0 -1.6653E-16 -5E-05" rpy="0 0 0" />
      <mass value="9.18E-07" />
      <inertia ixx="6.8927E-13" ixy="5.5033E-28" ixz="2.4805E-28" iyy="6.8927E-13" iyz="-3.5387E-24" izz="1.377E-12" />
    </inertial>
    <visual>
      <origin rpy="0 0 0" xyz="0 0 0"/>
      <geometry>
        <box size="0.0113 0.0105 0.001"/>
      </geometry>
      <material name="red"/>
    </visual>
    <collision>
      <origin rpy="0 0 0" xyz="0 0 0"/>
      <geometry>
        <box size="0.0183 0.0175 0.001"/>
      </geometry>
    </collision>
  </link>
  
<joint name="sensor_17_02_fixed" type="fixed" dont_collapse="true">
    <origin xyz="-0.1144 0.064 0.093" rpy="0 0 0" />
    <parent link="trunk" />
    <child link="sensor_17_02" />
    <axis xyz="0 0 0" />
  </joint>


<link name="sensor_17_03">
    <inertial>
      <origin xyz="0 -1.6653E-16 -5E-05" rpy="0 0 0" />
      <mass value="9.18E-07" />
      <inertia ixx="6.8927E-13" ixy="5.5033E-28" ixz="2.4805E-28" iyy="6.8927E-13" iyz="-3.5387E-24" izz="1.377E-12" />
    </inertial>
    <visual>
      <origin rpy="0 0 0" xyz="0 0 0"/>
      <geometry>
        <box size="0.0113 0.0105 0.001"/>
      </geometry>
      <material name="red"/>
    </visual>
    <collision>
      <origin rpy="0 0 0" xyz="0 0 0"/>
      <geometry>
        <box size="0.0183 0.0175 0.001"/>
      </geometry>
    </collision>
  </link>
  
<joint name="sensor_17_03_fixed" type="fixed" dont_collapse="true">
    <origin xyz="-0.1144 0.0512 0.093" rpy="0 0 0" />
    <parent link="trunk" />
    <child link="sensor_17_03" />
    <axis xyz="0 0 0" />
  </joint>


<link name="sensor_17_04">
    <inertial>
      <origin xyz="0 -1.6653E-16 -5E-05" rpy="0 0 0" />
      <mass value="9.18E-07" />
      <inertia ixx="6.8927E-13" ixy="5.5033E-28" ixz="2.4805E-28" iyy="6.8927E-13" iyz="-3.5387E-24" izz="1.377E-12" />
    </inertial>
    <visual>
      <origin rpy="0 0 0" xyz="0 0 0"/>
      <geometry>
        <box size="0.0113 0.0105 0.001"/>
      </geometry>
      <material name="red"/>
    </visual>
    <collision>
      <origin rpy="0 0 0" xyz="0 0 0"/>
      <geometry>
        <box size="0.0183 0.0175 0.001"/>
      </geometry>
    </collision>
  </link>
  
<joint name="sensor_17_04_fixed" type="fixed" dont_collapse="true">
    <origin xyz="-0.1144 0.0384 0.093" rpy="0 0 0" />
    <parent link="trunk" />
    <child link="sensor_17_04" />
    <axis xyz="0 0 0" />
  </joint>


<link name="sensor_17_05">
    <inertial>
      <origin xyz="0 -1.6653E-16 -5E-05" rpy="0 0 0" />
      <mass value="9.18E-07" />
      <inertia ixx="6.8927E-13" ixy="5.5033E-28" ixz="2.4805E-28" iyy="6.8927E-13" iyz="-3.5387E-24" izz="1.377E-12" />
    </inertial>
    <visual>
      <origin rpy="0 0 0" xyz="0 0 0"/>
      <geometry>
        <box size="0.0113 0.0105 0.001"/>
      </geometry>
      <material name="red"/>
    </visual>
    <collision>
      <origin rpy="0 0 0" xyz="0 0 0"/>
      <geometry>
        <box size="0.0183 0.0175 0.001"/>
      </geometry>
    </collision>
  </link>
  
<joint name="sensor_17_05_fixed" type="fixed" dont_collapse="true">
    <origin xyz="-0.1144 0.0256 0.093" rpy="0 0 0" />
    <parent link="trunk" />
    <child link="sensor_17_05" />
    <axis xyz="0 0 0" />
  </joint>


<link name="sensor_17_06">
    <inertial>
      <origin xyz="0 -1.6653E-16 -5E-05" rpy="0 0 0" />
      <mass value="9.18E-07" />
      <inertia ixx="6.8927E-13" ixy="5.5033E-28" ixz="2.4805E-28" iyy="6.8927E-13" iyz="-3.5387E-24" izz="1.377E-12" />
    </inertial>
    <visual>
      <origin rpy="0 0 0" xyz="0 0 0"/>
      <geometry>
        <box size="0.0113 0.0105 0.001"/>
      </geometry>
      <material name="red"/>
    </visual>
    <collision>
      <origin rpy="0 0 0" xyz="0 0 0"/>
      <geometry>
        <box size="0.0183 0.0175 0.001"/>
      </geometry>
    </collision>
  </link>
  
<joint name="sensor_17_06_fixed" type="fixed" dont_collapse="true">
    <origin xyz="-0.1144 0.0128 0.093" rpy="0 0 0" />
    <parent link="trunk" />
    <child link="sensor_17_06" />
    <axis xyz="0 0 0" />
  </joint>


<link name="sensor_17_07">
    <inertial>
      <origin xyz="0 -1.6653E-16 -5E-05" rpy="0 0 0" />
      <mass value="9.18E-07" />
      <inertia ixx="6.8927E-13" ixy="5.5033E-28" ixz="2.4805E-28" iyy="6.8927E-13" iyz="-3.5387E-24" izz="1.377E-12" />
    </inertial>
    <visual>
      <origin rpy="0 0 0" xyz="0 0 0"/>
      <geometry>
        <box size="0.0113 0.0105 0.001"/>
      </geometry>
      <material name="red"/>
    </visual>
    <collision>
      <origin rpy="0 0 0" xyz="0 0 0"/>
      <geometry>
        <box size="0.0183 0.0175 0.001"/>
      </geometry>
    </collision>
  </link>
  
<joint name="sensor_17_07_fixed" type="fixed" dont_collapse="true">
    <origin xyz="-0.1144 -0.0 0.093" rpy="0 0 0" />
    <parent link="trunk" />
    <child link="sensor_17_07" />
    <axis xyz="0 0 0" />
  </joint>


<link name="sensor_17_08">
    <inertial>
      <origin xyz="0 -1.6653E-16 -5E-05" rpy="0 0 0" />
      <mass value="9.18E-07" />
      <inertia ixx="6.8927E-13" ixy="5.5033E-28" ixz="2.4805E-28" iyy="6.8927E-13" iyz="-3.5387E-24" izz="1.377E-12" />
    </inertial>
    <visual>
      <origin rpy="0 0 0" xyz="0 0 0"/>
      <geometry>
        <box size="0.0113 0.0105 0.001"/>
      </geometry>
      <material name="red"/>
    </visual>
    <collision>
      <origin rpy="0 0 0" xyz="0 0 0"/>
      <geometry>
        <box size="0.0183 0.0175 0.001"/>
      </geometry>
    </collision>
  </link>
  
<joint name="sensor_17_08_fixed" type="fixed" dont_collapse="true">
    <origin xyz="-0.1144 -0.0128 0.093" rpy="0 0 0" />
    <parent link="trunk" />
    <child link="sensor_17_08" />
    <axis xyz="0 0 0" />
  </joint>


<link name="sensor_17_09">
    <inertial>
      <origin xyz="0 -1.6653E-16 -5E-05" rpy="0 0 0" />
      <mass value="9.18E-07" />
      <inertia ixx="6.8927E-13" ixy="5.5033E-28" ixz="2.4805E-28" iyy="6.8927E-13" iyz="-3.5387E-24" izz="1.377E-12" />
    </inertial>
    <visual>
      <origin rpy="0 0 0" xyz="0 0 0"/>
      <geometry>
        <box size="0.0113 0.0105 0.001"/>
      </geometry>
      <material name="red"/>
    </visual>
    <collision>
      <origin rpy="0 0 0" xyz="0 0 0"/>
      <geometry>
        <box size="0.0183 0.0175 0.001"/>
      </geometry>
    </collision>
  </link>
  
<joint name="sensor_17_09_fixed" type="fixed" dont_collapse="true">
    <origin xyz="-0.1144 -0.0256 0.093" rpy="0 0 0" />
    <parent link="trunk" />
    <child link="sensor_17_09" />
    <axis xyz="0 0 0" />
  </joint>


<link name="sensor_17_10">
    <inertial>
      <origin xyz="0 -1.6653E-16 -5E-05" rpy="0 0 0" />
      <mass value="9.18E-07" />
      <inertia ixx="6.8927E-13" ixy="5.5033E-28" ixz="2.4805E-28" iyy="6.8927E-13" iyz="-3.5387E-24" izz="1.377E-12" />
    </inertial>
    <visual>
      <origin rpy="0 0 0" xyz="0 0 0"/>
      <geometry>
        <box size="0.0113 0.0105 0.001"/>
      </geometry>
      <material name="red"/>
    </visual>
    <collision>
      <origin rpy="0 0 0" xyz="0 0 0"/>
      <geometry>
        <box size="0.0183 0.0175 0.001"/>
      </geometry>
    </collision>
  </link>
  
<joint name="sensor_17_10_fixed" type="fixed" dont_collapse="true">
    <origin xyz="-0.1144 -0.0384 0.093" rpy="0 0 0" />
    <parent link="trunk" />
    <child link="sensor_17_10" />
    <axis xyz="0 0 0" />
  </joint>


<link name="sensor_17_11">
    <inertial>
      <origin xyz="0 -1.6653E-16 -5E-05" rpy="0 0 0" />
      <mass value="9.18E-07" />
      <inertia ixx="6.8927E-13" ixy="5.5033E-28" ixz="2.4805E-28" iyy="6.8927E-13" iyz="-3.5387E-24" izz="1.377E-12" />
    </inertial>
    <visual>
      <origin rpy="0 0 0" xyz="0 0 0"/>
      <geometry>
        <box size="0.0113 0.0105 0.001"/>
      </geometry>
      <material name="red"/>
    </visual>
    <collision>
      <origin rpy="0 0 0" xyz="0 0 0"/>
      <geometry>
        <box size="0.0183 0.0175 0.001"/>
      </geometry>
    </collision>
  </link>
  
<joint name="sensor_17_11_fixed" type="fixed" dont_collapse="true">
    <origin xyz="-0.1144 -0.0512 0.093" rpy="0 0 0" />
    <parent link="trunk" />
    <child link="sensor_17_11" />
    <axis xyz="0 0 0" />
  </joint>


<link name="sensor_17_12">
    <inertial>
      <origin xyz="0 -1.6653E-16 -5E-05" rpy="0 0 0" />
      <mass value="9.18E-07" />
      <inertia ixx="6.8927E-13" ixy="5.5033E-28" ixz="2.4805E-28" iyy="6.8927E-13" iyz="-3.5387E-24" izz="1.377E-12" />
    </inertial>
    <visual>
      <origin rpy="0 0 0" xyz="0 0 0"/>
      <geometry>
        <box size="0.0113 0.0105 0.001"/>
      </geometry>
      <material name="red"/>
    </visual>
    <collision>
      <origin rpy="0 0 0" xyz="0 0 0"/>
      <geometry>
        <box size="0.0183 0.0175 0.001"/>
      </geometry>
    </collision>
  </link>
  
<joint name="sensor_17_12_fixed" type="fixed" dont_collapse="true">
    <origin xyz="-0.1144 -0.064 0.093" rpy="0 0 0" />
    <parent link="trunk" />
    <child link="sensor_17_12" />
    <axis xyz="0 0 0" />
  </joint>


<link name="sensor_17_13">
    <inertial>
      <origin xyz="0 -1.6653E-16 -5E-05" rpy="0 0 0" />
      <mass value="9.18E-07" />
      <inertia ixx="6.8927E-13" ixy="5.5033E-28" ixz="2.4805E-28" iyy="6.8927E-13" iyz="-3.5387E-24" izz="1.377E-12" />
    </inertial>
    <visual>
      <origin rpy="0 0 0" xyz="0 0 0"/>
      <geometry>
        <box size="0.0113 0.0105 0.001"/>
      </geometry>
      <material name="red"/>
    </visual>
    <collision>
      <origin rpy="0 0 0" xyz="0 0 0"/>
      <geometry>
        <box size="0.0183 0.0175 0.001"/>
      </geometry>
    </collision>
  </link>
  
<joint name="sensor_17_13_fixed" type="fixed" dont_collapse="true">
    <origin xyz="-0.1144 -0.0768 0.093" rpy="0 0 0" />
    <parent link="trunk" />
    <child link="sensor_17_13" />
    <axis xyz="0 0 0" />
  </joint>


</robot>
